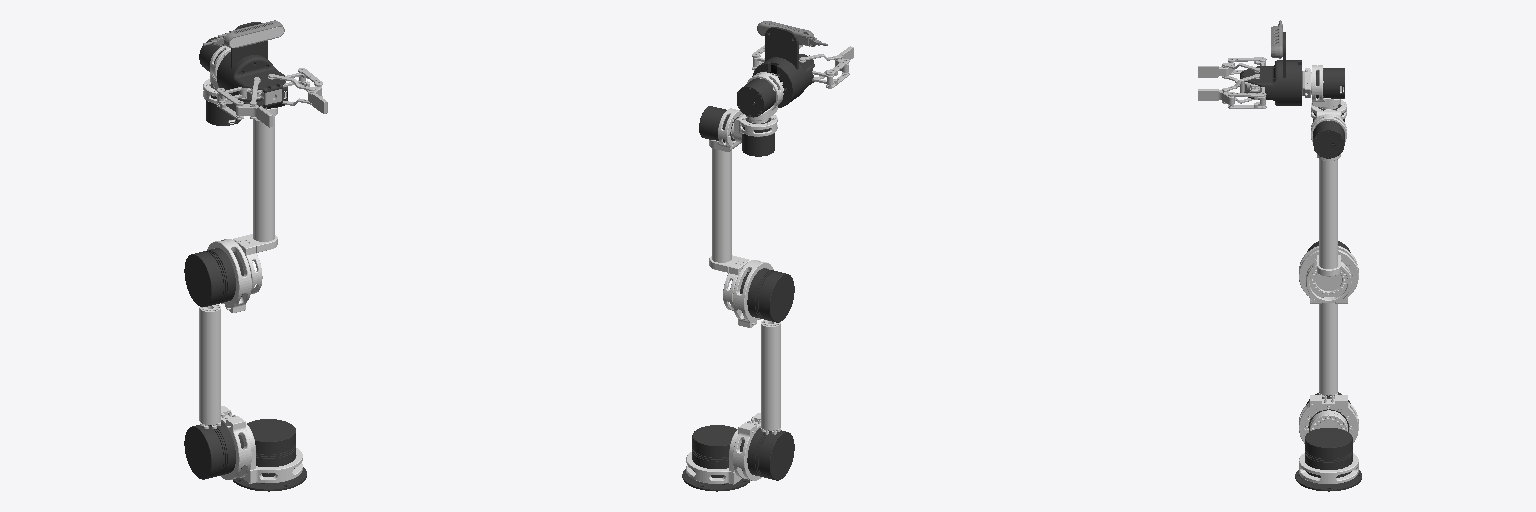
--- Facts derived from the render (not from the file) ---
Views: 3 orthographic renders of the robot side by side, from view 1: azimuth 30°, elevation 25°; view 2: azimuth 150°, elevation 25°; view 3: azimuth 270°, elevation 25°.
Robot: hephaestus_description — 7 links, 6 joints (6 revolute); root link link1; default pose: every joint at zero.
Links seen in each view (by area): view 1: link3, gripper, link4, link2, link5, link6, link1; view 2: link3, link4, gripper, link2, link6, link5; view 3: link3, gripper, link4, link2, link6, link1.
Boxes of the visible links, x1,y1,x2,y2 form: link3: [184, 239, 251, 479]; gripper: [203, 20, 327, 127]; link4: [233, 81, 287, 293]; link2: [242, 419, 302, 483]; link5: [203, 79, 240, 125]; link6: [199, 37, 230, 88]; link1: [233, 467, 306, 491]; link3: [733, 260, 794, 480]; link4: [699, 106, 749, 310]; gripper: [752, 21, 853, 107]; link2: [686, 425, 740, 484]; link6: [737, 72, 783, 122]; link5: [732, 114, 777, 156]; link3: [1299, 241, 1358, 443]; gripper: [1198, 20, 1311, 108]; link4: [1306, 114, 1351, 302]; link2: [1299, 413, 1358, 483]; link6: [1312, 65, 1344, 108]; link1: [1295, 470, 1361, 491].
Bounding box of the posed robot: 0.2129 × 0.2749 × 0.7786 m (x, y, z).
349 mesh visuals loaded from 108 distinct referenced files (107 binary STL); not drawn: 2 (reference not matched to a file when rendering).

The robot description file, URDF, robot "hephaestus_description":
<robot name="hephaestus_description">
<link name="link1">
<visual>
<origin xyz="1.3792584575397063074e-18 -1.7516230804060213387e-46 1.4171762190870562479e-48" rpy="2.8500753929115218458e-28 2.9400200094311407188e-31 -5.36636722058665712e-46" />
<geometry>
<mesh filename="package://hephaestus_description/meshes/base_link.stl"/>
</geometry>
<material name="base_link_material">
<color rgba="0.30196078431372547213 0.30196078431372547213 0.30196078431372547213 1.0"/>
</material>
</visual>
<collision>
<origin xyz="1.3792584575397063074e-18 -1.7516230804060213387e-46 1.4171762190870562479e-48" rpy="2.8500753929115218458e-28 2.9400200094311407188e-31 -5.36636722058665712e-46" />
<geometry>
<mesh filename="package://hephaestus_description/meshes/base_link.stl"/>
</geometry>
</collision>
<inertial>
<origin xyz="3.7446553870126242385e-18 4.3234757021271262883e-18 0.0015000000000000000312" rpy="0 0 0"/>
<mass value="0.037828410371921313005" />
<inertia ixx="3.4848197028295435087e-05" ixy="-1.3745190126530676617e-35"  ixz="6.0814558269547975846e-35" iyy="3.4848197028295421534e-05" iyz="-7.7315544456804418969e-21" izz="6.9639651441032968614e-05" />
</inertial>
</link>

<link name="link2">
<visual>
<origin xyz="-0.025678525939969124026 -0.044000000000000066835 -0.069343458848123457061" rpy="1.570796326794896558 1.570796326794896336 0" />
<geometry>
<mesh filename="package://hephaestus_description/meshes/m3_20mm.stl"/>
</geometry>
<material name="m3_20mm_material">
<color rgba="0.90196078431372550543 0.90196078431372550543 0.90196078431372550543 1.0"/>
</material>
</visual>
<collision>
<origin xyz="-0.025678525939969124026 -0.044000000000000066835 -0.069343458848123457061" rpy="1.570796326794896558 1.570796326794896336 0" />
<geometry>
<mesh filename="package://hephaestus_description/meshes/m3_20mm.stl"/>
</geometry>
</collision>
<visual>
<origin xyz="-0.005999999999999993186 -0.050000000000000065226 -0.012000000000000017597" rpy="-1.570796326794896558 -1.5707963267948945596 0" />
<geometry>
<mesh filename="package://hephaestus_description/meshes/m3_6mm.stl"/>
</geometry>
<material name="m3_6mm_material">
<color rgba="0.90196078431372550543 0.90196078431372550543 0.90196078431372550543 1.0"/>
</material>
</visual>
<collision>
<origin xyz="-0.005999999999999993186 -0.050000000000000065226 -0.012000000000000017597" rpy="-1.570796326794896558 -1.5707963267948945596 0" />
<geometry>
<mesh filename="package://hephaestus_description/meshes/m3_6mm.stl"/>
</geometry>
</collision>
<visual>
<origin xyz="-0.02599999999999997452 -0.044000000000000066835 -0.0070000000000000114214" rpy="3.141592653589793116 -1.9721522630525281998e-31 1.570796326794896558" />
<geometry>
<mesh filename="package://hephaestus_description/meshes/m3_25mm.stl"/>
</geometry>
<material name="m3_25mm_material">
<color rgba="0.90196078431372550543 0.90196078431372550543 0.90196078431372550543 1.0"/>
</material>
</visual>
<collision>
<origin xyz="-0.02599999999999997452 -0.044000000000000066835 -0.0070000000000000114214" rpy="3.141592653589793116 -1.9721522630525281998e-31 1.570796326794896558" />
<geometry>
<mesh filename="package://hephaestus_description/meshes/m3_25mm.stl"/>
</geometry>
</collision>
<visual>
<origin xyz="0.021843458848123570998 -0.044000000000000066835 -0.045129798188103177614" rpy="1.570796326794896558 1.5707963267948956698 0" />
<geometry>
<mesh filename="package://hephaestus_description/meshes/m3_20mm.stl"/>
</geometry>
<material name="m3_20mm_material">
<color rgba="0.90196078431372550543 0.90196078431372550543 0.90196078431372550543 1.0"/>
</material>
</visual>
<collision>
<origin xyz="0.021843458848123570998 -0.044000000000000066835 -0.045129798188103177614" rpy="1.570796326794896558 1.5707963267948956698 0" />
<geometry>
<mesh filename="package://hephaestus_description/meshes/m3_20mm.stl"/>
</geometry>
</collision>
<visual>
<origin xyz="3.6111186457260672245e-35 0 0.0030000000000000000625" rpy="3.141592653589793116 -0 5.4831461211725776723e-31" />
<geometry>
<mesh filename="package://hephaestus_description/meshes/flange.stl"/>
</geometry>
<material name="flange_material">
<color rgba="0.90196078431372550543 0.90196078431372550543 0.90196078431372550543 1.0"/>
</material>
</visual>
<collision>
<origin xyz="3.6111186457260672245e-35 0 0.0030000000000000000625" rpy="3.141592653589793116 -0 5.4831461211725776723e-31" />
<geometry>
<mesh filename="package://hephaestus_description/meshes/flange.stl"/>
</geometry>
</collision>
<visual>
<origin xyz="-3.6730150672984664819e-18 -2.7576208777793108542e-17 -0.01300000000000001675" rpy="0 -1.9721522630525281998e-31 1.570796326794896558" />
<geometry>
<mesh filename="package://hephaestus_description/meshes/me8010e17b50_bracket_asm_1.stl"/>
</geometry>
<material name="me8010e17b50_bracket_asm_1_material">
<color rgba="0.90196078431372550543 0.90196078431372550543 0.90196078431372550543 1.0"/>
</material>
</visual>
<collision>
<origin xyz="-3.6730150672984664819e-18 -2.7576208777793108542e-17 -0.01300000000000001675" rpy="0 -1.9721522630525281998e-31 1.570796326794896558" />
<geometry>
<mesh filename="package://hephaestus_description/meshes/me8010e17b50_bracket_asm_1.stl"/>
</geometry>
</collision>
<visual>
<origin xyz="0.025999999999999946765 -0.044000000000000059897 -0.0070000000000000114214" rpy="3.141592653589793116 -1.9721522630525281998e-31 1.570796326794896558" />
<geometry>
<mesh filename="package://hephaestus_description/meshes/m3_25mm.stl"/>
</geometry>
<material name="m3_25mm_material">
<color rgba="0.90196078431372550543 0.90196078431372550543 0.90196078431372550543 1.0"/>
</material>
</visual>
<collision>
<origin xyz="0.025999999999999946765 -0.044000000000000059897 -0.0070000000000000114214" rpy="3.141592653589793116 -1.9721522630525281998e-31 1.570796326794896558" />
<geometry>
<mesh filename="package://hephaestus_description/meshes/m3_25mm.stl"/>
</geometry>
</collision>
<visual>
<origin xyz="0.006000000000000002727 -0.050000000000000086042 -0.023999999999999990091" rpy="-1.570796326794896558 -1.5707963267948941155 0" />
<geometry>
<mesh filename="package://hephaestus_description/meshes/m3_6mm.stl"/>
</geometry>
<material name="m3_6mm_material">
<color rgba="0.90196078431372550543 0.90196078431372550543 0.90196078431372550543 1.0"/>
</material>
</visual>
<collision>
<origin xyz="0.006000000000000002727 -0.050000000000000086042 -0.023999999999999990091" rpy="-1.570796326794896558 -1.5707963267948941155 0" />
<geometry>
<mesh filename="package://hephaestus_description/meshes/m3_6mm.stl"/>
</geometry>
</collision>
<visual>
<origin xyz="0.03204293994002414131 -0.018500000000000044187 -0.0070000000000000166256" rpy="3.141592653589793116 -1.9721522630525281998e-31 1.570796326794896558" />
<geometry>
<mesh filename="package://hephaestus_description/meshes/m3_25mm.stl"/>
</geometry>
<material name="m3_25mm_material">
<color rgba="0.90196078431372550543 0.90196078431372550543 0.90196078431372550543 1.0"/>
</material>
</visual>
<collision>
<origin xyz="0.03204293994002414131 -0.018500000000000044187 -0.0070000000000000166256" rpy="3.141592653589793116 -1.9721522630525281998e-31 1.570796326794896558" />
<geometry>
<mesh filename="package://hephaestus_description/meshes/m3_25mm.stl"/>
</geometry>
</collision>
<visual>
<origin xyz="0.0083434588481235763546 -0.044000000000000080713 -0.035321474060030839948" rpy="1.570796326794896558 1.570796326794896336 0" />
<geometry>
<mesh filename="package://hephaestus_description/meshes/m3_20mm.stl"/>
</geometry>
<material name="m3_20mm_material">
<color rgba="0.90196078431372550543 0.90196078431372550543 0.90196078431372550543 1.0"/>
</material>
</visual>
<collision>
<origin xyz="0.0083434588481235763546 -0.044000000000000080713 -0.035321474060030839948" rpy="1.570796326794896558 1.570796326794896336 0" />
<geometry>
<mesh filename="package://hephaestus_description/meshes/m3_20mm.stl"/>
</geometry>
</collision>
<visual>
<origin xyz="4.0585504671770196153e-18 -1.3059426610188720037e-17 -0.069999999999999965028" rpy="0 -0 -1.570796326794896558" />
<geometry>
<mesh filename="package://hephaestus_description/meshes/base.stl"/>
</geometry>
<material name="base_material">
<color rgba="0.30196078431372547213 0.30196078431372547213 0.30196078431372547213 1.0"/>
</material>
</visual>
<collision>
<origin xyz="4.0585504671770196153e-18 -1.3059426610188720037e-17 -0.069999999999999965028" rpy="0 -0 -1.570796326794896558" />
<geometry>
<mesh filename="package://hephaestus_description/meshes/base.stl"/>
</geometry>
</collision>
<visual>
<origin xyz="-0.015870201811896765542 -0.044000000000000052958 -0.082843458848123427418" rpy="1.570796326794896558 1.5707963267948961139 0" />
<geometry>
<mesh filename="package://hephaestus_description/meshes/m3_20mm.stl"/>
</geometry>
<material name="m3_20mm_material">
<color rgba="0.90196078431372550543 0.90196078431372550543 0.90196078431372550543 1.0"/>
</material>
</visual>
<collision>
<origin xyz="-0.015870201811896765542 -0.044000000000000052958 -0.082843458848123427418" rpy="1.570796326794896558 1.5707963267948961139 0" />
<geometry>
<mesh filename="package://hephaestus_description/meshes/m3_20mm.stl"/>
</geometry>
</collision>
<visual>
<origin xyz="-0.025678525939969124026 -0.044000000000000066835 -0.052656541151876339046" rpy="1.570796326794896558 1.570796326794896336 0" />
<geometry>
<mesh filename="package://hephaestus_description/meshes/m3_20mm.stl"/>
</geometry>
<material name="m3_20mm_material">
<color rgba="0.90196078431372550543 0.90196078431372550543 0.90196078431372550543 1.0"/>
</material>
</visual>
<collision>
<origin xyz="-0.025678525939969124026 -0.044000000000000066835 -0.052656541151876339046" rpy="1.570796326794896558 1.570796326794896336 0" />
<geometry>
<mesh filename="package://hephaestus_description/meshes/m3_20mm.stl"/>
</geometry>
</collision>
<visual>
<origin xyz="0.032042939940024155188 0.018499999999999985206 -0.0070000000000000096867" rpy="3.141592653589793116 -1.9721522630525281998e-31 1.570796326794896558" />
<geometry>
<mesh filename="package://hephaestus_description/meshes/m3_25mm.stl"/>
</geometry>
<material name="m3_25mm_material">
<color rgba="0.90196078431372550543 0.90196078431372550543 0.90196078431372550543 1.0"/>
</material>
</visual>
<collision>
<origin xyz="0.032042939940024155188 0.018499999999999985206 -0.0070000000000000096867" rpy="3.141592653589793116 -1.9721522630525281998e-31 1.570796326794896558" />
<geometry>
<mesh filename="package://hephaestus_description/meshes/m3_25mm.stl"/>
</geometry>
</collision>
<visual>
<origin xyz="-0.032042939940024169065 0.018499999999999988676 -0.0070000000000000096867" rpy="3.141592653589793116 -1.9721522630525281998e-31 1.570796326794896558" />
<geometry>
<mesh filename="package://hephaestus_description/meshes/m3_25mm.stl"/>
</geometry>
<material name="m3_25mm_material">
<color rgba="0.90196078431372550543 0.90196078431372550543 0.90196078431372550543 1.0"/>
</material>
</visual>
<collision>
<origin xyz="-0.032042939940024169065 0.018499999999999988676 -0.0070000000000000096867" rpy="3.141592653589793116 -1.9721522630525281998e-31 1.570796326794896558" />
<geometry>
<mesh filename="package://hephaestus_description/meshes/m3_25mm.stl"/>
</geometry>
</collision>
<visual>
<origin xyz="0.025678525939969137903 -0.044000000000000046019 -0.052656541151876332107" rpy="1.570796326794896558 1.5707963267948956698 0" />
<geometry>
<mesh filename="package://hephaestus_description/meshes/m3_20mm.stl"/>
</geometry>
<material name="m3_20mm_material">
<color rgba="0.90196078431372550543 0.90196078431372550543 0.90196078431372550543 1.0"/>
</material>
</visual>
<collision>
<origin xyz="0.025678525939969137903 -0.044000000000000046019 -0.052656541151876332107" rpy="1.570796326794896558 1.5707963267948956698 0" />
<geometry>
<mesh filename="package://hephaestus_description/meshes/m3_20mm.stl"/>
</geometry>
</collision>
<visual>
<origin xyz="0.021843458848123567528 -0.044000000000000046019 -0.076870201811896646249" rpy="1.570796326794896558 1.570796326794896336 0" />
<geometry>
<mesh filename="package://hephaestus_description/meshes/m3_20mm.stl"/>
</geometry>
<material name="m3_20mm_material">
<color rgba="0.90196078431372550543 0.90196078431372550543 0.90196078431372550543 1.0"/>
</material>
</visual>
<collision>
<origin xyz="0.021843458848123567528 -0.044000000000000046019 -0.076870201811896646249" rpy="1.570796326794896558 1.570796326794896336 0" />
<geometry>
<mesh filename="package://hephaestus_description/meshes/m3_20mm.stl"/>
</geometry>
</collision>
<visual>
<origin xyz="-8.6880617938698343419e-19 0.03699999999999998429 -0.0070000000000000131561" rpy="3.141592653589793116 -1.9721522630525281998e-31 1.570796326794896558" />
<geometry>
<mesh filename="package://hephaestus_description/meshes/m3_25mm.stl"/>
</geometry>
<material name="m3_25mm_material">
<color rgba="0.90196078431372550543 0.90196078431372550543 0.90196078431372550543 1.0"/>
</material>
</visual>
<collision>
<origin xyz="-8.6880617938698343419e-19 0.03699999999999998429 -0.0070000000000000131561" rpy="3.141592653589793116 -1.9721522630525281998e-31 1.570796326794896558" />
<geometry>
<mesh filename="package://hephaestus_description/meshes/m3_25mm.stl"/>
</geometry>
</collision>
<visual>
<origin xyz="0.025678525939969130965 -0.044000000000000052958 -0.069343458848123457061" rpy="1.570796326794896558 1.570796326794896336 0" />
<geometry>
<mesh filename="package://hephaestus_description/meshes/m3_20mm.stl"/>
</geometry>
<material name="m3_20mm_material">
<color rgba="0.90196078431372550543 0.90196078431372550543 0.90196078431372550543 1.0"/>
</material>
</visual>
<collision>
<origin xyz="0.025678525939969130965 -0.044000000000000052958 -0.069343458848123457061" rpy="1.570796326794896558 1.570796326794896336 0" />
<geometry>
<mesh filename="package://hephaestus_description/meshes/m3_20mm.stl"/>
</geometry>
</collision>
<visual>
<origin xyz="0.018499999999999950512 -0.032042939940024280088 -0.0070000000000000166256" rpy="3.141592653589793116 -1.9721522630525281998e-31 1.570796326794896558" />
<geometry>
<mesh filename="package://hephaestus_description/meshes/m3_25mm.stl"/>
</geometry>
<material name="m3_25mm_material">
<color rgba="0.90196078431372550543 0.90196078431372550543 0.90196078431372550543 1.0"/>
</material>
</visual>
<collision>
<origin xyz="0.018499999999999950512 -0.032042939940024280088 -0.0070000000000000166256" rpy="3.141592653589793116 -1.9721522630525281998e-31 1.570796326794896558" />
<geometry>
<mesh filename="package://hephaestus_description/meshes/m3_25mm.stl"/>
</geometry>
</collision>
<visual>
<origin xyz="-0.018499999999999967859 0.032042939940024231515 -0.0070000000000000166256" rpy="3.141592653589793116 -1.9721522630525281998e-31 1.570796326794896558" />
<geometry>
<mesh filename="package://hephaestus_description/meshes/m3_25mm.stl"/>
</geometry>
<material name="m3_25mm_material">
<color rgba="0.90196078431372550543 0.90196078431372550543 0.90196078431372550543 1.0"/>
</material>
</visual>
<collision>
<origin xyz="-0.018499999999999967859 0.032042939940024231515 -0.0070000000000000166256" rpy="3.141592653589793116 -1.9721522630525281998e-31 1.570796326794896558" />
<geometry>
<mesh filename="package://hephaestus_description/meshes/m3_25mm.stl"/>
</geometry>
</collision>
<visual>
<origin xyz="0.018499999999999978267 0.03204293994002420376 -0.0070000000000000114214" rpy="3.141592653589793116 -1.9721522630525281998e-31 1.570796326794896558" />
<geometry>
<mesh filename="package://hephaestus_description/meshes/m3_25mm.stl"/>
</geometry>
<material name="m3_25mm_material">
<color rgba="0.90196078431372550543 0.90196078431372550543 0.90196078431372550543 1.0"/>
</material>
</visual>
<collision>
<origin xyz="0.018499999999999978267 0.03204293994002420376 -0.0070000000000000114214" rpy="3.141592653589793116 -1.9721522630525281998e-31 1.570796326794896558" />
<geometry>
<mesh filename="package://hephaestus_description/meshes/m3_25mm.stl"/>
</geometry>
</collision>
<visual>
<origin xyz="0.015870201811896765542 -0.044000000000000052958 -0.082843458848123427418" rpy="1.570796326794896558 1.5707963267948956698 0" />
<geometry>
<mesh filename="package://hephaestus_description/meshes/m3_20mm.stl"/>
</geometry>
<material name="m3_20mm_material">
<color rgba="0.90196078431372550543 0.90196078431372550543 0.90196078431372550543 1.0"/>
</material>
</visual>
<collision>
<origin xyz="0.015870201811896765542 -0.044000000000000052958 -0.082843458848123427418" rpy="1.570796326794896558 1.5707963267948956698 0" />
<geometry>
<mesh filename="package://hephaestus_description/meshes/m3_20mm.stl"/>
</geometry>
</collision>
<visual>
<origin xyz="0.03699999999999992184 -3.4273428214398684457e-17 -0.007000000000000020095" rpy="3.141592653589793116 -1.9721522630525281998e-31 1.570796326794896558" />
<geometry>
<mesh filename="package://hephaestus_description/meshes/m3_25mm.stl"/>
</geometry>
<material name="m3_25mm_material">
<color rgba="0.90196078431372550543 0.90196078431372550543 0.90196078431372550543 1.0"/>
</material>
</visual>
<collision>
<origin xyz="0.03699999999999992184 -3.4273428214398684457e-17 -0.007000000000000020095" rpy="3.141592653589793116 -1.9721522630525281998e-31 1.570796326794896558" />
<geometry>
<mesh filename="package://hephaestus_description/meshes/m3_25mm.stl"/>
</geometry>
</collision>
<visual>
<origin xyz="-0.0083434588481235746199 -0.044000000000000032141 -0.086678525939968997793" rpy="1.570796326794896558 1.570796326794896336 0" />
<geometry>
<mesh filename="package://hephaestus_description/meshes/m3_20mm.stl"/>
</geometry>
<material name="m3_20mm_material">
<color rgba="0.90196078431372550543 0.90196078431372550543 0.90196078431372550543 1.0"/>
</material>
</visual>
<collision>
<origin xyz="-0.0083434588481235746199 -0.044000000000000032141 -0.086678525939968997793" rpy="1.570796326794896558 1.570796326794896336 0" />
<geometry>
<mesh filename="package://hephaestus_description/meshes/m3_20mm.stl"/>
</geometry>
</collision>
<visual>
<origin xyz="0.0083434588481235763546 -0.044000000000000073774 -0.086678525939968970038" rpy="1.570796326794896558 1.570796326794896336 0" />
<geometry>
<mesh filename="package://hephaestus_description/meshes/m3_20mm.stl"/>
</geometry>
<material name="m3_20mm_material">
<color rgba="0.90196078431372550543 0.90196078431372550543 0.90196078431372550543 1.0"/>
</material>
</visual>
<collision>
<origin xyz="0.0083434588481235763546 -0.044000000000000073774 -0.086678525939968970038" rpy="1.570796326794896558 1.570796326794896336 0" />
<geometry>
<mesh filename="package://hephaestus_description/meshes/m3_20mm.stl"/>
</geometry>
</collision>
<visual>
<origin xyz="0.015870201811896769012 -0.044000000000000046019 -0.039156541151876389506" rpy="1.570796326794896558 1.570796326794896336 0" />
<geometry>
<mesh filename="package://hephaestus_description/meshes/m3_20mm.stl"/>
</geometry>
<material name="m3_20mm_material">
<color rgba="0.90196078431372550543 0.90196078431372550543 0.90196078431372550543 1.0"/>
</material>
</visual>
<collision>
<origin xyz="0.015870201811896769012 -0.044000000000000046019 -0.039156541151876389506" rpy="1.570796326794896558 1.570796326794896336 0" />
<geometry>
<mesh filename="package://hephaestus_description/meshes/m3_20mm.stl"/>
</geometry>
</collision>
<visual>
<origin xyz="-5.795420851161358003e-18 -0.037000000000000039801 -0.0070000000000000166256" rpy="3.141592653589793116 -1.9721522630525281998e-31 1.570796326794896558" />
<geometry>
<mesh filename="package://hephaestus_description/meshes/m3_25mm.stl"/>
</geometry>
<material name="m3_25mm_material">
<color rgba="0.90196078431372550543 0.90196078431372550543 0.90196078431372550543 1.0"/>
</material>
</visual>
<collision>
<origin xyz="-5.795420851161358003e-18 -0.037000000000000039801 -0.0070000000000000166256" rpy="3.141592653589793116 -1.9721522630525281998e-31 1.570796326794896558" />
<geometry>
<mesh filename="package://hephaestus_description/meshes/m3_25mm.stl"/>
</geometry>
</collision>
<visual>
<origin xyz="6.5317576732164899524e-18 -1.1760246269075127865e-16 -0.028999999999999970246" rpy="-3.141592653589793116 7.4940054162201813568e-16 1.570796326794896558" />
<geometry>
<mesh filename="package://hephaestus_description/meshes/me8010e17b50_bracket_asm_2.stl"/>
</geometry>
<material name="me8010e17b50_bracket_asm_2_material">
<color rgba="0.90196078431372550543 0.90196078431372550543 0.90196078431372550543 1.0"/>
</material>
</visual>
<collision>
<origin xyz="6.5317576732164899524e-18 -1.1760246269075127865e-16 -0.028999999999999970246" rpy="-3.141592653589793116 7.4940054162201813568e-16 1.570796326794896558" />
<geometry>
<mesh filename="package://hephaestus_description/meshes/me8010e17b50_bracket_asm_2.stl"/>
</geometry>
</collision>
<visual>
<origin xyz="-0.0083434588481235485991 -0.044000000000000046019 -0.035321474060030833009" rpy="1.570796326794896558 1.570796326794896336 0" />
<geometry>
<mesh filename="package://hephaestus_description/meshes/m3_20mm.stl"/>
</geometry>
<material name="m3_20mm_material">
<color rgba="0.90196078431372550543 0.90196078431372550543 0.90196078431372550543 1.0"/>
</material>
</visual>
<collision>
<origin xyz="-0.0083434588481235485991 -0.044000000000000046019 -0.035321474060030833009" rpy="1.570796326794896558 1.570796326794896336 0" />
<geometry>
<mesh filename="package://hephaestus_description/meshes/m3_20mm.stl"/>
</geometry>
</collision>
<visual>
<origin xyz="-0.0059999999999999975228 -0.050000000000000058287 -0.023999999999999990091" rpy="-1.570796326794896558 -1.5707963267948945596 0" />
<geometry>
<mesh filename="package://hephaestus_description/meshes/m3_6mm.stl"/>
</geometry>
<material name="m3_6mm_material">
<color rgba="0.90196078431372550543 0.90196078431372550543 0.90196078431372550543 1.0"/>
</material>
</visual>
<collision>
<origin xyz="-0.0059999999999999975228 -0.050000000000000058287 -0.023999999999999990091" rpy="-1.570796326794896558 -1.5707963267948945596 0" />
<geometry>
<mesh filename="package://hephaestus_description/meshes/m3_6mm.stl"/>
</geometry>
</collision>
<visual>
<origin xyz="-0.032042939940024196821 -0.01850000000000002337 -0.0070000000000000166256" rpy="3.141592653589793116 -1.9721522630525281998e-31 1.570796326794896558" />
<geometry>
<mesh filename="package://hephaestus_description/meshes/m3_25mm.stl"/>
</geometry>
<material name="m3_25mm_material">
<color rgba="0.90196078431372550543 0.90196078431372550543 0.90196078431372550543 1.0"/>
</material>
</visual>
<collision>
<origin xyz="-0.032042939940024196821 -0.01850000000000002337 -0.0070000000000000166256" rpy="3.141592653589793116 -1.9721522630525281998e-31 1.570796326794896558" />
<geometry>
<mesh filename="package://hephaestus_description/meshes/m3_25mm.stl"/>
</geometry>
</collision>
<visual>
<origin xyz="0.0060000000000000053291 -0.050000000000000079103 -0.012000000000000014128" rpy="-1.570796326794896558 -1.570796326794896558 0" />
<geometry>
<mesh filename="package://hephaestus_description/meshes/m3_6mm.stl"/>
</geometry>
<material name="m3_6mm_material">
<color rgba="0.90196078431372550543 0.90196078431372550543 0.90196078431372550543 1.0"/>
</material>
</visual>
<collision>
<origin xyz="0.0060000000000000053291 -0.050000000000000079103 -0.012000000000000014128" rpy="-1.570796326794896558 -1.570796326794896558 0" />
<geometry>
<mesh filename="package://hephaestus_description/meshes/m3_6mm.stl"/>
</geometry>
</collision>
<visual>
<origin xyz="-0.02184345884812355712 -0.044000000000000073774 -0.045129798188103177614" rpy="1.570796326794896558 1.570796326794896336 0" />
<geometry>
<mesh filename="package://hephaestus_description/meshes/m3_20mm.stl"/>
</geometry>
<material name="m3_20mm_material">
<color rgba="0.90196078431372550543 0.90196078431372550543 0.90196078431372550543 1.0"/>
</material>
</visual>
<collision>
<origin xyz="-0.02184345884812355712 -0.044000000000000073774 -0.045129798188103177614" rpy="1.570796326794896558 1.570796326794896336 0" />
<geometry>
<mesh filename="package://hephaestus_description/meshes/m3_20mm.stl"/>
</geometry>
</collision>
<visual>
<origin xyz="-0.015870201811896727379 -0.044000000000000052958 -0.039156541151876375628" rpy="1.570796326794896558 1.5707963267948956698 0" />
<geometry>
<mesh filename="package://hephaestus_description/meshes/m3_20mm.stl"/>
</geometry>
<material name="m3_20mm_material">
<color rgba="0.90196078431372550543 0.90196078431372550543 0.90196078431372550543 1.0"/>
</material>
</visual>
<collision>
<origin xyz="-0.015870201811896727379 -0.044000000000000052958 -0.039156541151876375628" rpy="1.570796326794896558 1.5707963267948956698 0" />
<geometry>
<mesh filename="package://hephaestus_description/meshes/m3_20mm.stl"/>
</geometry>
</collision>
<visual>
<origin xyz="-0.036999999999999949596 -2.34071203608801077e-17 -0.0070000000000000131561" rpy="3.141592653589793116 -1.9721522630525281998e-31 1.570796326794896558" />
<geometry>
<mesh filename="package://hephaestus_description/meshes/m3_25mm.stl"/>
</geometry>
<material name="m3_25mm_material">
<color rgba="0.90196078431372550543 0.90196078431372550543 0.90196078431372550543 1.0"/>
</material>
</visual>
<collision>
<origin xyz="-0.036999999999999949596 -2.34071203608801077e-17 -0.0070000000000000131561" rpy="3.141592653589793116 -1.9721522630525281998e-31 1.570796326794896558" />
<geometry>
<mesh filename="package://hephaestus_description/meshes/m3_25mm.stl"/>
</geometry>
</collision>
<visual>
<origin xyz="-0.018499999999999967859 -0.032042939940024273149 -0.0070000000000000148909" rpy="3.141592653589793116 -1.9721522630525281998e-31 1.570796326794896558" />
<geometry>
<mesh filename="package://hephaestus_description/meshes/m3_25mm.stl"/>
</geometry>
<material name="m3_25mm_material">
<color rgba="0.90196078431372550543 0.90196078431372550543 0.90196078431372550543 1.0"/>
</material>
</visual>
<collision>
<origin xyz="-0.018499999999999967859 -0.032042939940024273149 -0.0070000000000000148909" rpy="3.141592653589793116 -1.9721522630525281998e-31 1.570796326794896558" />
<geometry>
<mesh filename="package://hephaestus_description/meshes/m3_25mm.stl"/>
</geometry>
</collision>
<visual>
<origin xyz="-0.021843458848123553651 -0.044000000000000066835 -0.076870201811896674005" rpy="1.570796326794896558 1.570796326794896336 0" />
<geometry>
<mesh filename="package://hephaestus_description/meshes/m3_20mm.stl"/>
</geometry>
<material name="m3_20mm_material">
<color rgba="0.90196078431372550543 0.90196078431372550543 0.90196078431372550543 1.0"/>
</material>
</visual>
<collision>
<origin xyz="-0.021843458848123553651 -0.044000000000000066835 -0.076870201811896674005" rpy="1.570796326794896558 1.570796326794896336 0" />
<geometry>
<mesh filename="package://hephaestus_description/meshes/m3_20mm.stl"/>
</geometry>
</collision>
<inertial>
<origin xyz="2.9259016049205881931e-09 -0.0042002178500530461952 -0.035222400638815924701" rpy="0 0 0"/>
<mass value="1.130266391889907629" />
<inertia ixx="0.0011469860360081853782" ixy="3.2612334248657078202e-11"  ixz="-6.3231393693855868156e-11" iyy="0.00098877676302925611961" iyz="-5.1009579875747739777e-05" izz="0.0012092130494586210074" />
</inertial>
</link>

<link name="link3">
<visual>
<origin xyz="0.0060000000000354387908 0.22900000000004094858 -0.011999999999995410171" rpy="-1.5707963267950570962 -1.5707963267948443775 0" />
<geometry>
<mesh filename="package://hephaestus_description/meshes/m3_6mm.stl"/>
</geometry>
<material name="m3_6mm_material">
<color rgba="0.90196078431372550543 0.90196078431372550543 0.90196078431372550543 1.0"/>
</material>
</visual>
<collision>
<origin xyz="0.0060000000000354387908 0.22900000000004094858 -0.011999999999995410171" rpy="-1.5707963267950570962 -1.5707963267948443775 0" />
<geometry>
<mesh filename="package://hephaestus_description/meshes/m3_6mm.stl"/>
</geometry>
</collision>
<visual>
<origin xyz="0 0 0.0030000000000000026645" rpy="3.141592653589793116 -1.2871586807294816847e-31 0" />
<geometry>
<mesh filename="package://hephaestus_description/meshes/flange.stl"/>
</geometry>
<material name="flange_material">
<color rgba="0.90196078431372550543 0.90196078431372550543 0.90196078431372550543 1.0"/>
</material>
</visual>
<collision>
<origin xyz="0 0 0.0030000000000000026645" rpy="3.141592653589793116 -1.2871586807294816847e-31 0" />
<geometry>
<mesh filename="package://hephaestus_description/meshes/flange.stl"/>
</geometry>
</collision>
<visual>
<origin xyz="-0.018499999999996186162 0.032042939940032572066 -0.007000000000001720124" rpy="3.1415926535897304994 5.7226550920441656821e-14 1.570796326794712261" />
<geometry>
<mesh filename="package://hephaestus_description/meshes/m3_25mm.stl"/>
</geometry>
<material name="m3_25mm_material">
<color rgba="0.90196078431372550543 0.90196078431372550543 0.90196078431372550543 1.0"/>
</material>
</visual>
<collision>
<origin xyz="-0.018499999999996186162 0.032042939940032572066 -0.007000000000001720124" rpy="3.1415926535897304994 5.7226550920441656821e-14 1.570796326794712261" />
<geometry>
<mesh filename="package://hephaestus_description/meshes/m3_25mm.stl"/>
</geometry>
</collision>
<visual>
<origin xyz="4.2740471399854407668e-14 0.27900000000005037437 -0.01299999999999496697" rpy="-4.8072656966269423351e-14 -1.3617329402965800403e-13 1.5707963267947064878" />
<geometry>
<mesh filename="package://hephaestus_description/meshes/me8010e17b50_bracket_asm_1.stl"/>
</geometry>
<material name="me8010e17b50_bracket_asm_1_material">
<color rgba="0.90196078431372550543 0.90196078431372550543 0.90196078431372550543 1.0"/>
</material>
</visual>
<collision>
<origin xyz="4.2740471399854407668e-14 0.27900000000005037437 -0.01299999999999496697" rpy="-4.8072656966269423351e-14 -1.3617329402965800403e-13 1.5707963267947064878" />
<geometry>
<mesh filename="package://hephaestus_description/meshes/me8010e17b50_bracket_asm_1.stl"/>
</geometry>
</collision>
<visual>
<origin xyz="4.2019131745180243444e-14 0.27900000000005409362 -0.069999999999999812372" rpy="7.8825834748387297661e-15 1.3234628252857624897e-13 -1.5707963267950328934" />
<geometry>
<mesh filename="package://hephaestus_description/meshes/base.stl"/>
</geometry>
<material name="base_material">
<color rgba="0.30196078431372547213 0.30196078431372547213 0.30196078431372547213 1.0"/>
</material>
</visual>
<collision>
<origin xyz="4.2019131745180243444e-14 0.27900000000005409362 -0.069999999999999812372" rpy="7.8825834748387297661e-15 1.3234628252857624897e-13 -1.5707963267950328934" />
<geometry>
<mesh filename="package://hephaestus_description/meshes/base.stl"/>
</geometry>
</collision>
<visual>
<origin xyz="0.026000000000037500059 0.23500000000003945511 -0.006999999999993219979" rpy="3.1415926535897304994 5.6939008643900087402e-14 1.570796326794712483" />
<geometry>
<mesh filename="package://hephaestus_description/meshes/m3_25mm.stl"/>
</geometry>
<material name="m3_25mm_material">
<color rgba="0.90196078431372550543 0.90196078431372550543 0.90196078431372550543 1.0"/>
</material>
</visual>
<collision>
<origin xyz="0.026000000000037500059 0.23500000000003945511 -0.006999999999993219979" rpy="3.1415926535897304994 5.6939008643900087402e-14 1.570796326794712483" />
<geometry>
<mesh filename="package://hephaestus_description/meshes/m3_25mm.stl"/>
</geometry>
</collision>
<visual>
<origin xyz="0.032042939940028609958 0.018500000000000502154 -0.0069999999999978412824" rpy="3.1415926535897300553 5.7877379539212265831e-14 1.570796326794712483" />
<geometry>
<mesh filename="package://hephaestus_description/meshes/m3_25mm.stl"/>
</geometry>
<material name="m3_25mm_material">
<color rgba="0.90196078431372550543 0.90196078431372550543 0.90196078431372550543 1.0"/>
</material>
</visual>
<collision>
<origin xyz="0.032042939940028609958 0.018500000000000502154 -0.0069999999999978412824" rpy="3.1415926535897300553 5.7877379539212265831e-14 1.570796326794712483" />
<geometry>
<mesh filename="package://hephaestus_description/meshes/m3_25mm.stl"/>
</geometry>
</collision>
<visual>
<origin xyz="-0.0059999999999930083219 0.050000000000011313173 -0.024000000000001707468" rpy="1.5707963267950566522 1.5707963267948443775 0" />
<geometry>
<mesh filename="package://hephaestus_description/meshes/m3_6mm.stl"/>
</geometry>
<material name="m3_6mm_material">
<color rgba="0.90196078431372550543 0.90196078431372550543 0.90196078431372550543 1.0"/>
</material>
</visual>
<collision>
<origin xyz="-0.0059999999999930083219 0.050000000000011313173 -0.024000000000001707468" rpy="1.5707963267950566522 1.5707963267948443775 0" />
<geometry>
<mesh filename="package://hephaestus_description/meshes/m3_6mm.stl"/>
</geometry>
</collision>
<visual>
<origin xyz="-0.00599999999999284786 0.050000000000010522139 -0.012000000000000718425" rpy="1.5707963267950566522 1.5707963267948443775 0" />
<geometry>
<mesh filename="package://hephaestus_description/meshes/m3_6mm.stl"/>
</geometry>
<material name="m3_6mm_material">
<color rgba="0.90196078431372550543 0.90196078431372550543 0.90196078431372550543 1.0"/>
</material>
</visual>
<collision>
<origin xyz="-0.00599999999999284786 0.050000000000010522139 -0.012000000000000718425" rpy="1.5707963267950566522 1.5707963267948443775 0" />
<geometry>
<mesh filename="package://hephaestus_description/meshes/m3_6mm.stl"/>
</geometry>
</collision>
<visual>
<origin xyz="-5.8246591477463092186e-15 -0.037000000000005917045 -0.0070000000000016299184" rpy="3.1415926535897300553 5.7010285109476116487e-14 1.5707963267947127051" />
<geometry>
<mesh filename="package://hephaestus_description/meshes/m3_25mm.stl"/>
</geometry>
<material name="m3_25mm_material">
<color rgba="0.90196078431372550543 0.90196078431372550543 0.90196078431372550543 1.0"/>
</material>
</visual>
<collision>
<origin xyz="-5.8246591477463092186e-15 -0.037000000000005917045 -0.0070000000000016299184" rpy="3.1415926535897300553 5.7010285109476116487e-14 1.5707963267947127051" />
<geometry>
<mesh filename="package://hephaestus_description/meshes/m3_25mm.stl"/>
</geometry>
</collision>
<visual>
<origin xyz="-0.036999999999959024 0.2790000000000539826 -0.0069999999999974665821" rpy="3.1415926535897304994 5.6939008643900087402e-14 1.570796326794712483" />
<geometry>
<mesh filename="package://hephaestus_description/meshes/m3_25mm.stl"/>
</geometry>
<material name="m3_25mm_material">
<color rgba="0.90196078431372550543 0.90196078431372550543 0.90196078431372550543 1.0"/>
</material>
</visual>
<collision>
<origin xyz="-0.036999999999959024 0.2790000000000539826 -0.0069999999999974665821" rpy="3.1415926535897304994 5.6939008643900087402e-14 1.570796326794712483" />
<geometry>
<mesh filename="package://hephaestus_description/meshes/m3_25mm.stl"/>
</geometry>
</collision>
<visual>
<origin xyz="0.012000000000006325052 0.04002500000000877578 -0.049000000000003714196" rpy="-1.5707963267950575403 -1.5707963267948445996 0" />
<geometry>
<mesh filename="package://hephaestus_description/meshes/m4_8mm.stl"/>
</geometry>
<material name="m4_8mm_material">
<color rgba="0.90196078431372550543 0.90196078431372550543 0.90196078431372550543 1.0"/>
</material>
</visual>
<collision>
<origin xyz="0.012000000000006325052 0.04002500000000877578 -0.049000000000003714196" rpy="-1.5707963267950575403 -1.5707963267948445996 0" />
<geometry>
<mesh filename="package://hephaestus_description/meshes/m4_8mm.stl"/>
</geometry>
</collision>
<visual>
<origin xyz="0.018500000000005754897 0.032042939940028589141 -0.0069999999999986670107" rpy="3.1415926535897304994 5.7226550920441656821e-14 1.570796326794712261" />
<geometry>
<mesh filename="package://hephaestus_description/meshes/m3_25mm.stl"/>
</geometry>
<material name="m3_25mm_material">
<color rgba="0.90196078431372550543 0.90196078431372550543 0.90196078431372550543 1.0"/>
</material>
</visual>
<collision>
<origin xyz="0.018500000000005754897 0.032042939940028589141 -0.0069999999999986670107" rpy="3.1415926535897304994 5.7226550920441656821e-14 1.570796326794712261" />
<geometry>
<mesh filename="package://hephaestus_description/meshes/m3_25mm.stl"/>
</geometry>
</collision>
<visual>
<origin xyz="-0.0059999999999655840785 0.22900000000004300249 -0.023999999999997571887" rpy="-1.5707963267950570962 -1.5707963267948443775 0" />
<geometry>
<mesh filename="package://hephaestus_description/meshes/m3_6mm.stl"/>
</geometry>
<material name="m3_6mm_material">
<color rgba="0.90196078431372550543 0.90196078431372550543 0.90196078431372550543 1.0"/>
</material>
</visual>
<collision>
<origin xyz="-0.0059999999999655840785 0.22900000000004300249 -0.023999999999997571887" rpy="-1.5707963267950570962 -1.5707963267948443775 0" />
<geometry>
<mesh filename="package://hephaestus_description/meshes/m3_6mm.stl"/>
</geometry>
</collision>
<visual>
<origin xyz="-0.037000000000002100653 4.593547764386585186e-15 -0.00700000000000387812" rpy="3.1415926535897300553 5.7010285109476116487e-14 1.5707963267947127051" />
<geometry>
<mesh filename="package://hephaestus_description/meshes/m3_25mm.stl"/>
</geometry>
<material name="m3_25mm_material">
<color rgba="0.90196078431372550543 0.90196078431372550543 0.90196078431372550543 1.0"/>
</material>
</visual>
<collision>
<origin xyz="-0.037000000000002100653 4.593547764386585186e-15 -0.00700000000000387812" rpy="3.1415926535897300553 5.7010285109476116487e-14 1.5707963267947127051" />
<geometry>
<mesh filename="package://hephaestus_description/meshes/m3_25mm.stl"/>
</geometry>
</collision>
<visual>
<origin xyz="0.032042939940071603344 0.29750000000005000222 -0.0069999999999914505611" rpy="3.1415926535897304994 5.7680404949993750407e-14 1.570796326794712483" />
<geometry>
<mesh filename="package://hephaestus_description/meshes/m3_25mm.stl"/>
</geometry>
<material name="m3_25mm_material">
<color rgba="0.90196078431372550543 0.90196078431372550543 0.90196078431372550543 1.0"/>
</material>
</visual>
<collision>
<origin xyz="0.032042939940071603344 0.29750000000005000222 -0.0069999999999914505611" rpy="3.1415926535897304994 5.7680404949993750407e-14 1.570796326794712483" />
<geometry>
<mesh filename="package://hephaestus_description/meshes/m3_25mm.stl"/>
</geometry>
</collision>
<visual>
<origin xyz="0.0060000000000059727778 0.040025000000008706391 -0.038607695154589706521" rpy="-1.5707963267950575403 -1.5707963267948445996 0" />
<geometry>
<mesh filename="package://hephaestus_description/meshes/m4_8mm.stl"/>
</geometry>
<material name="m4_8mm_material">
<color rgba="0.90196078431372550543 0.90196078431372550543 0.90196078431372550543 1.0"/>
</material>
</visual>
<collision>
<origin xyz="0.0060000000000059727778 0.040025000000008706391 -0.038607695154589706521" rpy="-1.5707963267950575403 -1.5707963267948445996 0" />
<geometry>
<mesh filename="package://hephaestus_description/meshes/m4_8mm.stl"/>
</geometry>
</collision>
<visual>
<origin xyz="-0.0059999999999950232032 0.040025000000010024781 -0.038607695154590677966" rpy="-1.5707963267950575403 -1.5707963267948445996 0" />
<geometry>
<mesh filename="package://hephaestus_description/meshes/m4_8mm.stl"/>
</geometry>
<material name="m4_8mm_material">
<color rgba="0.90196078431372550543 0.90196078431372550543 0.90196078431372550543 1.0"/>
</material>
</visual>
<collision>
<origin xyz="-0.0059999999999950232032 0.040025000000010024781 -0.038607695154590677966" rpy="-1.5707963267950575403 -1.5707963267948445996 0" />
<geometry>
<mesh filename="package://hephaestus_description/meshes/m4_8mm.stl"/>
</geometry>
</collision>
<visual>
<origin xyz="-2.073202720608189815e-16 1.0824674490095276269e-15 -0.013000000000001350753" rpy="7.7160500211449578628e-15 1.3322921617288480574e-13 -1.5707963267950328934" />
<geometry>
<mesh filename="package://hephaestus_description/meshes/me8010e17b50_bracket_asm_1.stl"/>
</geometry>
<material name="me8010e17b50_bracket_asm_1_material">
<color rgba="0.90196078431372550543 0.90196078431372550543 0.90196078431372550543 1.0"/>
</material>
</visual>
<collision>
<origin xyz="-2.073202720608189815e-16 1.0824674490095276269e-15 -0.013000000000001350753" rpy="7.7160500211449578628e-15 1.3322921617288480574e-13 -1.5707963267950328934" />
<geometry>
<mesh filename="package://hephaestus_description/meshes/me8010e17b50_bracket_asm_1.stl"/>
</geometry>
</collision>
<visual>
<origin xyz="0.0060000000000076545922 0.050000000000010036416 -0.024000000000000736022" rpy="1.5707963267950566522 1.5707963267948443775 0" />
<geometry>
<mesh filename="package://hephaestus_description/meshes/m3_6mm.stl"/>
</geometry>
<material name="m3_6mm_material">
<color rgba="0.90196078431372550543 0.90196078431372550543 0.90196078431372550543 1.0"/>
</material>
</visual>
<collision>
<origin xyz="0.0060000000000076545922 0.050000000000010036416 -0.024000000000000736022" rpy="1.5707963267950566522 1.5707963267948443775 0" />
<geometry>
<mesh filename="package://hephaestus_description/meshes/m3_6mm.stl"/>
</geometry>
</collision>
<visual>
<origin xyz="0.032042939940022940881 -0.018500000000006039391 -0.006999999999998583744" rpy="3.1415926535897300553 5.7877379539212265831e-14 1.570796326794712483" />
<geometry>
<mesh filename="package://hephaestus_description/meshes/m3_25mm.stl"/>
</geometry>
<material name="m3_25mm_material">
<color rgba="0.90196078431372550543 0.90196078431372550543 0.90196078431372550543 1.0"/>
</material>
</visual>
<collision>
<origin xyz="0.032042939940022940881 -0.018500000000006039391 -0.006999999999998583744" rpy="3.1415926535897300553 5.7877379539212265831e-14 1.570796326794712483" />
<geometry>
<mesh filename="package://hephaestus_description/meshes/m3_25mm.stl"/>
</geometry>
</collision>
<visual>
<origin xyz="0.018499999999995880851 -0.032042939940031239798 -0.006999999999999957645" rpy="3.1415926535897300553 5.7010285109476116487e-14 1.5707963267947127051" />
<geometry>
<mesh filename="package://hephaestus_description/meshes/m3_25mm.stl"/>
</geometry>
<material name="m3_25mm_material">
<color rgba="0.90196078431372550543 0.90196078431372550543 0.90196078431372550543 1.0"/>
</material>
</visual>
<collision>
<origin xyz="0.018499999999995880851 -0.032042939940031239798 -0.006999999999999957645" rpy="3.1415926535897300553 5.7010285109476116487e-14 1.5707963267947127051" />
<geometry>
<mesh filename="package://hephaestus_description/meshes/m3_25mm.stl"/>
</geometry>
</collision>
<visual>
<origin xyz="4.8587459908183546085e-14 0.31600000000005679102 -0.0069999999999936501904" rpy="3.1415926535897304994 5.6939008643900087402e-14 1.570796326794712483" />
<geometry>
<mesh filename="package://hephaestus_description/meshes/m3_25mm.stl"/>
</geometry>
<material name="m3_25mm_material">
<color rgba="0.90196078431372550543 0.90196078431372550543 0.90196078431372550543 1.0"/>
</material>
</visual>
<collision>
<origin xyz="4.8587459908183546085e-14 0.31600000000005679102 -0.0069999999999936501904" rpy="3.1415926535897304994 5.6939008643900087402e-14 1.570796326794712483" />
<geometry>
<mesh filename="package://hephaestus_description/meshes/m3_25mm.stl"/>
</geometry>
</collision>
<visual>
<origin xyz="-0.0059999999999949728963 0.040025000000011898282 -0.05939230484541829086" rpy="-1.5707963267950564301 -1.5707963267948443775 0" />
<geometry>
<mesh filename="package://hephaestus_description/meshes/m4_8mm.stl"/>
</geometry>
<material name="m4_8mm_material">
<color rgba="0.90196078431372550543 0.90196078431372550543 0.90196078431372550543 1.0"/>
</material>
</visual>
<collision>
<origin xyz="-0.0059999999999949728963 0.040025000000011898282 -0.05939230484541829086" rpy="-1.5707963267950564301 -1.5707963267948443775 0" />
<geometry>
<mesh filename="package://hephaestus_description/meshes/m4_8mm.stl"/>
</geometry>
</collision>
<visual>
<origin xyz="0.032042939940065968962 0.26050000000004341905 -0.0069999999999921999616" rpy="3.1415926535897304994 5.6939008643900087402e-14 1.570796326794712483" />
<geometry>
<mesh filename="package://hephaestus_description/meshes/m3_25mm.stl"/>
</geometry>
<material name="m3_25mm_material">
<color rgba="0.90196078431372550543 0.90196078431372550543 0.90196078431372550543 1.0"/>
</material>
</visual>
<collision>
<origin xyz="0.032042939940065968962 0.26050000000004341905 -0.0069999999999921999616" rpy="3.1415926535897304994 5.6939008643900087402e-14 1.570796326794712483" />
<geometry>
<mesh filename="package://hephaestus_description/meshes/m3_25mm.stl"/>
</geometry>
</collision>
<visual>
<origin xyz="0.026000000000008013229 0.044000000000005756728 -0.0069999999999977857712" rpy="3.1415926535897300553 5.7877379539212265831e-14 1.570796326794712483" />
<geometry>
<mesh filename="package://hephaestus_description/meshes/m3_25mm.stl"/>
</geometry>
<material name="m3_25mm_material">
<color rgba="0.90196078431372550543 0.90196078431372550543 0.90196078431372550543 1.0"/>
</material>
</visual>
<collision>
<origin xyz="0.026000000000008013229 0.044000000000005756728 -0.0069999999999977857712" rpy="3.1415926535897300553 5.7877379539212265831e-14 1.570796326794712483" />
<geometry>
<mesh filename="package://hephaestus_description/meshes/m3_25mm.stl"/>
</geometry>
</collision>
<visual>
<origin xyz="0.0060000000000352488386 0.22900000000004167022 -0.023999999999996628197" rpy="-1.5707963267950570962 -1.5707963267948443775 0" />
<geometry>
<mesh filename="package://hephaestus_description/meshes/m3_6mm.stl"/>
</geometry>
<material name="m3_6mm_material">
<color rgba="0.90196078431372550543 0.90196078431372550543 0.90196078431372550543 1.0"/>
</material>
</visual>
<collision>
<origin xyz="0.0060000000000352488386 0.22900000000004167022 -0.023999999999996628197" rpy="-1.5707963267950570962 -1.5707963267948443775 0" />
<geometry>
<mesh filename="package://hephaestus_description/meshes/m3_6mm.stl"/>
</geometry>
</collision>
<visual>
<origin xyz="5.5581362328973787368e-15 0.037000000000007235434 -0.0070000000000000825451" rpy="3.1415926535897300553 5.7877379539212265831e-14 1.570796326794712483" />
<geometry>
<mesh filename="package://hephaestus_description/meshes/m3_25mm.stl"/>
</geometry>
<material name="m3_25mm_material">
<color rgba="0.90196078431372550543 0.90196078431372550543 0.90196078431372550543 1.0"/>
</material>
</visual>
<collision>
<origin xyz="5.5581362328973787368e-15 0.037000000000007235434 -0.0070000000000000825451" rpy="3.1415926535897300553 5.7877379539212265831e-14 1.570796326794712483" />
<geometry>
<mesh filename="package://hephaestus_description/meshes/m3_25mm.stl"/>
</geometry>
</collision>
<visual>
<origin xyz="-0.018500000000006060208 -0.032042939940027305445 -0.007000000000003031575" rpy="3.1415926535897300553 5.7010285109476116487e-14 1.5707963267947127051" />
<geometry>
<mesh filename="package://hephaestus_description/meshes/m3_25mm.stl"/>
</geometry>
<material name="m3_25mm_material">
<color rgba="0.90196078431372550543 0.90196078431372550543 0.90196078431372550543 1.0"/>
</material>
</visual>
<collision>
<origin xyz="-0.018500000000006060208 -0.032042939940027305445 -0.007000000000003031575" rpy="3.1415926535897300553 5.7010285109476116487e-14 1.5707963267947127051" />
<geometry>
<mesh filename="package://hephaestus_description/meshes/m3_25mm.stl"/>
</geometry>
</collision>
<visual>
<origin xyz="3.7163031164116408449e-14 0.24200000000004356915 -0.0069999999999952045027" rpy="3.1415926535897304994 5.6939008643900087402e-14 1.570796326794712483" />
<geometry>
<mesh filename="package://hephaestus_description/meshes/m3_25mm.stl"/>
</geometry>
<material name="m3_25mm_material">
<color rgba="0.90196078431372550543 0.90196078431372550543 0.90196078431372550543 1.0"/>
</material>
</visual>
<collision>
<origin xyz="3.7163031164116408449e-14 0.24200000000004356915 -0.0069999999999952045027" rpy="3.1415926535897304994 5.6939008643900087402e-14 1.570796326794712483" />
<geometry>
<mesh filename="package://hephaestus_description/meshes/m3_25mm.stl"/>
</geometry>
</collision>
<visual>
<origin xyz="0.0060000000000056969568 0.040025000000010108048 -0.059392304845418707193" rpy="-1.5707963267950575403 -1.5707963267948445996 0" />
<geometry>
<mesh filename="package://hephaestus_description/meshes/m4_8mm.stl"/>
</geometry>
<material name="m4_8mm_material">
<color rgba="0.90196078431372550543 0.90196078431372550543 0.90196078431372550543 1.0"/>
</material>
</visual>
<collision>
<origin xyz="0.0060000000000056969568 0.040025000000010108048 -0.059392304845418707193" rpy="-1.5707963267950575403 -1.5707963267948445996 0" />
<geometry>
<mesh filename="package://hephaestus_description/meshes/m4_8mm.stl"/>
</geometry>
</collision>
<visual>
<origin xyz="0.037000000000001809219 -3.2751579226442117942e-15 -0.0069999999999978065879" rpy="3.1415926535897300553 5.7010285109476116487e-14 1.5707963267947127051" />
<geometry>
<mesh filename="package://hephaestus_description/meshes/m3_25mm.stl"/>
</geometry>
<material name="m3_25mm_material">
<color rgba="0.90196078431372550543 0.90196078431372550543 0.90196078431372550543 1.0"/>
</material>
</visual>
<collision>
<origin xyz="0.037000000000001809219 -3.2751579226442117942e-15 -0.0069999999999978065879" rpy="3.1415926535897300553 5.7010285109476116487e-14 1.5707963267947127051" />
<geometry>
<mesh filename="package://hephaestus_description/meshes/m3_25mm.stl"/>
</geometry>
</collision>
<visual>
<origin xyz="-0.0059999999999653611665 0.22900000000004228085 -0.011999999999996388556" rpy="-1.5707963267950570962 -1.5707963267948443775 0" />
<geometry>
<mesh filename="package://hephaestus_description/meshes/m3_6mm.stl"/>
</geometry>
<material name="m3_6mm_material">
<color rgba="0.90196078431372550543 0.90196078431372550543 0.90196078431372550543 1.0"/>
</material>
</visual>
<collision>
<origin xyz="-0.0059999999999653611665 0.22900000000004228085 -0.011999999999996388556" rpy="-1.5707963267950570962 -1.5707963267948443775 0" />
<geometry>
<mesh filename="package://hephaestus_description/meshes/m3_6mm.stl"/>
</geometry>
</collision>
<visual>
<origin xyz="0.03700000000004477485 0.2790000000000460445 -0.0069999999999913950499" rpy="3.1415926535897304994 5.6939008643900087402e-14 1.570796326794712483" />
<geometry>
<mesh filename="package://hephaestus_description/meshes/m3_25mm.stl"/>
</geometry>
<material name="m3_25mm_material">
<color rgba="0.90196078431372550543 0.90196078431372550543 0.90196078431372550543 1.0"/>
</material>
</visual>
<collision>
<origin xyz="0.03700000000004477485 0.2790000000000460445 -0.0069999999999913950499" rpy="3.1415926535897304994 5.6939008643900087402e-14 1.570796326794712483" />
<geometry>
<mesh filename="package://hephaestus_description/meshes/m3_25mm.stl"/>
</geometry>
</collision>
<visual>
<origin xyz="-0.018499999999953175428 0.31104293994008197499 -0.0069999999999953016472" rpy="3.1415926535897304994 5.76883245572799983e-14 1.570796326794712483" />
<geometry>
<mesh filename="package://hephaestus_description/meshes/m3_25mm.stl"/>
</geometry>
<material name="m3_25mm_material">
<color rgba="0.90196078431372550543 0.90196078431372550543 0.90196078431372550543 1.0"/>
</material>
</visual>
<collision>
<origin xyz="-0.018499999999953175428 0.31104293994008197499 -0.0069999999999953016472" rpy="3.1415926535897304994 5.76883245572799983e-14 1.570796326794712483" />
<geometry>
<mesh filename="package://hephaestus_description/meshes/m3_25mm.stl"/>
</geometry>
</collision>
<visual>
<origin xyz="0.018500000000038863829 0.24695706006001832966 -0.0069999999999935669237" rpy="3.1415926535897304994 5.6939008643900087402e-14 1.570796326794712483" />
<geometry>
<mesh filename="package://hephaestus_description/meshes/m3_25mm.stl"/>
</geometry>
<material name="m3_25mm_material">
<color rgba="0.90196078431372550543 0.90196078431372550543 0.90196078431372550543 1.0"/>
</material>
</visual>
<collision>
<origin xyz="0.018500000000038863829 0.24695706006001832966 -0.0069999999999935669237" rpy="3.1415926535897304994 5.6939008643900087402e-14 1.570796326794712483" />
<geometry>
<mesh filename="package://hephaestus_description/meshes/m3_25mm.stl"/>
</geometry>
</collision>
<visual>
<origin xyz="-0.011999999999995184657 0.040025000000011815016 -0.049000000000004657885" rpy="-1.5707963267950564301 -1.5707963267948443775 0" />
<geometry>
<mesh filename="package://hephaestus_description/meshes/m4_8mm.stl"/>
</geometry>
<material name="m4_8mm_material">
<color rgba="0.90196078431372550543 0.90196078431372550543 0.90196078431372550543 1.0"/>
</material>
</visual>
<collision>
<origin xyz="-0.011999999999995184657 0.040025000000011815016 -0.049000000000004657885" rpy="-1.5707963267950564301 -1.5707963267948443775 0" />
<geometry>
<mesh filename="package://hephaestus_description/meshes/m4_8mm.stl"/>
</geometry>
</collision>
<visual>
<origin xyz="0.0060000000000078271972 0.050000000000009245382 -0.01199999999999974698" rpy="1.5707963267950566522 1.5707963267948443775 0" />
<geometry>
<mesh filename="package://hephaestus_description/meshes/m3_6mm.stl"/>
</geometry>
<material name="m3_6mm_material">
<color rgba="0.90196078431372550543 0.90196078431372550543 0.90196078431372550543 1.0"/>
</material>
</visual>
<collision>
<origin xyz="0.0060000000000078271972 0.050000000000009245382 -0.01199999999999974698" rpy="1.5707963267950566522 1.5707963267948443775 0" />
<geometry>
<mesh filename="package://hephaestus_description/meshes/m3_6mm.stl"/>
</geometry>
</collision>
<visual>
<origin xyz="4.2468966359182447613e-14 0.27900000000005142908 -0.028999999999996549371" rpy="3.1415926535897398253 5.7853620717353597884e-14 1.570796326794712261" />
<geometry>
<mesh filename="package://hephaestus_description/meshes/me8010e17b50_bracket_asm_3.stl"/>
</geometry>
<material name="me8010e17b50_bracket_asm_3_material">
<color rgba="0.90196078431372550543 0.90196078431372550543 0.90196078431372550543 1.0"/>
</material>
</visual>
<collision>
<origin xyz="4.2468966359182447613e-14 0.27900000000005142908 -0.028999999999996549371" rpy="3.1415926535897398253 5.7853620717353597884e-14 1.570796326794712261" />
<geometry>
<mesh filename="package://hephaestus_description/meshes/me8010e17b50_bracket_asm_3.stl"/>
</geometry>
</collision>
<visual>
<origin xyz="4.297381252405490321e-14 0.2790000000000495417 0.0030000000000063864469" rpy="3.141592653589793116 4.4408920985006202452e-16 -5.5511151231232583472e-17" />
<geometry>
<mesh filename="package://hephaestus_description/meshes/flange.stl"/>
</geometry>
<material name="flange_material">
<color rgba="0.90196078431372550543 0.90196078431372550543 0.90196078431372550543 1.0"/>
</material>
</visual>
<collision>
<origin xyz="4.297381252405490321e-14 0.2790000000000495417 0.0030000000000063864469" rpy="3.141592653589793116 4.4408920985006202452e-16 -5.5511151231232583472e-17" />
<geometry>
<mesh filename="package://hephaestus_description/meshes/flange.stl"/>
</geometry>
</collision>
<visual>
<origin xyz="-0.032042939940023232315 0.018500000000007343903 -0.0070000000000031009639" rpy="3.1415926535897304994 5.7226550920441656821e-14 1.570796326794712261" />
<geometry>
<mesh filename="package://hephaestus_description/meshes/m3_25mm.stl"/>
</geometry>
<material name="m3_25mm_material">
<color rgba="0.90196078431372550543 0.90196078431372550543 0.90196078431372550543 1.0"/>
</material>
</visual>
<collision>
<origin xyz="-0.032042939940023232315 0.018500000000007343903 -0.0070000000000031009639" rpy="3.1415926535897304994 5.7226550920441656821e-14 1.570796326794712261" />
<geometry>
<mesh filename="package://hephaestus_description/meshes/m3_25mm.stl"/>
</geometry>
</collision>
<visual>
<origin xyz="-0.032042939939980231989 0.29750000000005694112 -0.0069999999999966547315" rpy="3.1415926535897304994 5.7680404949993750407e-14 1.570796326794712483" />
<geometry>
<mesh filename="package://hephaestus_description/meshes/m3_25mm.stl"/>
</geometry>
<material name="m3_25mm_material">
<color rgba="0.90196078431372550543 0.90196078431372550543 0.90196078431372550543 1.0"/>
</material>
</visual>
<collision>
<origin xyz="-0.032042939939980231989 0.29750000000005694112 -0.0069999999999966547315" rpy="3.1415926535897304994 5.7680404949993750407e-14 1.570796326794712483" />
<geometry>
<mesh filename="package://hephaestus_description/meshes/m3_25mm.stl"/>
</geometry>
</collision>
<visual>
<origin xyz="-0.018499999999963066821 0.24695706006002227095 -0.0069999999999966339148" rpy="3.1415926535897304994 5.6939008643900087402e-14 1.570796326794712483" />
<geometry>
<mesh filename="package://hephaestus_description/meshes/m3_25mm.stl"/>
</geometry>
<material name="m3_25mm_material">
<color rgba="0.90196078431372550543 0.90196078431372550543 0.90196078431372550543 1.0"/>
</material>
</visual>
<collision>
<origin xyz="-0.018499999999963066821 0.24695706006002227095 -0.0069999999999966339148" rpy="3.1415926535897304994 5.6939008643900087402e-14 1.570796326794712483" />
<geometry>
<mesh filename="package://hephaestus_description/meshes/m3_25mm.stl"/>
</geometry>
</collision>
<visual>
<origin xyz="-9.7029329015842736406e-16 4.7878367936959875806e-15 -0.070000000000006168399" rpy="7.5495165674511859595e-15 1.3254670912496925565e-13 -1.5707963267950324493" />
<geometry>
<mesh filename="package://hephaestus_description/meshes/base.stl"/>
</geometry>
<material name="base_material">
<color rgba="0.30196078431372547213 0.30196078431372547213 0.30196078431372547213 1.0"/>
</material>
</visual>
<collision>
<origin xyz="-9.7029329015842736406e-16 4.7878367936959875806e-15 -0.070000000000006168399" rpy="7.5495165674511859595e-15 1.3254670912496925565e-13 -1.5707963267950324493" />
<geometry>
<mesh filename="package://hephaestus_description/meshes/base.stl"/>
</geometry>
</collision>
<visual>
<origin xyz="6.6996458551049380928e-15 0.048000000000011991408 -0.049000000000003450518" rpy="-1.5707963267950564301 -1.5707963267948443775 0" />
<geometry>
<mesh filename="package://hephaestus_description/meshes/aluminum_tube_11_32_183.stl"/>
</geometry>
<material name="aluminum_tube_11_32_183_material">
<color rgba="0.90196078431372550543 0.90196078431372550543 0.90196078431372550543 1.0"/>
</material>
</visual>
<collision>
<origin xyz="6.6996458551049380928e-15 0.048000000000011991408 -0.049000000000003450518" rpy="-1.5707963267950564301 -1.5707963267948443775 0" />
<geometry>
<mesh filename="package://hephaestus_description/meshes/aluminum_tube_11_32_183.stl"/>
</geometry>
</collision>
<visual>
<origin xyz="0.018500000000048720528 0.31104293994007808921 -0.0069999999999922762894" rpy="3.1415926535897304994 5.6939008643900087402e-14 1.570796326794712483" />
<geometry>
<mesh filename="package://hephaestus_description/meshes/m3_25mm.stl"/>
</geometry>
<material name="m3_25mm_material">
<color rgba="0.90196078431372550543 0.90196078431372550543 0.90196078431372550543 1.0"/>
</material>
</visual>
<collision>
<origin xyz="0.018500000000048720528 0.31104293994007808921 -0.0069999999999922762894" rpy="3.1415926535897304994 5.6939008643900087402e-14 1.570796326794712483" />
<geometry>
<mesh filename="package://hephaestus_description/meshes/m3_25mm.stl"/>
</geometry>
</collision>
<visual>
<origin xyz="-0.025999999999965300868 0.23500000000004511724 -0.0069999999999974943377" rpy="3.1415926535897304994 5.7680404949993750407e-14 1.570796326794712483" />
<geometry>
<mesh filename="package://hephaestus_description/meshes/m3_25mm.stl"/>
</geometry>
<material name="m3_25mm_material">
<color rgba="0.90196078431372550543 0.90196078431372550543 0.90196078431372550543 1.0"/>
</material>
</visual>
<collision>
<origin xyz="-0.025999999999965300868 0.23500000000004511724 -0.0069999999999974943377" rpy="3.1415926535897304994 5.7680404949993750407e-14 1.570796326794712483" />
<geometry>
<mesh filename="package://hephaestus_description/meshes/m3_25mm.stl"/>
</geometry>
</collision>
<visual>
<origin xyz="-0.03204293994002890833 -0.018499999999999218459 -0.0070000000000038364867" rpy="3.1415926535897300553 5.7010285109476116487e-14 1.5707963267947127051" />
<geometry>
<mesh filename="package://hephaestus_description/meshes/m3_25mm.stl"/>
</geometry>
<material name="m3_25mm_material">
<color rgba="0.90196078431372550543 0.90196078431372550543 0.90196078431372550543 1.0"/>
</material>
</visual>
<collision>
<origin xyz="-0.03204293994002890833 -0.018499999999999218459 -0.0070000000000038364867" rpy="3.1415926535897300553 5.7010285109476116487e-14 1.5707963267947127051" />
<geometry>
<mesh filename="package://hephaestus_description/meshes/m3_25mm.stl"/>
</geometry>
</collision>
<visual>
<origin xyz="-0.032042939939985914943 0.26050000000005024692 -0.0069999999999974388265" rpy="3.1415926535897304994 5.6939008643900087402e-14 1.570796326794712483" />
<geometry>
<mesh filename="package://hephaestus_description/meshes/m3_25mm.stl"/>
</geometry>
<material name="m3_25mm_material">
<color rgba="0.90196078431372550543 0.90196078431372550543 0.90196078431372550543 1.0"/>
</material>
</visual>
<collision>
<origin xyz="-0.032042939939985914943 0.26050000000005024692 -0.0069999999999974388265" rpy="3.1415926535897304994 5.6939008643900087402e-14 1.570796326794712483" />
<geometry>
<mesh filename="package://hephaestus_description/meshes/m3_25mm.stl"/>
</geometry>
</collision>
<visual>
<origin xyz="-0.025999999999994746064 0.044000000000011238455 -0.0070000000000020740076" rpy="3.1415926535897300553 5.7877379539212265831e-14 1.570796326794712483" />
<geometry>
<mesh filename="package://hephaestus_description/meshes/m3_25mm.stl"/>
</geometry>
<material name="m3_25mm_material">
<color rgba="0.90196078431372550543 0.90196078431372550543 0.90196078431372550543 1.0"/>
</material>
</visual>
<collision>
<origin xyz="-0.025999999999994746064 0.044000000000011238455 -0.0070000000000020740076" rpy="3.1415926535897300553 5.7877379539212265831e-14 1.570796326794712483" />
<geometry>
<mesh filename="package://hephaestus_description/meshes/m3_25mm.stl"/>
</geometry>
</collision>
<visual>
<origin xyz="-4.1290582064566667793e-16 2.1233015345956118836e-15 -0.02900000000000276662" rpy="-3.1415926535897846783 1.3334699468924108205e-13 -1.5707963267950324493" />
<geometry>
<mesh filename="package://hephaestus_description/meshes/me8010e17b50_bracket_asm_3.stl"/>
</geometry>
<material name="me8010e17b50_bracket_asm_3_material">
<color rgba="0.90196078431372550543 0.90196078431372550543 0.90196078431372550543 1.0"/>
</material>
</visual>
<collision>
<origin xyz="-4.1290582064566667793e-16 2.1233015345956118836e-15 -0.02900000000000276662" rpy="-3.1415926535897846783 1.3334699468924108205e-13 -1.5707963267950324493" />
<geometry>
<mesh filename="package://hephaestus_description/meshes/me8010e17b50_bracket_asm_3.stl"/>
</geometry>
</collision>
<inertial>
<origin xyz="2.0568451779595685562e-14 0.13905499163507639704 -0.036243742585867072536" rpy="0 0 0"/>
<mass value="2.5487438908796358206" />
<inertia ixx="0.044157339046549004546" ixy="-8.296676574577585206e-10"  ixz="-2.0565968752570816841e-17" iyy="0.0019415697325323546304" iyz="-1.4468304719732685086e-05" izz="0.04427648453040247678" />
</inertial>
</link>

<link name="link4">
<visual>
<origin xyz="-0.012000000000000510259 0.03199999999999947331 -0.042000000000006199041" rpy="-1.5707963267949309749 1.5707963267948308328 0" />
<geometry>
<mesh filename="package://hephaestus_description/meshes/m4_14mm.stl"/>
</geometry>
<material name="m4_14mm_material">
<color rgba="0.90196078431372550543 0.90196078431372550543 0.90196078431372550543 1.0"/>
</material>
</visual>
<collision>
<origin xyz="-0.012000000000000510259 0.03199999999999947331 -0.042000000000006199041" rpy="-1.5707963267949309749 1.5707963267948308328 0" />
<geometry>
<mesh filename="package://hephaestus_description/meshes/m4_14mm.stl"/>
</geometry>
</collision>
<visual>
<origin xyz="0.01039230484540540865 0.25250000000001493472 -0.036000000000019224955" rpy="1.5707963267949309749 -1.5707963267948308328 0" />
<geometry>
<mesh filename="package://hephaestus_description/meshes/m4_8mm.stl"/>
</geometry>
<material name="m4_8mm_material">
<color rgba="0.90196078431372550543 0.90196078431372550543 0.90196078431372550543 1.0"/>
</material>
</visual>
<collision>
<origin xyz="0.01039230484540540865 0.25250000000001493472 -0.036000000000019224955" rpy="1.5707963267949309749 -1.5707963267948308328 0" />
<geometry>
<mesh filename="package://hephaestus_description/meshes/m4_8mm.stl"/>
</geometry>
</collision>
<visual>
<origin xyz="-8.2425016652094676389e-15 0.27900000000001479172 -0.05900000000002365852" rpy="-1.5707963267948155117 1.0547118733947502887e-15 -3.1415926535897593652" />
<geometry>
<mesh filename="package://hephaestus_description/meshes/mg4036e-i36-16.stl"/>
</geometry>
<material name="mg4036e-i36-16_material">
<color rgba="0.30196078431372547213 0.30196078431372547213 0.30196078431372547213 1.0"/>
</material>
</visual>
<collision>
<origin xyz="-8.2425016652094676389e-15 0.27900000000001479172 -0.05900000000002365852" rpy="-1.5707963267948155117 1.0547118733947502887e-15 -3.1415926535897593652" />
<geometry>
<mesh filename="package://hephaestus_description/meshes/mg4036e-i36-16.stl"/>
</geometry>
</collision>
<visual>
<origin xyz="-8.2425016652094676389e-15 0.27900000000001479172 -0.05900000000002365852" rpy="-1.5707963267948155117 1.0547118733947502887e-15 -3.1415926535897593652" />
<geometry>
<mesh filename="package://hephaestus_description/meshes/mg4036e-i36-30.stl"/>
</geometry>
<material name="mg4036e-i36-30_material">
<color rgba="0.30196078431372547213 0.30196078431372547213 0.30196078431372547213 1.0"/>
</material>
</visual>
<collision>
<origin xyz="-8.2425016652094676389e-15 0.27900000000001479172 -0.05900000000002365852" rpy="-1.5707963267948155117 1.0547118733947502887e-15 -3.1415926535897593652" />
<geometry>
<mesh filename="package://hephaestus_description/meshes/mg4036e-i36-30.stl"/>
</geometry>
</collision>
<visual>
<origin xyz="-8.2425016652094676389e-15 0.27900000000001479172 -0.05900000000002365852" rpy="-1.5707963267948155117 1.0547118733947502887e-15 -3.1415926535897593652" />
<geometry>
<mesh filename="package://hephaestus_description/meshes/mg4036e-i36-3.stl"/>
</geometry>
<material name="mg4036e-i36-3_material">
<color rgba="0.90196078431372550543 0.90196078431372550543 0.90196078431372550543 1.0"/>
</material>
</visual>
<collision>
<origin xyz="-8.2425016652094676389e-15 0.27900000000001479172 -0.05900000000002365852" rpy="-1.5707963267948155117 1.0547118733947502887e-15 -3.1415926535897593652" />
<geometry>
<mesh filename="package://hephaestus_description/meshes/mg4036e-i36-3.stl"/>
</geometry>
</collision>
<visual>
<origin xyz="-0.015870201811897150651 0.021843458848124441829 -0.0090000000000020272117" rpy="-7.105427357601697634e-15 -3.4638958368304726289e-14 1.5707963267949245356" />
<geometry>
<mesh filename="package://hephaestus_description/meshes/m3_22mm.stl"/>
</geometry>
<material name="m3_22mm_material">
<color rgba="0.90196078431372550543 0.90196078431372550543 0.90196078431372550543 1.0"/>
</material>
</visual>
<collision>
<origin xyz="-0.015870201811897150651 0.021843458848124441829 -0.0090000000000020272117" rpy="-7.105427357601697634e-15 -3.4638958368304726289e-14 1.5707963267949245356" />
<geometry>
<mesh filename="package://hephaestus_description/meshes/m3_22mm.stl"/>
</geometry>
</collision>
<visual>
<origin xyz="-8.2425016652094676389e-15 0.27900000000001479172 -0.05900000000002365852" rpy="-1.5707963267948155117 1.0547118733947502887e-15 -3.1415926535897593652" />
<geometry>
<mesh filename="package://hephaestus_description/meshes/mg4036e-i36-22.stl"/>
</geometry>
<material name="mg4036e-i36-22_material">
<color rgba="1 1 1 1.0"/>
</material>
</visual>
<collision>
<origin xyz="-8.2425016652094676389e-15 0.27900000000001479172 -0.05900000000002365852" rpy="-1.5707963267948155117 1.0547118733947502887e-15 -3.1415926535897593652" />
<geometry>
<mesh filename="package://hephaestus_description/meshes/mg4036e-i36-22.stl"/>
</geometry>
</collision>
<visual>
<origin xyz="-8.2425016652094676389e-15 0.27900000000001479172 -0.05900000000002365852" rpy="-1.5707963267948155117 1.0547118733947502887e-15 -3.1415926535897593652" />
<geometry>
<mesh filename="package://hephaestus_description/meshes/mg4036e-i36-29.stl"/>
</geometry>
<material name="mg4036e-i36-29_material">
<color rgba="0.30196078431372547213 0.30196078431372547213 0.30196078431372547213 1.0"/>
</material>
</visual>
<collision>
<origin xyz="-8.2425016652094676389e-15 0.27900000000001479172 -0.05900000000002365852" rpy="-1.5707963267948155117 1.0547118733947502887e-15 -3.1415926535897593652" />
<geometry>
<mesh filename="package://hephaestus_description/meshes/mg4036e-i36-29.stl"/>
</geometry>
</collision>
<visual>
<origin xyz="0.0044999999999985607069 0.044000000000002648104 -0.013500000000003543887" rpy="1.5707963267949309749 -1.5707963267948308328 0" />
<geometry>
<mesh filename="package://hephaestus_description/meshes/m3_8mm.stl"/>
</geometry>
<material name="m3_8mm_material">
<color rgba="0.90196078431372550543 0.90196078431372550543 0.90196078431372550543 1.0"/>
</material>
</visual>
<collision>
<origin xyz="0.0044999999999985607069 0.044000000000002648104 -0.013500000000003543887" rpy="1.5707963267949309749 -1.5707963267948308328 0" />
<geometry>
<mesh filename="package://hephaestus_description/meshes/m3_8mm.stl"/>
</geometry>
</collision>
<visual>
<origin xyz="-0.02375000000000820205 0.27900000000001712319 -0.014000000000019094393" rpy="-3.1415926535897753524 -1.64535052249448376e-13 -1.5707963267948563679" />
<geometry>
<mesh filename="package://hephaestus_description/meshes/m3_6mm.stl"/>
</geometry>
<material name="m3_6mm_material">
<color rgba="0.90196078431372550543 0.90196078431372550543 0.90196078431372550543 1.0"/>
</material>
</visual>
<collision>
<origin xyz="-0.02375000000000820205 0.27900000000001712319 -0.014000000000019094393" rpy="-3.1415926535897753524 -1.64535052249448376e-13 -1.5707963267948563679" />
<geometry>
<mesh filename="package://hephaestus_description/meshes/m3_6mm.stl"/>
</geometry>
</collision>
<visual>
<origin xyz="-8.2425016652094676389e-15 0.27900000000001479172 -0.05900000000002365852" rpy="-1.5707963267948155117 1.0547118733947502887e-15 -3.1415926535897593652" />
<geometry>
<mesh filename="package://hephaestus_description/meshes/mg4036e-i36-2.stl"/>
</geometry>
<material name="mg4036e-i36-2_material">
<color rgba="0.90196078431372550543 0.90196078431372550543 0.90196078431372550543 1.0"/>
</material>
</visual>
<collision>
<origin xyz="-8.2425016652094676389e-15 0.27900000000001479172 -0.05900000000002365852" rpy="-1.5707963267948155117 1.0547118733947502887e-15 -3.1415926535897593652" />
<geometry>
<mesh filename="package://hephaestus_description/meshes/mg4036e-i36-2.stl"/>
</geometry>
</collision>
<visual>
<origin xyz="-8.2425016652094676389e-15 0.27900000000001479172 -0.05900000000002365852" rpy="-1.5707963267948155117 1.0547118733947502887e-15 -3.1415926535897593652" />
<geometry>
<mesh filename="package://hephaestus_description/meshes/mg4036e-i36-23.stl"/>
</geometry>
<material name="mg4036e-i36-23_material">
<color rgba="1 1 1 1.0"/>
</material>
</visual>
<collision>
<origin xyz="-8.2425016652094676389e-15 0.27900000000001479172 -0.05900000000002365852" rpy="-1.5707963267948155117 1.0547118733947502887e-15 -3.1415926535897593652" />
<geometry>
<mesh filename="package://hephaestus_description/meshes/mg4036e-i36-23.stl"/>
</geometry>
</collision>
<visual>
<origin xyz="-0.025678525939968874225 0.0083434588481232085933 -0.0090000000000013749557" rpy="-7.1054273576016929009e-15 -3.5305092183079813902e-14 1.5707963267949245356" />
<geometry>
<mesh filename="package://hephaestus_description/meshes/m3_22mm.stl"/>
</geometry>
<material name="m3_22mm_material">
<color rgba="0.90196078431372550543 0.90196078431372550543 0.90196078431372550543 1.0"/>
</material>
</visual>
<collision>
<origin xyz="-0.025678525939968874225 0.0083434588481232085933 -0.0090000000000013749557" rpy="-7.1054273576016929009e-15 -3.5305092183079813902e-14 1.5707963267949245356" />
<geometry>
<mesh filename="package://hephaestus_description/meshes/m3_22mm.stl"/>
</geometry>
</collision>
<visual>
<origin xyz="-8.2425016652094676389e-15 0.27900000000001479172 -0.05900000000002365852" rpy="-1.5707963267948155117 1.0547118733947502887e-15 -3.1415926535897593652" />
<geometry>
<mesh filename="package://hephaestus_description/meshes/mg4036e-i36-20.stl"/>
</geometry>
<material name="mg4036e-i36-20_material">
<color rgba="0.90196078431372550543 0.90196078431372550543 0.90196078431372550543 1.0"/>
</material>
</visual>
<collision>
<origin xyz="-8.2425016652094676389e-15 0.27900000000001479172 -0.05900000000002365852" rpy="-1.5707963267948155117 1.0547118733947502887e-15 -3.1415926535897593652" />
<geometry>
<mesh filename="package://hephaestus_description/meshes/mg4036e-i36-20.stl"/>
</geometry>
</collision>
<visual>
<origin xyz="-0.014000000000001349906 0.038000000000000033751 -1.9567680809018384025e-15" rpy="-3.1415926535897802374 -6.4274194148478922455e-14 -1.5707963267948632513" />
<geometry>
<mesh filename="package://hephaestus_description/meshes/m3_20mm.stl"/>
</geometry>
<material name="m3_20mm_material">
<color rgba="0.90196078431372550543 0.90196078431372550543 0.90196078431372550543 1.0"/>
</material>
</visual>
<collision>
<origin xyz="-0.014000000000001349906 0.038000000000000033751 -1.9567680809018384025e-15" rpy="-3.1415926535897802374 -6.4274194148478922455e-14 -1.5707963267948632513" />
<geometry>
<mesh filename="package://hephaestus_description/meshes/m3_20mm.stl"/>
</geometry>
</collision>
<visual>
<origin xyz="-8.2425016652094676389e-15 0.27900000000001479172 -0.05900000000002365852" rpy="-1.5707963267948155117 1.0547118733947502887e-15 -3.1415926535897593652" />
<geometry>
<mesh filename="package://hephaestus_description/meshes/mg4036e-i36-10.stl"/>
</geometry>
<material name="mg4036e-i36-10_material">
<color rgba="0.30196078431372547213 0.30196078431372547213 0.30196078431372547213 1.0"/>
</material>
</visual>
<collision>
<origin xyz="-8.2425016652094676389e-15 0.27900000000001479172 -0.05900000000002365852" rpy="-1.5707963267948155117 1.0547118733947502887e-15 -3.1415926535897593652" />
<geometry>
<mesh filename="package://hephaestus_description/meshes/mg4036e-i36-10.stl"/>
</geometry>
</collision>
<visual>
<origin xyz="-0.0060000000000007070247 0.032000000000000361489 -0.031607695154591684827" rpy="-1.5707963267949309749 1.5707963267948308328 0" />
<geometry>
<mesh filename="package://hephaestus_description/meshes/m4_14mm.stl"/>
</geometry>
<material name="m4_14mm_material">
<color rgba="0.90196078431372550543 0.90196078431372550543 0.90196078431372550543 1.0"/>
</material>
</visual>
<collision>
<origin xyz="-0.0060000000000007070247 0.032000000000000361489 -0.031607695154591684827" rpy="-1.5707963267949309749 1.5707963267948308328 0" />
<geometry>
<mesh filename="package://hephaestus_description/meshes/m4_14mm.stl"/>
</geometry>
</collision>
<visual>
<origin xyz="0.011999999999999098194 0.032000000000000083933 -0.042000000000005754952" rpy="-1.5707963267949309749 1.5707963267948308328 0" />
<geometry>
<mesh filename="package://hephaestus_description/meshes/m4_14mm.stl"/>
</geometry>
<material name="m4_14mm_material">
<color rgba="0.90196078431372550543 0.90196078431372550543 0.90196078431372550543 1.0"/>
</material>
</visual>
<collision>
<origin xyz="0.011999999999999098194 0.032000000000000083933 -0.042000000000005754952" rpy="-1.5707963267949309749 1.5707963267948308328 0" />
<geometry>
<mesh filename="package://hephaestus_description/meshes/m4_14mm.stl"/>
</geometry>
</collision>
<visual>
<origin xyz="-0.025678525939968385033 -0.0083434588481249849501 -0.0090000000000002855494" rpy="-7.105427357601697634e-15 -3.4638958368304726289e-14 1.5707963267949245356" />
<geometry>
<mesh filename="package://hephaestus_description/meshes/m3_22mm.stl"/>
</geometry>
<material name="m3_22mm_material">
<color rgba="0.90196078431372550543 0.90196078431372550543 0.90196078431372550543 1.0"/>
</material>
</visual>
<collision>
<origin xyz="-0.025678525939968385033 -0.0083434588481249849501 -0.0090000000000002855494" rpy="-7.105427357601697634e-15 -3.4638958368304726289e-14 1.5707963267949245356" />
<geometry>
<mesh filename="package://hephaestus_description/meshes/m3_22mm.stl"/>
</geometry>
</collision>
<visual>
<origin xyz="0.0059999999999990711805 0.032000000000000583533 -0.031607695154591469722" rpy="-1.5707963267949309749 1.5707963267948308328 0" />
<geometry>
<mesh filename="package://hephaestus_description/meshes/m4_14mm.stl"/>
</geometry>
<material name="m4_14mm_material">
<color rgba="0.90196078431372550543 0.90196078431372550543 0.90196078431372550543 1.0"/>
</material>
</visual>
<collision>
<origin xyz="0.0059999999999990711805 0.032000000000000583533 -0.031607695154591469722" rpy="-1.5707963267949309749 1.5707963267948308328 0" />
<geometry>
<mesh filename="package://hephaestus_description/meshes/m4_14mm.stl"/>
</geometry>
</collision>
<visual>
<origin xyz="0.01587020181189709167 -0.021843458848124830407 -0.0089999999999986202148" rpy="-7.105427357601697634e-15 -3.4638958368304726289e-14 1.5707963267949245356" />
<geometry>
<mesh filename="package://hephaestus_description/meshes/m3_22mm.stl"/>
</geometry>
<material name="m3_22mm_material">
<color rgba="0.90196078431372550543 0.90196078431372550543 0.90196078431372550543 1.0"/>
</material>
</visual>
<collision>
<origin xyz="0.01587020181189709167 -0.021843458848124830407 -0.0089999999999986202148" rpy="-7.105427357601697634e-15 -3.4638958368304726289e-14 1.5707963267949245356" />
<geometry>
<mesh filename="package://hephaestus_description/meshes/m3_22mm.stl"/>
</geometry>
</collision>
<visual>
<origin xyz="-0.015870201811895846139 -0.021843458848125552052 -0.0089999999999992100208" rpy="-7.105427357601697634e-15 -3.4638958368304726289e-14 1.5707963267949245356" />
<geometry>
<mesh filename="package://hephaestus_description/meshes/m3_22mm.stl"/>
</geometry>
<material name="m3_22mm_material">
<color rgba="0.90196078431372550543 0.90196078431372550543 0.90196078431372550543 1.0"/>
</material>
</visual>
<collision>
<origin xyz="-0.015870201811895846139 -0.021843458848125552052 -0.0089999999999992100208" rpy="-7.105427357601697634e-15 -3.4638958368304726289e-14 1.5707963267949245356" />
<geometry>
<mesh filename="package://hephaestus_description/meshes/m3_22mm.stl"/>
</geometry>
</collision>
<visual>
<origin xyz="-1.1281991325501189265e-15 0.044000000000000483169 -0.042000000000006740275" rpy="-1.5707963267949309749 1.5707963267948308328 0" />
<geometry>
<mesh filename="package://hephaestus_description/meshes/aluminum_tube_11_32_200_5.stl"/>
</geometry>
<material name="aluminum_tube_11_32_200_5_material">
<color rgba="0.90196078431372550543 0.90196078431372550543 0.90196078431372550543 1.0"/>
</material>
</visual>
<collision>
<origin xyz="-1.1281991325501189265e-15 0.044000000000000483169 -0.042000000000006740275" rpy="-1.5707963267949309749 1.5707963267948308328 0" />
<geometry>
<mesh filename="package://hephaestus_description/meshes/aluminum_tube_11_32_200_5.stl"/>
</geometry>
</collision>
<visual>
<origin xyz="-8.2425016652094676389e-15 0.27900000000001479172 -0.05900000000002365852" rpy="-1.5707963267948155117 1.0547118733947502887e-15 -3.1415926535897593652" />
<geometry>
<mesh filename="package://hephaestus_description/meshes/mg4036e-i36-4.stl"/>
</geometry>
<material name="mg4036e-i36-4_material">
<color rgba="0.90196078431372550543 0.90196078431372550543 0.90196078431372550543 1.0"/>
</material>
</visual>
<collision>
<origin xyz="-8.2425016652094676389e-15 0.27900000000001479172 -0.05900000000002365852" rpy="-1.5707963267948155117 1.0547118733947502887e-15 -3.1415926535897593652" />
<geometry>
<mesh filename="package://hephaestus_description/meshes/mg4036e-i36-4.stl"/>
</geometry>
</collision>
<visual>
<origin xyz="0.008343458848124188712 -0.025678525939970830994 -0.0089999999999985300092" rpy="-7.1054273576016929009e-15 -3.5305092183079813902e-14 1.5707963267949245356" />
<geometry>
<mesh filename="package://hephaestus_description/meshes/m3_22mm.stl"/>
</geometry>
<material name="m3_22mm_material">
<color rgba="0.90196078431372550543 0.90196078431372550543 0.90196078431372550543 1.0"/>
</material>
</visual>
<collision>
<origin xyz="0.008343458848124188712 -0.025678525939970830994 -0.0089999999999985300092" rpy="-7.1054273576016929009e-15 -3.5305092183079813902e-14 1.5707963267949245356" />
<geometry>
<mesh filename="package://hephaestus_description/meshes/m3_22mm.stl"/>
</geometry>
</collision>
<visual>
<origin xyz="-8.2425016652094676389e-15 0.27900000000001479172 -0.05900000000002365852" rpy="-1.5707963267948155117 1.0547118733947502887e-15 -3.1415926535897593652" />
<geometry>
<mesh filename="package://hephaestus_description/meshes/mg4036e-i36-9.stl"/>
</geometry>
<material name="mg4036e-i36-9_material">
<color rgba="0.30196078431372547213 0.30196078431372547213 0.30196078431372547213 1.0"/>
</material>
</visual>
<collision>
<origin xyz="-8.2425016652094676389e-15 0.27900000000001479172 -0.05900000000002365852" rpy="-1.5707963267948155117 1.0547118733947502887e-15 -3.1415926535897593652" />
<geometry>
<mesh filename="package://hephaestus_description/meshes/mg4036e-i36-9.stl"/>
</geometry>
</collision>
<visual>
<origin xyz="-8.6726957400168846541e-15 0.27900000000001745626 -0.020000000000019391155" rpy="-1.6653345369372299397e-16 4.4408920985008726807e-16 -3.1415926535897922278" />
<geometry>
<mesh filename="package://hephaestus_description/meshes/mg4036i36_bracket.stl"/>
</geometry>
<material name="mg4036i36_bracket_material">
<color rgba="0.90196078431372550543 0.90196078431372550543 0.90196078431372550543 1.0"/>
</material>
</visual>
<collision>
<origin xyz="-8.6726957400168846541e-15 0.27900000000001745626 -0.020000000000019391155" rpy="-1.6653345369372299397e-16 4.4408920985008726807e-16 -3.1415926535897922278" />
<geometry>
<mesh filename="package://hephaestus_description/meshes/mg4036i36_bracket.stl"/>
</geometry>
</collision>
<visual>
<origin xyz="-0.008343458848124176569 0.025678525939970331393 -0.0090000000000021104785" rpy="-7.105427357601697634e-15 -3.4638958368304726289e-14 1.5707963267949245356" />
<geometry>
<mesh filename="package://hephaestus_description/meshes/m3_22mm.stl"/>
</geometry>
<material name="m3_22mm_material">
<color rgba="0.90196078431372550543 0.90196078431372550543 0.90196078431372550543 1.0"/>
</material>
</visual>
<collision>
<origin xyz="-0.008343458848124176569 0.025678525939970331393 -0.0090000000000021104785" rpy="-7.105427357601697634e-15 -3.4638958368304726289e-14 1.5707963267949245356" />
<geometry>
<mesh filename="package://hephaestus_description/meshes/m3_22mm.stl"/>
</geometry>
</collision>
<visual>
<origin xyz="-0.021843458848122627308 -0.015870201811898576594 -0.0089999999999997026823" rpy="-7.105427357601697634e-15 -3.4638958368304726289e-14 1.5707963267949245356" />
<geometry>
<mesh filename="package://hephaestus_description/meshes/m3_22mm.stl"/>
</geometry>
<material name="m3_22mm_material">
<color rgba="0.90196078431372550543 0.90196078431372550543 0.90196078431372550543 1.0"/>
</material>
</visual>
<collision>
<origin xyz="-0.021843458848122627308 -0.015870201811898576594 -0.0089999999999997026823" rpy="-7.105427357601697634e-15 -3.4638958368304726289e-14 1.5707963267949245356" />
<geometry>
<mesh filename="package://hephaestus_description/meshes/m3_22mm.stl"/>
</geometry>
</collision>
<visual>
<origin xyz="-8.2425016652094676389e-15 0.27900000000001479172 -0.05900000000002365852" rpy="-1.5707963267948155117 1.0547118733947502887e-15 -3.1415926535897593652" />
<geometry>
<mesh filename="package://hephaestus_description/meshes/mg4036e-i36-26.stl"/>
</geometry>
<material name="mg4036e-i36-26_material">
<color rgba="1 1 1 1.0"/>
</material>
</visual>
<collision>
<origin xyz="-8.2425016652094676389e-15 0.27900000000001479172 -0.05900000000002365852" rpy="-1.5707963267948155117 1.0547118733947502887e-15 -3.1415926535897593652" />
<geometry>
<mesh filename="package://hephaestus_description/meshes/mg4036e-i36-26.stl"/>
</geometry>
</collision>
<visual>
<origin xyz="-8.2425016652094676389e-15 0.27900000000001479172 -0.05900000000002365852" rpy="-1.5707963267948155117 1.0547118733947502887e-15 -3.1415926535897593652" />
<geometry>
<mesh filename="package://hephaestus_description/meshes/mg4036e-i36-15.stl"/>
</geometry>
<material name="mg4036e-i36-15_material">
<color rgba="0.30196078431372547213 0.30196078431372547213 0.30196078431372547213 1.0"/>
</material>
</visual>
<collision>
<origin xyz="-8.2425016652094676389e-15 0.27900000000001479172 -0.05900000000002365852" rpy="-1.5707963267948155117 1.0547118733947502887e-15 -3.1415926535897593652" />
<geometry>
<mesh filename="package://hephaestus_description/meshes/mg4036e-i36-15.stl"/>
</geometry>
</collision>
<visual>
<origin xyz="0.021843458848122620369 0.015870201811898021482 -0.0090000000000009169887" rpy="-7.105427357601697634e-15 -3.4638958368304726289e-14 1.5707963267949245356" />
<geometry>
<mesh filename="package://hephaestus_description/meshes/m3_22mm.stl"/>
</geometry>
<material name="m3_22mm_material">
<color rgba="0.90196078431372550543 0.90196078431372550543 0.90196078431372550543 1.0"/>
</material>
</visual>
<collision>
<origin xyz="0.021843458848122620369 0.015870201811898021482 -0.0090000000000009169887" rpy="-7.105427357601697634e-15 -3.4638958368304726289e-14 1.5707963267949245356" />
<geometry>
<mesh filename="package://hephaestus_description/meshes/m3_22mm.stl"/>
</geometry>
</collision>
<visual>
<origin xyz="0.025678525939968391972 0.0083434588481244853497 -0.0090000000000003688161" rpy="-7.105427357601697634e-15 -3.4638958368304726289e-14 1.5707963267949245356" />
<geometry>
<mesh filename="package://hephaestus_description/meshes/m3_22mm.stl"/>
</geometry>
<material name="m3_22mm_material">
<color rgba="0.90196078431372550543 0.90196078431372550543 0.90196078431372550543 1.0"/>
</material>
</visual>
<collision>
<origin xyz="0.025678525939968391972 0.0083434588481244853497 -0.0090000000000003688161" rpy="-7.105427357601697634e-15 -3.4638958368304726289e-14 1.5707963267949245356" />
<geometry>
<mesh filename="package://hephaestus_description/meshes/m3_22mm.stl"/>
</geometry>
</collision>
<visual>
<origin xyz="1.3343492977211561754e-16 -7.771561172376095783e-16 -0.018000000000001334377" rpy="-3.1415926535897926719 -5.5511151231231042728e-17 -3.1415926535897922278" />
<geometry>
<mesh filename="package://hephaestus_description/meshes/j3_converter_asm_2.stl"/>
</geometry>
<material name="j3_converter_asm_2_material">
<color rgba="0.90196078431372550543 0.90196078431372550543 0.90196078431372550543 1.0"/>
</material>
</visual>
<collision>
<origin xyz="1.3343492977211561754e-16 -7.771561172376095783e-16 -0.018000000000001334377" rpy="-3.1415926535897926719 -5.5511151231231042728e-17 -3.1415926535897922278" />
<geometry>
<mesh filename="package://hephaestus_description/meshes/j3_converter_asm_2.stl"/>
</geometry>
</collision>
<visual>
<origin xyz="0.025678525939968884634 -0.0083434588481237637048 -0.0089999999999992724709" rpy="-7.105427357601697634e-15 -3.4638958368304726289e-14 1.5707963267949245356" />
<geometry>
<mesh filename="package://hephaestus_description/meshes/m3_22mm.stl"/>
</geometry>
<material name="m3_22mm_material">
<color rgba="0.90196078431372550543 0.90196078431372550543 0.90196078431372550543 1.0"/>
</material>
</visual>
<collision>
<origin xyz="0.025678525939968884634 -0.0083434588481237637048 -0.0089999999999992724709" rpy="-7.105427357601697634e-15 -3.4638958368304726289e-14 1.5707963267949245356" />
<geometry>
<mesh filename="package://hephaestus_description/meshes/m3_22mm.stl"/>
</geometry>
</collision>
<visual>
<origin xyz="0.011874999999991756733 0.25843189666013677286 -0.014000000000017179258" rpy="-3.1415926535897753524 -1.6409096303959833862e-13 -1.5707963267948563679" />
<geometry>
<mesh filename="package://hephaestus_description/meshes/m3_6mm.stl"/>
</geometry>
<material name="m3_6mm_material">
<color rgba="0.90196078431372550543 0.90196078431372550543 0.90196078431372550543 1.0"/>
</material>
</visual>
<collision>
<origin xyz="0.011874999999991756733 0.25843189666013677286 -0.014000000000017179258" rpy="-3.1415926535897753524 -1.6409096303959833862e-13 -1.5707963267948563679" />
<geometry>
<mesh filename="package://hephaestus_description/meshes/m3_6mm.stl"/>
</geometry>
</collision>
<visual>
<origin xyz="-8.2425016652094676389e-15 0.27900000000001479172 -0.05900000000002365852" rpy="-1.5707963267948155117 1.0547118733947502887e-15 -3.1415926535897593652" />
<geometry>
<mesh filename="package://hephaestus_description/meshes/mg4036e-i36-8.stl"/>
</geometry>
<material name="mg4036e-i36-8_material">
<color rgba="0.30196078431372547213 0.30196078431372547213 0.30196078431372547213 1.0"/>
</material>
</visual>
<collision>
<origin xyz="-8.2425016652094676389e-15 0.27900000000001479172 -0.05900000000002365852" rpy="-1.5707963267948155117 1.0547118733947502887e-15 -3.1415926535897593652" />
<geometry>
<mesh filename="package://hephaestus_description/meshes/mg4036e-i36-8.stl"/>
</geometry>
</collision>
<visual>
<origin xyz="0.0059999999999992299077 0.031999999999999251266 -0.052392304845420269166" rpy="-1.5707963267949309749 1.5707963267948308328 0" />
<geometry>
<mesh filename="package://hephaestus_description/meshes/m4_14mm.stl"/>
</geometry>
<material name="m4_14mm_material">
<color rgba="0.90196078431372550543 0.90196078431372550543 0.90196078431372550543 1.0"/>
</material>
</visual>
<collision>
<origin xyz="0.0059999999999992299077 0.031999999999999251266 -0.052392304845420269166" rpy="-1.5707963267949309749 1.5707963267948308328 0" />
<geometry>
<mesh filename="package://hephaestus_description/meshes/m4_14mm.stl"/>
</geometry>
</collision>
<visual>
<origin xyz="0 0 -0.0060000000000000053291" rpy="0 2.5035372143778692941e-31 0" />
<geometry>
<mesh filename="package://hephaestus_description/meshes/j3_converter_asm_1.stl"/>
</geometry>
<material name="j3_converter_asm_1_material">
<color rgba="0.90196078431372550543 0.90196078431372550543 0.90196078431372550543 1.0"/>
</material>
</visual>
<collision>
<origin xyz="0 0 -0.0060000000000000053291" rpy="0 2.5035372143778692941e-31 0" />
<geometry>
<mesh filename="package://hephaestus_description/meshes/j3_converter_asm_1.stl"/>
</geometry>
</collision>
<visual>
<origin xyz="-8.2425016652094676389e-15 0.27900000000001479172 -0.05900000000002365852" rpy="-1.5707963267948155117 1.0547118733947502887e-15 -3.1415926535897593652" />
<geometry>
<mesh filename="package://hephaestus_description/meshes/mg4036e-i36-21.stl"/>
</geometry>
<material name="mg4036e-i36-21_material">
<color rgba="0.90196078431372550543 0.90196078431372550543 0.90196078431372550543 1.0"/>
</material>
</visual>
<collision>
<origin xyz="-8.2425016652094676389e-15 0.27900000000001479172 -0.05900000000002365852" rpy="-1.5707963267948155117 1.0547118733947502887e-15 -3.1415926535897593652" />
<geometry>
<mesh filename="package://hephaestus_description/meshes/mg4036e-i36-21.stl"/>
</geometry>
</collision>
<visual>
<origin xyz="-7.5696833774429102887e-15 0.25250000000001349143 -0.054000000000021412816" rpy="1.5707963267949309749 -1.5707963267948308328 0" />
<geometry>
<mesh filename="package://hephaestus_description/meshes/m4_8mm.stl"/>
</geometry>
<material name="m4_8mm_material">
<color rgba="0.90196078431372550543 0.90196078431372550543 0.90196078431372550543 1.0"/>
</material>
</visual>
<collision>
<origin xyz="-7.5696833774429102887e-15 0.25250000000001349143 -0.054000000000021412816" rpy="1.5707963267949309749 -1.5707963267948308328 0" />
<geometry>
<mesh filename="package://hephaestus_description/meshes/m4_8mm.stl"/>
</geometry>
</collision>
<visual>
<origin xyz="-8.2425016652094676389e-15 0.27900000000001479172 -0.05900000000002365852" rpy="-1.5707963267948155117 1.0547118733947502887e-15 -3.1415926535897593652" />
<geometry>
<mesh filename="package://hephaestus_description/meshes/mg4036e-i36-25.stl"/>
</geometry>
<material name="mg4036e-i36-25_material">
<color rgba="1 1 1 1.0"/>
</material>
</visual>
<collision>
<origin xyz="-8.2425016652094676389e-15 0.27900000000001479172 -0.05900000000002365852" rpy="-1.5707963267948155117 1.0547118733947502887e-15 -3.1415926535897593652" />
<geometry>
<mesh filename="package://hephaestus_description/meshes/mg4036e-i36-25.stl"/>
</geometry>
</collision>
<visual>
<origin xyz="-8.2425016652094676389e-15 0.27900000000001479172 -0.05900000000002365852" rpy="-1.5707963267948155117 1.0547118733947502887e-15 -3.1415926535897593652" />
<geometry>
<mesh filename="package://hephaestus_description/meshes/mg4036e-i36-24.stl"/>
</geometry>
<material name="mg4036e-i36-24_material">
<color rgba="0.30196078431372547213 0.30196078431372547213 0.30196078431372547213 1.0"/>
</material>
</visual>
<collision>
<origin xyz="-8.2425016652094676389e-15 0.27900000000001479172 -0.05900000000002365852" rpy="-1.5707963267948155117 1.0547118733947502887e-15 -3.1415926535897593652" />
<geometry>
<mesh filename="package://hephaestus_description/meshes/mg4036e-i36-24.stl"/>
</geometry>
</collision>
<visual>
<origin xyz="-8.2425016652094676389e-15 0.27900000000001479172 -0.05900000000002365852" rpy="-1.5707963267948155117 1.0547118733947502887e-15 -3.1415926535897593652" />
<geometry>
<mesh filename="package://hephaestus_description/meshes/mg4036e-i36-28.stl"/>
</geometry>
<material name="mg4036e-i36-28_material">
<color rgba="1 1 1 1.0"/>
</material>
</visual>
<collision>
<origin xyz="-8.2425016652094676389e-15 0.27900000000001479172 -0.05900000000002365852" rpy="-1.5707963267948155117 1.0547118733947502887e-15 -3.1415926535897593652" />
<geometry>
<mesh filename="package://hephaestus_description/meshes/mg4036e-i36-28.stl"/>
</geometry>
</collision>
<visual>
<origin xyz="0.0083434588481225945011 0.025678525939970719971 -0.0090000000000018259838" rpy="-7.105427357601697634e-15 -3.4638958368304726289e-14 1.5707963267949245356" />
<geometry>
<mesh filename="package://hephaestus_description/meshes/m3_22mm.stl"/>
</geometry>
<material name="m3_22mm_material">
<color rgba="0.90196078431372550543 0.90196078431372550543 0.90196078431372550543 1.0"/>
</material>
</visual>
<collision>
<origin xyz="0.0083434588481225945011 0.025678525939970719971 -0.0090000000000018259838" rpy="-7.105427357601697634e-15 -3.4638958368304726289e-14 1.5707963267949245356" />
<geometry>
<mesh filename="package://hephaestus_description/meshes/m3_22mm.stl"/>
</geometry>
</collision>
<visual>
<origin xyz="0.02374999999999088604 0.27900000000001856648 -0.014000000000018220092" rpy="-3.1415926535897753524 -1.6409096303959833862e-13 -1.5707963267948563679" />
<geometry>
<mesh filename="package://hephaestus_description/meshes/m3_6mm.stl"/>
</geometry>
<material name="m3_6mm_material">
<color rgba="0.90196078431372550543 0.90196078431372550543 0.90196078431372550543 1.0"/>
</material>
</visual>
<collision>
<origin xyz="0.02374999999999088604 0.27900000000001856648 -0.014000000000018220092" rpy="-3.1415926535897753524 -1.6409096303959833862e-13 -1.5707963267948563679" />
<geometry>
<mesh filename="package://hephaestus_description/meshes/m3_6mm.stl"/>
</geometry>
</collision>
<visual>
<origin xyz="0.011874999999990431404 0.2995681033399003601 -0.014000000000019795221" rpy="-3.1415926535897753524 -1.6409096303959833862e-13 -1.5707963267948563679" />
<geometry>
<mesh filename="package://hephaestus_description/meshes/m3_6mm.stl"/>
</geometry>
<material name="m3_6mm_material">
<color rgba="0.90196078431372550543 0.90196078431372550543 0.90196078431372550543 1.0"/>
</material>
</visual>
<collision>
<origin xyz="0.011874999999990431404 0.2995681033399003601 -0.014000000000019795221" rpy="-3.1415926535897753524 -1.6409096303959833862e-13 -1.5707963267948563679" />
<geometry>
<mesh filename="package://hephaestus_description/meshes/m3_6mm.stl"/>
</geometry>
</collision>
<visual>
<origin xyz="-8.2425016652094676389e-15 0.27900000000001479172 -0.05900000000002365852" rpy="-1.5707963267948155117 1.0547118733947502887e-15 -3.1415926535897593652" />
<geometry>
<mesh filename="package://hephaestus_description/meshes/mg4036e-i36-27.stl"/>
</geometry>
<material name="mg4036e-i36-27_material">
<color rgba="0.30196078431372547213 0.30196078431372547213 0.30196078431372547213 1.0"/>
</material>
</visual>
<collision>
<origin xyz="-8.2425016652094676389e-15 0.27900000000001479172 -0.05900000000002365852" rpy="-1.5707963267948155117 1.0547118733947502887e-15 -3.1415926535897593652" />
<geometry>
<mesh filename="package://hephaestus_description/meshes/mg4036e-i36-27.stl"/>
</geometry>
</collision>
<visual>
<origin xyz="-8.2425016652094676389e-15 0.27900000000001479172 -0.05900000000002365852" rpy="-1.5707963267948155117 1.0547118733947502887e-15 -3.1415926535897593652" />
<geometry>
<mesh filename="package://hephaestus_description/meshes/mg4036e-i36-7.stl"/>
</geometry>
<material name="mg4036e-i36-7_material">
<color rgba="0.30196078431372547213 0.30196078431372547213 0.30196078431372547213 1.0"/>
</material>
</visual>
<collision>
<origin xyz="-8.2425016652094676389e-15 0.27900000000001479172 -0.05900000000002365852" rpy="-1.5707963267948155117 1.0547118733947502887e-15 -3.1415926535897593652" />
<geometry>
<mesh filename="package://hephaestus_description/meshes/mg4036e-i36-7.stl"/>
</geometry>
</collision>
<visual>
<origin xyz="-0.0060000000000005448281 0.031999999999998918199 -0.052392304845420498149" rpy="-1.5707963267949309749 1.5707963267948308328 0" />
<geometry>
<mesh filename="package://hephaestus_description/meshes/m4_14mm.stl"/>
</geometry>
<material name="m4_14mm_material">
<color rgba="0.90196078431372550543 0.90196078431372550543 0.90196078431372550543 1.0"/>
</material>
</visual>
<collision>
<origin xyz="-0.0060000000000005448281 0.031999999999998918199 -0.052392304845420498149" rpy="-1.5707963267949309749 1.5707963267948308328 0" />
<geometry>
<mesh filename="package://hephaestus_description/meshes/m4_14mm.stl"/>
</geometry>
</collision>
<visual>
<origin xyz="-8.2425016652094676389e-15 0.27900000000001479172 -0.05900000000002365852" rpy="-1.5707963267948155117 1.0547118733947502887e-15 -3.1415926535897593652" />
<geometry>
<mesh filename="package://hephaestus_description/meshes/mg4036e-i36-5.stl"/>
</geometry>
<material name="mg4036e-i36-5_material">
<color rgba="0.90196078431372550543 0.90196078431372550543 0.90196078431372550543 1.0"/>
</material>
</visual>
<collision>
<origin xyz="-8.2425016652094676389e-15 0.27900000000001479172 -0.05900000000002365852" rpy="-1.5707963267948155117 1.0547118733947502887e-15 -3.1415926535897593652" />
<geometry>
<mesh filename="package://hephaestus_description/meshes/mg4036e-i36-5.stl"/>
</geometry>
</collision>
<visual>
<origin xyz="-0.011875000000009121315 0.29956810333989980499 -0.014000000000020232371" rpy="-3.1415926535897753524 -1.6409096303959833862e-13 -1.5707963267948563679" />
<geometry>
<mesh filename="package://hephaestus_description/meshes/m3_6mm.stl"/>
</geometry>
<material name="m3_6mm_material">
<color rgba="0.90196078431372550543 0.90196078431372550543 0.90196078431372550543 1.0"/>
</material>
</visual>
<collision>
<origin xyz="-0.011875000000009121315 0.29956810333989980499 -0.014000000000020232371" rpy="-3.1415926535897753524 -1.6409096303959833862e-13 -1.5707963267948563679" />
<geometry>
<mesh filename="package://hephaestus_description/meshes/m3_6mm.stl"/>
</geometry>
</collision>
<visual>
<origin xyz="-8.2425016652094676389e-15 0.27900000000001479172 -0.05900000000002365852" rpy="-1.5707963267948155117 1.0547118733947502887e-15 -3.1415926535897593652" />
<geometry>
<mesh filename="package://hephaestus_description/meshes/mg4036e-i36-14.stl"/>
</geometry>
<material name="mg4036e-i36-14_material">
<color rgba="0.30196078431372547213 0.30196078431372547213 0.30196078431372547213 1.0"/>
</material>
</visual>
<collision>
<origin xyz="-8.2425016652094676389e-15 0.27900000000001479172 -0.05900000000002365852" rpy="-1.5707963267948155117 1.0547118733947502887e-15 -3.1415926535897593652" />
<geometry>
<mesh filename="package://hephaestus_description/meshes/mg4036e-i36-14.stl"/>
</geometry>
</collision>
<visual>
<origin xyz="-0.0045000000000012000886 0.044000000000002370548 -0.01350000000000371736" rpy="1.5707963267949309749 -1.5707963267948308328 0" />
<geometry>
<mesh filename="package://hephaestus_description/meshes/m3_8mm.stl"/>
</geometry>
<material name="m3_8mm_material">
<color rgba="0.90196078431372550543 0.90196078431372550543 0.90196078431372550543 1.0"/>
</material>
</visual>
<collision>
<origin xyz="-0.0045000000000012000886 0.044000000000002370548 -0.01350000000000371736" rpy="1.5707963267949309749 -1.5707963267948308328 0" />
<geometry>
<mesh filename="package://hephaestus_description/meshes/m3_8mm.stl"/>
</geometry>
</collision>
<visual>
<origin xyz="-0.0083434588481226552165 -0.025678525939971275083 -0.0089999999999988283816" rpy="-7.1609385088329538833e-15 -3.5305092183079813902e-14 1.5707963267949245356" />
<geometry>
<mesh filename="package://hephaestus_description/meshes/m3_22mm.stl"/>
</geometry>
<material name="m3_22mm_material">
<color rgba="0.90196078431372550543 0.90196078431372550543 0.90196078431372550543 1.0"/>
</material>
</visual>
<collision>
<origin xyz="-0.0083434588481226552165 -0.025678525939971275083 -0.0089999999999988283816" rpy="-7.1609385088329538833e-15 -3.5305092183079813902e-14 1.5707963267949245356" />
<geometry>
<mesh filename="package://hephaestus_description/meshes/m3_22mm.stl"/>
</geometry>
</collision>
<visual>
<origin xyz="0.0044999999999985529006 0.044000000000003147704 -0.0045000000000025644487" rpy="1.5707963267949309749 -1.5707963267948308328 0" />
<geometry>
<mesh filename="package://hephaestus_description/meshes/m3_8mm.stl"/>
</geometry>
<material name="m3_8mm_material">
<color rgba="0.90196078431372550543 0.90196078431372550543 0.90196078431372550543 1.0"/>
</material>
</visual>
<collision>
<origin xyz="0.0044999999999985529006 0.044000000000003147704 -0.0045000000000025644487" rpy="1.5707963267949309749 -1.5707963267948308328 0" />
<geometry>
<mesh filename="package://hephaestus_description/meshes/m3_8mm.stl"/>
</geometry>
</collision>
<visual>
<origin xyz="0.013999999999998657615 0.038000000000000921929 -1.5890067039947552985e-15" rpy="-3.1415926535897802374 -6.4274194148478897212e-14 -1.5707963267948632513" />
<geometry>
<mesh filename="package://hephaestus_description/meshes/m3_20mm.stl"/>
</geometry>
<material name="m3_20mm_material">
<color rgba="0.90196078431372550543 0.90196078431372550543 0.90196078431372550543 1.0"/>
</material>
</visual>
<collision>
<origin xyz="0.013999999999998657615 0.038000000000000921929 -1.5890067039947552985e-15" rpy="-3.1415926535897802374 -6.4274194148478897212e-14 -1.5707963267948632513" />
<geometry>
<mesh filename="package://hephaestus_description/meshes/m3_20mm.stl"/>
</geometry>
</collision>
<visual>
<origin xyz="0.021843458848123643856 -0.015870201811897521882 -0.0089999999999988977706" rpy="-7.105427357601697634e-15 -3.4638958368304726289e-14 1.5707963267949245356" />
<geometry>
<mesh filename="package://hephaestus_description/meshes/m3_22mm.stl"/>
</geometry>
<material name="m3_22mm_material">
<color rgba="0.90196078431372550543 0.90196078431372550543 0.90196078431372550543 1.0"/>
</material>
</visual>
<collision>
<origin xyz="0.021843458848123643856 -0.015870201811897521882 -0.0089999999999988977706" rpy="-7.105427357601697634e-15 -3.4638958368304726289e-14 1.5707963267949245356" />
<geometry>
<mesh filename="package://hephaestus_description/meshes/m3_22mm.stl"/>
</geometry>
</collision>
<visual>
<origin xyz="-8.2425016652094676389e-15 0.27900000000001479172 -0.05900000000002365852" rpy="-1.5707963267948155117 1.0547118733947502887e-15 -3.1415926535897593652" />
<geometry>
<mesh filename="package://hephaestus_description/meshes/mg4036e-i36-17.stl"/>
</geometry>
<material name="mg4036e-i36-17_material">
<color rgba="0.30196078431372547213 0.30196078431372547213 0.30196078431372547213 1.0"/>
</material>
</visual>
<collision>
<origin xyz="-8.2425016652094676389e-15 0.27900000000001479172 -0.05900000000002365852" rpy="-1.5707963267948155117 1.0547118733947502887e-15 -3.1415926535897593652" />
<geometry>
<mesh filename="package://hephaestus_description/meshes/mg4036e-i36-17.stl"/>
</geometry>
</collision>
<visual>
<origin xyz="-0.0045000000000012243748 0.04400000000000292566 -0.0045000000000027448599" rpy="1.5707963267949309749 -1.5707963267948308328 0" />
<geometry>
<mesh filename="package://hephaestus_description/meshes/m3_8mm.stl"/>
</geometry>
<material name="m3_8mm_material">
<color rgba="0.90196078431372550543 0.90196078431372550543 0.90196078431372550543 1.0"/>
</material>
</visual>
<collision>
<origin xyz="-0.0045000000000012243748 0.04400000000000292566 -0.0045000000000027448599" rpy="1.5707963267949309749 -1.5707963267948308328 0" />
<geometry>
<mesh filename="package://hephaestus_description/meshes/m3_8mm.stl"/>
</geometry>
</collision>
<visual>
<origin xyz="-8.2425016652094676389e-15 0.27900000000001479172 -0.05900000000002365852" rpy="-1.5707963267948155117 1.0547118733947502887e-15 -3.1415926535897593652" />
<geometry>
<mesh filename="package://hephaestus_description/meshes/mg4036e-i36-13.stl"/>
</geometry>
<material name="mg4036e-i36-13_material">
<color rgba="0.30196078431372547213 0.30196078431372547213 0.30196078431372547213 1.0"/>
</material>
</visual>
<collision>
<origin xyz="-8.2425016652094676389e-15 0.27900000000001479172 -0.05900000000002365852" rpy="-1.5707963267948155117 1.0547118733947502887e-15 -3.1415926535897593652" />
<geometry>
<mesh filename="package://hephaestus_description/meshes/mg4036e-i36-13.stl"/>
</geometry>
</collision>
<visual>
<origin xyz="-8.2425016652094676389e-15 0.27900000000001479172 -0.05900000000002365852" rpy="-1.5707963267948155117 1.0547118733947502887e-15 -3.1415926535897593652" />
<geometry>
<mesh filename="package://hephaestus_description/meshes/mg4036e-i36-12.stl"/>
</geometry>
<material name="mg4036e-i36-12_material">
<color rgba="0.90196078431372550543 0.90196078431372550543 0.90196078431372550543 1.0"/>
</material>
</visual>
<collision>
<origin xyz="-8.2425016652094676389e-15 0.27900000000001479172 -0.05900000000002365852" rpy="-1.5707963267948155117 1.0547118733947502887e-15 -3.1415926535897593652" />
<geometry>
<mesh filename="package://hephaestus_description/meshes/mg4036e-i36-12.stl"/>
</geometry>
</collision>
<visual>
<origin xyz="-8.2425016652094676389e-15 0.27900000000001479172 -0.05900000000002365852" rpy="-1.5707963267948155117 1.0547118733947502887e-15 -3.1415926535897593652" />
<geometry>
<mesh filename="package://hephaestus_description/meshes/mg4036e-i36-6.stl"/>
</geometry>
<material name="mg4036e-i36-6_material">
<color rgba="0.90196078431372550543 0.90196078431372550543 0.90196078431372550543 1.0"/>
</material>
</visual>
<collision>
<origin xyz="-8.2425016652094676389e-15 0.27900000000001479172 -0.05900000000002365852" rpy="-1.5707963267948155117 1.0547118733947502887e-15 -3.1415926535897593652" />
<geometry>
<mesh filename="package://hephaestus_description/meshes/mg4036e-i36-6.stl"/>
</geometry>
</collision>
<visual>
<origin xyz="-8.2425016652094676389e-15 0.27900000000001479172 -0.05900000000002365852" rpy="-1.5707963267948155117 1.0547118733947502887e-15 -3.1415926535897593652" />
<geometry>
<mesh filename="package://hephaestus_description/meshes/mg4036e-i36-1.stl"/>
</geometry>
<material name="mg4036e-i36-1_material">
<color rgba="0.90196078431372550543 0.90196078431372550543 0.90196078431372550543 1.0"/>
</material>
</visual>
<collision>
<origin xyz="-8.2425016652094676389e-15 0.27900000000001479172 -0.05900000000002365852" rpy="-1.5707963267948155117 1.0547118733947502887e-15 -3.1415926535897593652" />
<geometry>
<mesh filename="package://hephaestus_description/meshes/mg4036e-i36-1.stl"/>
</geometry>
</collision>
<visual>
<origin xyz="-8.2425016652094676389e-15 0.27900000000001479172 -0.05900000000002365852" rpy="-1.5707963267948155117 1.0547118733947502887e-15 -3.1415926535897593652" />
<geometry>
<mesh filename="package://hephaestus_description/meshes/mg4036e-i36-11.stl"/>
</geometry>
<material name="mg4036e-i36-11_material">
<color rgba="0.30196078431372547213 0.30196078431372547213 0.30196078431372547213 1.0"/>
</material>
</visual>
<collision>
<origin xyz="-8.2425016652094676389e-15 0.27900000000001479172 -0.05900000000002365852" rpy="-1.5707963267948155117 1.0547118733947502887e-15 -3.1415926535897593652" />
<geometry>
<mesh filename="package://hephaestus_description/meshes/mg4036e-i36-11.stl"/>
</geometry>
</collision>
<visual>
<origin xyz="-0.010392304845420741871 0.25250000000001449063 -0.036000000000019627411" rpy="1.570796326794931197 -1.5707963267948308328 0" />
<geometry>
<mesh filename="package://hephaestus_description/meshes/m4_8mm.stl"/>
</geometry>
<material name="m4_8mm_material">
<color rgba="0.90196078431372550543 0.90196078431372550543 0.90196078431372550543 1.0"/>
</material>
</visual>
<collision>
<origin xyz="-0.010392304845420741871 0.25250000000001449063 -0.036000000000019627411" rpy="1.570796326794931197 -1.5707963267948308328 0" />
<geometry>
<mesh filename="package://hephaestus_description/meshes/m4_8mm.stl"/>
</geometry>
</collision>
<visual>
<origin xyz="-0.011875000000007808129 0.25843189666013621775 -0.014000000000017574775" rpy="-3.1415926535897753524 -1.6409096303959833862e-13 -1.5707963267948563679" />
<geometry>
<mesh filename="package://hephaestus_description/meshes/m3_6mm.stl"/>
</geometry>
<material name="m3_6mm_material">
<color rgba="0.90196078431372550543 0.90196078431372550543 0.90196078431372550543 1.0"/>
</material>
</visual>
<collision>
<origin xyz="-0.011875000000007808129 0.25843189666013621775 -0.014000000000017574775" rpy="-3.1415926535897753524 -1.6409096303959833862e-13 -1.5707963267948563679" />
<geometry>
<mesh filename="package://hephaestus_description/meshes/m3_6mm.stl"/>
</geometry>
</collision>
<visual>
<origin xyz="-0.021843458848123654265 0.01587020181189696677 -0.0090000000000017149615" rpy="-7.105427357601697634e-15 -3.4638958368304726289e-14 1.5707963267949245356" />
<geometry>
<mesh filename="package://hephaestus_description/meshes/m3_22mm.stl"/>
</geometry>
<material name="m3_22mm_material">
<color rgba="0.90196078431372550543 0.90196078431372550543 0.90196078431372550543 1.0"/>
</material>
</visual>
<collision>
<origin xyz="-0.021843458848123654265 0.01587020181189696677 -0.0090000000000017149615" rpy="-7.105427357601697634e-15 -3.4638958368304726289e-14 1.5707963267949245356" />
<geometry>
<mesh filename="package://hephaestus_description/meshes/m3_22mm.stl"/>
</geometry>
</collision>
<visual>
<origin xyz="-8.2425016652094676389e-15 0.27900000000001479172 -0.05900000000002365852" rpy="-1.5707963267948155117 1.0547118733947502887e-15 -3.1415926535897593652" />
<geometry>
<mesh filename="package://hephaestus_description/meshes/mg4036e-i36-19.stl"/>
</geometry>
<material name="mg4036e-i36-19_material">
<color rgba="0.90196078431372550543 0.90196078431372550543 0.90196078431372550543 1.0"/>
</material>
</visual>
<collision>
<origin xyz="-8.2425016652094676389e-15 0.27900000000001479172 -0.05900000000002365852" rpy="-1.5707963267948155117 1.0547118733947502887e-15 -3.1415926535897593652" />
<geometry>
<mesh filename="package://hephaestus_description/meshes/mg4036e-i36-19.stl"/>
</geometry>
</collision>
<visual>
<origin xyz="0.015870201811895794097 0.021843458848125274496 -0.0090000000000014304669" rpy="-7.4940054162204898014e-15 -3.3528735343679525572e-14 1.5707963267949245356" />
<geometry>
<mesh filename="package://hephaestus_description/meshes/m3_22mm.stl"/>
</geometry>
<material name="m3_22mm_material">
<color rgba="0.90196078431372550543 0.90196078431372550543 0.90196078431372550543 1.0"/>
</material>
</visual>
<collision>
<origin xyz="0.015870201811895794097 0.021843458848125274496 -0.0090000000000014304669" rpy="-7.4940054162204898014e-15 -3.3528735343679525572e-14 1.5707963267949245356" />
<geometry>
<mesh filename="package://hephaestus_description/meshes/m3_22mm.stl"/>
</geometry>
</collision>
<visual>
<origin xyz="-8.2425016652094676389e-15 0.27900000000001479172 -0.05900000000002365852" rpy="-1.5707963267948155117 1.0547118733947502887e-15 -3.1415926535897593652" />
<geometry>
<mesh filename="package://hephaestus_description/meshes/mg4036e-i36-18.stl"/>
</geometry>
<material name="mg4036e-i36-18_material">
<color rgba="0.30196078431372547213 0.30196078431372547213 0.30196078431372547213 1.0"/>
</material>
</visual>
<collision>
<origin xyz="-8.2425016652094676389e-15 0.27900000000001479172 -0.05900000000002365852" rpy="-1.5707963267948155117 1.0547118733947502887e-15 -3.1415926535897593652" />
<geometry>
<mesh filename="package://hephaestus_description/meshes/mg4036e-i36-18.stl"/>
</geometry>
</collision>
<inertial>
<origin xyz="-5.4396035183692994109e-06 0.16881349815268181791 -0.03538851760249715761" rpy="0 0 0"/>
<mass value="0.92830831261165880353" />
<inertia ixx="0.010320001651904300161" ixy="5.4127235078316971055e-07"  ixz="-1.7449090270232174806e-07" iyy="0.00040515648217119147774" iyz="0.00062710413620039153273" izz="0.010229716060720333085" />
</inertial>
</link>

<link name="link5">
<visual>
<origin xyz="0.01200000000000156497 -1.6977627382098668406e-16 -0.013999999999999040989" rpy="-8.604228440831308006e-16 -5.0515147620444597346e-14 -4.3576253716534925077e-15" />
<geometry>
<mesh filename="package://hephaestus_description/meshes/m4_18mm.stl"/>
</geometry>
<material name="m4_18mm_material">
<color rgba="0.90196078431372550543 0.90196078431372550543 0.90196078431372550543 1.0"/>
</material>
</visual>
<collision>
<origin xyz="0.01200000000000156497 -1.6977627382098668406e-16 -0.013999999999999040989" rpy="-8.604228440831308006e-16 -5.0515147620444597346e-14 -4.3576253716534925077e-15" />
<geometry>
<mesh filename="package://hephaestus_description/meshes/m4_18mm.stl"/>
</geometry>
</collision>
<visual>
<origin xyz="0.017000000000004455991 8.0697220122652347381e-16 -0.0405000000000008617" rpy="3.1415926535897402694 9.4988410732511302302e-15 1.5707963267948943376" />
<geometry>
<mesh filename="package://hephaestus_description/meshes/mg4036e-i36-9.stl"/>
</geometry>
<material name="mg4036e-i36-9_material">
<color rgba="0.30196078431372547213 0.30196078431372547213 0.30196078431372547213 1.0"/>
</material>
</visual>
<collision>
<origin xyz="0.017000000000004455991 8.0697220122652347381e-16 -0.0405000000000008617" rpy="3.1415926535897402694 9.4988410732511302302e-15 1.5707963267948943376" />
<geometry>
<mesh filename="package://hephaestus_description/meshes/mg4036e-i36-9.stl"/>
</geometry>
</collision>
<visual>
<origin xyz="-0.027999999999995917044 -0.011874999999996957434 -0.061068103339887623571" rpy="2.2093438190040747683e-14 1.5707963267947926411 0" />
<geometry>
<mesh filename="package://hephaestus_description/meshes/m3_6mm.stl"/>
</geometry>
<material name="m3_6mm_material">
<color rgba="0.90196078431372550543 0.90196078431372550543 0.90196078431372550543 1.0"/>
</material>
</visual>
<collision>
<origin xyz="-0.027999999999995917044 -0.011874999999996957434 -0.061068103339887623571" rpy="2.2093438190040747683e-14 1.5707963267947926411 0" />
<geometry>
<mesh filename="package://hephaestus_description/meshes/m3_6mm.stl"/>
</geometry>
</collision>
<visual>
<origin xyz="-0.028000000000000357936 -0.011874999999998539502 -0.019931896660123224474" rpy="2.2093438190040747683e-14 1.5707963267947926411 0" />
<geometry>
<mesh filename="package://hephaestus_description/meshes/m3_6mm.stl"/>
</geometry>
<material name="m3_6mm_material">
<color rgba="0.90196078431372550543 0.90196078431372550543 0.90196078431372550543 1.0"/>
</material>
</visual>
<collision>
<origin xyz="-0.028000000000000357936 -0.011874999999998539502 -0.019931896660123224474" rpy="2.2093438190040747683e-14 1.5707963267947926411 0" />
<geometry>
<mesh filename="package://hephaestus_description/meshes/m3_6mm.stl"/>
</geometry>
</collision>
<visual>
<origin xyz="0.017000000000004455991 8.0697220122652347381e-16 -0.0405000000000008617" rpy="3.1415926535897402694 9.4988410732511302302e-15 1.5707963267948943376" />
<geometry>
<mesh filename="package://hephaestus_description/meshes/mg4036e-i36-2.stl"/>
</geometry>
<material name="mg4036e-i36-2_material">
<color rgba="0.90196078431372550543 0.90196078431372550543 0.90196078431372550543 1.0"/>
</material>
</visual>
<collision>
<origin xyz="0.017000000000004455991 8.0697220122652347381e-16 -0.0405000000000008617" rpy="3.1415926535897402694 9.4988410732511302302e-15 1.5707963267948943376" />
<geometry>
<mesh filename="package://hephaestus_description/meshes/mg4036e-i36-2.stl"/>
</geometry>
</collision>
<visual>
<origin xyz="0.017000000000004455991 8.0697220122652347381e-16 -0.0405000000000008617" rpy="3.1415926535897402694 9.4988410732511302302e-15 1.5707963267948943376" />
<geometry>
<mesh filename="package://hephaestus_description/meshes/mg4036e-i36-6.stl"/>
</geometry>
<material name="mg4036e-i36-6_material">
<color rgba="0.90196078431372550543 0.90196078431372550543 0.90196078431372550543 1.0"/>
</material>
</visual>
<collision>
<origin xyz="0.017000000000004455991 8.0697220122652347381e-16 -0.0405000000000008617" rpy="3.1415926535897402694 9.4988410732511302302e-15 1.5707963267948943376" />
<geometry>
<mesh filename="package://hephaestus_description/meshes/mg4036e-i36-6.stl"/>
</geometry>
</collision>
<visual>
<origin xyz="0.017000000000004455991 8.0697220122652347381e-16 -0.0405000000000008617" rpy="3.1415926535897402694 9.4988410732511302302e-15 1.5707963267948943376" />
<geometry>
<mesh filename="package://hephaestus_description/meshes/mg4036e-i36-15.stl"/>
</geometry>
<material name="mg4036e-i36-15_material">
<color rgba="0.30196078431372547213 0.30196078431372547213 0.30196078431372547213 1.0"/>
</material>
</visual>
<collision>
<origin xyz="0.017000000000004455991 8.0697220122652347381e-16 -0.0405000000000008617" rpy="3.1415926535897402694 9.4988410732511302302e-15 1.5707963267948943376" />
<geometry>
<mesh filename="package://hephaestus_description/meshes/mg4036e-i36-15.stl"/>
</geometry>
</collision>
<visual>
<origin xyz="0.017000000000004455991 8.0697220122652347381e-16 -0.0405000000000008617" rpy="3.1415926535897402694 9.4988410732511302302e-15 1.5707963267948943376" />
<geometry>
<mesh filename="package://hephaestus_description/meshes/mg4036e-i36-14.stl"/>
</geometry>
<material name="mg4036e-i36-14_material">
<color rgba="0.30196078431372547213 0.30196078431372547213 0.30196078431372547213 1.0"/>
</material>
</visual>
<collision>
<origin xyz="0.017000000000004455991 8.0697220122652347381e-16 -0.0405000000000008617" rpy="3.1415926535897402694 9.4988410732511302302e-15 1.5707963267948943376" />
<geometry>
<mesh filename="package://hephaestus_description/meshes/mg4036e-i36-14.stl"/>
</geometry>
</collision>
<visual>
<origin xyz="0.017000000000004455991 8.0697220122652347381e-16 -0.0405000000000008617" rpy="3.1415926535897402694 9.4988410732511302302e-15 1.5707963267948943376" />
<geometry>
<mesh filename="package://hephaestus_description/meshes/mg4036e-i36-1.stl"/>
</geometry>
<material name="mg4036e-i36-1_material">
<color rgba="0.90196078431372550543 0.90196078431372550543 0.90196078431372550543 1.0"/>
</material>
</visual>
<collision>
<origin xyz="0.017000000000004455991 8.0697220122652347381e-16 -0.0405000000000008617" rpy="3.1415926535897402694 9.4988410732511302302e-15 1.5707963267948943376" />
<geometry>
<mesh filename="package://hephaestus_description/meshes/mg4036e-i36-1.stl"/>
</geometry>
</collision>
<visual>
<origin xyz="0.017000000000004455991 8.0697220122652347381e-16 -0.0405000000000008617" rpy="3.1415926535897402694 9.4988410732511302302e-15 1.5707963267948943376" />
<geometry>
<mesh filename="package://hephaestus_description/meshes/mg4036e-i36-5.stl"/>
</geometry>
<material name="mg4036e-i36-5_material">
<color rgba="0.90196078431372550543 0.90196078431372550543 0.90196078431372550543 1.0"/>
</material>
</visual>
<collision>
<origin xyz="0.017000000000004455991 8.0697220122652347381e-16 -0.0405000000000008617" rpy="3.1415926535897402694 9.4988410732511302302e-15 1.5707963267948943376" />
<geometry>
<mesh filename="package://hephaestus_description/meshes/mg4036e-i36-5.stl"/>
</geometry>
</collision>
<visual>
<origin xyz="0.017000000000004455991 8.0697220122652347381e-16 -0.0405000000000008617" rpy="3.1415926535897402694 9.4988410732511302302e-15 1.5707963267948943376" />
<geometry>
<mesh filename="package://hephaestus_description/meshes/mg4036e-i36-30.stl"/>
</geometry>
<material name="mg4036e-i36-30_material">
<color rgba="0.30196078431372547213 0.30196078431372547213 0.30196078431372547213 1.0"/>
</material>
</visual>
<collision>
<origin xyz="0.017000000000004455991 8.0697220122652347381e-16 -0.0405000000000008617" rpy="3.1415926535897402694 9.4988410732511302302e-15 1.5707963267948943376" />
<geometry>
<mesh filename="package://hephaestus_description/meshes/mg4036e-i36-30.stl"/>
</geometry>
</collision>
<visual>
<origin xyz="0.017000000000004455991 8.0697220122652347381e-16 -0.0405000000000008617" rpy="3.1415926535897402694 9.4988410732511302302e-15 1.5707963267948943376" />
<geometry>
<mesh filename="package://hephaestus_description/meshes/mg4036e-i36-23.stl"/>
</geometry>
<material name="mg4036e-i36-23_material">
<color rgba="1 1 1 1.0"/>
</material>
</visual>
<collision>
<origin xyz="0.017000000000004455991 8.0697220122652347381e-16 -0.0405000000000008617" rpy="3.1415926535897402694 9.4988410732511302302e-15 1.5707963267948943376" />
<geometry>
<mesh filename="package://hephaestus_description/meshes/mg4036e-i36-23.stl"/>
</geometry>
</collision>
<visual>
<origin xyz="0.017000000000004455991 8.0697220122652347381e-16 -0.0405000000000008617" rpy="3.1415926535897402694 9.4988410732511302302e-15 1.5707963267948943376" />
<geometry>
<mesh filename="package://hephaestus_description/meshes/mg4036e-i36-28.stl"/>
</geometry>
<material name="mg4036e-i36-28_material">
<color rgba="1 1 1 1.0"/>
</material>
</visual>
<collision>
<origin xyz="0.017000000000004455991 8.0697220122652347381e-16 -0.0405000000000008617" rpy="3.1415926535897402694 9.4988410732511302302e-15 1.5707963267948943376" />
<geometry>
<mesh filename="package://hephaestus_description/meshes/mg4036e-i36-28.stl"/>
</geometry>
</collision>
<visual>
<origin xyz="0.017000000000004455991 8.0697220122652347381e-16 -0.0405000000000008617" rpy="3.1415926535897402694 9.4988410732511302302e-15 1.5707963267948943376" />
<geometry>
<mesh filename="package://hephaestus_description/meshes/mg4036e-i36-16.stl"/>
</geometry>
<material name="mg4036e-i36-16_material">
<color rgba="0.30196078431372547213 0.30196078431372547213 0.30196078431372547213 1.0"/>
</material>
</visual>
<collision>
<origin xyz="0.017000000000004455991 8.0697220122652347381e-16 -0.0405000000000008617" rpy="3.1415926535897402694 9.4988410732511302302e-15 1.5707963267948943376" />
<geometry>
<mesh filename="package://hephaestus_description/meshes/mg4036e-i36-16.stl"/>
</geometry>
</collision>
<visual>
<origin xyz="0.017000000000004455991 8.0697220122652347381e-16 -0.0405000000000008617" rpy="3.1415926535897402694 9.4988410732511302302e-15 1.5707963267948943376" />
<geometry>
<mesh filename="package://hephaestus_description/meshes/mg4036e-i36-22.stl"/>
</geometry>
<material name="mg4036e-i36-22_material">
<color rgba="1 1 1 1.0"/>
</material>
</visual>
<collision>
<origin xyz="0.017000000000004455991 8.0697220122652347381e-16 -0.0405000000000008617" rpy="3.1415926535897402694 9.4988410732511302302e-15 1.5707963267948943376" />
<geometry>
<mesh filename="package://hephaestus_description/meshes/mg4036e-i36-22.stl"/>
</geometry>
</collision>
<visual>
<origin xyz="-0.0059999999999995612399 -0.010392304845412926942 -0.014000000000000907552" rpy="-4.9960036107994585306e-16 -5.118128143521969127e-14 -4.3298697960378635942e-15" />
<geometry>
<mesh filename="package://hephaestus_description/meshes/m4_18mm.stl"/>
</geometry>
<material name="m4_18mm_material">
<color rgba="0.90196078431372550543 0.90196078431372550543 0.90196078431372550543 1.0"/>
</material>
</visual>
<collision>
<origin xyz="-0.0059999999999995612399 -0.010392304845412926942 -0.014000000000000907552" rpy="-4.9960036107994585306e-16 -5.118128143521969127e-14 -4.3298697960378635942e-15" />
<geometry>
<mesh filename="package://hephaestus_description/meshes/m4_18mm.stl"/>
</geometry>
</collision>
<visual>
<origin xyz="0.017000000000004455991 8.0697220122652347381e-16 -0.0405000000000008617" rpy="3.1415926535897402694 9.4988410732511302302e-15 1.5707963267948943376" />
<geometry>
<mesh filename="package://hephaestus_description/meshes/mg4036e-i36-24.stl"/>
</geometry>
<material name="mg4036e-i36-24_material">
<color rgba="0.30196078431372547213 0.30196078431372547213 0.30196078431372547213 1.0"/>
</material>
</visual>
<collision>
<origin xyz="0.017000000000004455991 8.0697220122652347381e-16 -0.0405000000000008617" rpy="3.1415926535897402694 9.4988410732511302302e-15 1.5707963267948943376" />
<geometry>
<mesh filename="package://hephaestus_description/meshes/mg4036e-i36-24.stl"/>
</geometry>
</collision>
<visual>
<origin xyz="0.017000000000004455991 8.0697220122652347381e-16 -0.0405000000000008617" rpy="3.1415926535897402694 9.4988410732511302302e-15 1.5707963267948943376" />
<geometry>
<mesh filename="package://hephaestus_description/meshes/mg4036e-i36-27.stl"/>
</geometry>
<material name="mg4036e-i36-27_material">
<color rgba="0.30196078431372547213 0.30196078431372547213 0.30196078431372547213 1.0"/>
</material>
</visual>
<collision>
<origin xyz="0.017000000000004455991 8.0697220122652347381e-16 -0.0405000000000008617" rpy="3.1415926535897402694 9.4988410732511302302e-15 1.5707963267948943376" />
<geometry>
<mesh filename="package://hephaestus_description/meshes/mg4036e-i36-27.stl"/>
</geometry>
</collision>
<visual>
<origin xyz="0.017000000000004455991 8.0697220122652347381e-16 -0.0405000000000008617" rpy="3.1415926535897402694 9.4988410732511302302e-15 1.5707963267948943376" />
<geometry>
<mesh filename="package://hephaestus_description/meshes/mg4036e-i36-12.stl"/>
</geometry>
<material name="mg4036e-i36-12_material">
<color rgba="0.90196078431372550543 0.90196078431372550543 0.90196078431372550543 1.0"/>
</material>
</visual>
<collision>
<origin xyz="0.017000000000004455991 8.0697220122652347381e-16 -0.0405000000000008617" rpy="3.1415926535897402694 9.4988410732511302302e-15 1.5707963267948943376" />
<geometry>
<mesh filename="package://hephaestus_description/meshes/mg4036e-i36-12.stl"/>
</geometry>
</collision>
<visual>
<origin xyz="0.017000000000004455991 8.0697220122652347381e-16 -0.0405000000000008617" rpy="3.1415926535897402694 9.4988410732511302302e-15 1.5707963267948943376" />
<geometry>
<mesh filename="package://hephaestus_description/meshes/mg4036e-i36-19.stl"/>
</geometry>
<material name="mg4036e-i36-19_material">
<color rgba="0.90196078431372550543 0.90196078431372550543 0.90196078431372550543 1.0"/>
</material>
</visual>
<collision>
<origin xyz="0.017000000000004455991 8.0697220122652347381e-16 -0.0405000000000008617" rpy="3.1415926535897402694 9.4988410732511302302e-15 1.5707963267948943376" />
<geometry>
<mesh filename="package://hephaestus_description/meshes/mg4036e-i36-19.stl"/>
</geometry>
</collision>
<visual>
<origin xyz="-0.021999999999997688072 2.7424439168582286525e-15 -0.040500000000007176093" rpy="1.570796326794981379 6.9326993675135547387e-14 -1.5707963267949183184" />
<geometry>
<mesh filename="package://hephaestus_description/meshes/mg4036i36_bracket.stl"/>
</geometry>
<material name="mg4036i36_bracket_material">
<color rgba="0.90196078431372550543 0.90196078431372550543 0.90196078431372550543 1.0"/>
</material>
</visual>
<collision>
<origin xyz="-0.021999999999997688072 2.7424439168582286525e-15 -0.040500000000007176093" rpy="1.570796326794981379 6.9326993675135547387e-14 -1.5707963267949183184" />
<geometry>
<mesh filename="package://hephaestus_description/meshes/mg4036i36_bracket.stl"/>
</geometry>
</collision>
<visual>
<origin xyz="0.017000000000004455991 8.0697220122652347381e-16 -0.0405000000000008617" rpy="3.1415926535897402694 9.4988410732511302302e-15 1.5707963267948943376" />
<geometry>
<mesh filename="package://hephaestus_description/meshes/mg4036e-i36-8.stl"/>
</geometry>
<material name="mg4036e-i36-8_material">
<color rgba="0.30196078431372547213 0.30196078431372547213 0.30196078431372547213 1.0"/>
</material>
</visual>
<collision>
<origin xyz="0.017000000000004455991 8.0697220122652347381e-16 -0.0405000000000008617" rpy="3.1415926535897402694 9.4988410732511302302e-15 1.5707963267948943376" />
<geometry>
<mesh filename="package://hephaestus_description/meshes/mg4036e-i36-8.stl"/>
</geometry>
</collision>
<visual>
<origin xyz="0.017000000000004455991 8.0697220122652347381e-16 -0.0405000000000008617" rpy="3.1415926535897402694 9.4988410732511302302e-15 1.5707963267948943376" />
<geometry>
<mesh filename="package://hephaestus_description/meshes/mg4036e-i36-11.stl"/>
</geometry>
<material name="mg4036e-i36-11_material">
<color rgba="0.30196078431372547213 0.30196078431372547213 0.30196078431372547213 1.0"/>
</material>
</visual>
<collision>
<origin xyz="0.017000000000004455991 8.0697220122652347381e-16 -0.0405000000000008617" rpy="3.1415926535897402694 9.4988410732511302302e-15 1.5707963267948943376" />
<geometry>
<mesh filename="package://hephaestus_description/meshes/mg4036e-i36-11.stl"/>
</geometry>
</collision>
<visual>
<origin xyz="-0.027999999999995139888 0.011875000000004133985 -0.061068103339887512548" rpy="2.1815882433884458548e-14 1.5707963267947926411 0" />
<geometry>
<mesh filename="package://hephaestus_description/meshes/m3_6mm.stl"/>
</geometry>
<material name="m3_6mm_material">
<color rgba="0.90196078431372550543 0.90196078431372550543 0.90196078431372550543 1.0"/>
</material>
</visual>
<collision>
<origin xyz="-0.027999999999995139888 0.011875000000004133985 -0.061068103339887512548" rpy="2.1815882433884458548e-14 1.5707963267947926411 0" />
<geometry>
<mesh filename="package://hephaestus_description/meshes/m3_6mm.stl"/>
</geometry>
</collision>
<visual>
<origin xyz="0 -9.7971743931837343444e-19 -0.0059999999999999983902" rpy="-2.4215535277519862751e-31 -0 0" />
<geometry>
<mesh filename="package://hephaestus_description/meshes/4036_output_type_a.stl"/>
</geometry>
<material name="4036_output_type_a_material">
<color rgba="0.90196078431372550543 0.90196078431372550543 0.90196078431372550543 1.0"/>
</material>
</visual>
<collision>
<origin xyz="0 -9.7971743931837343444e-19 -0.0059999999999999983902" rpy="-2.4215535277519862751e-31 -0 0" />
<geometry>
<mesh filename="package://hephaestus_description/meshes/4036_output_type_a.stl"/>
</geometry>
</collision>
<visual>
<origin xyz="0.017000000000004455991 8.0697220122652347381e-16 -0.0405000000000008617" rpy="3.1415926535897402694 9.4988410732511302302e-15 1.5707963267948943376" />
<geometry>
<mesh filename="package://hephaestus_description/meshes/mg4036e-i36-4.stl"/>
</geometry>
<material name="mg4036e-i36-4_material">
<color rgba="0.90196078431372550543 0.90196078431372550543 0.90196078431372550543 1.0"/>
</material>
</visual>
<collision>
<origin xyz="0.017000000000004455991 8.0697220122652347381e-16 -0.0405000000000008617" rpy="3.1415926535897402694 9.4988410732511302302e-15 1.5707963267948943376" />
<geometry>
<mesh filename="package://hephaestus_description/meshes/mg4036e-i36-4.stl"/>
</geometry>
</collision>
<visual>
<origin xyz="0.017000000000004455991 8.0697220122652347381e-16 -0.0405000000000008617" rpy="3.1415926535897402694 9.4988410732511302302e-15 1.5707963267948943376" />
<geometry>
<mesh filename="package://hephaestus_description/meshes/mg4036e-i36-18.stl"/>
</geometry>
<material name="mg4036e-i36-18_material">
<color rgba="0.30196078431372547213 0.30196078431372547213 0.30196078431372547213 1.0"/>
</material>
</visual>
<collision>
<origin xyz="0.017000000000004455991 8.0697220122652347381e-16 -0.0405000000000008617" rpy="3.1415926535897402694 9.4988410732511302302e-15 1.5707963267948943376" />
<geometry>
<mesh filename="package://hephaestus_description/meshes/mg4036e-i36-18.stl"/>
</geometry>
</collision>
<visual>
<origin xyz="0.017000000000004455991 8.0697220122652347381e-16 -0.0405000000000008617" rpy="3.1415926535897402694 9.4988410732511302302e-15 1.5707963267948943376" />
<geometry>
<mesh filename="package://hephaestus_description/meshes/mg4036e-i36-26.stl"/>
</geometry>
<material name="mg4036e-i36-26_material">
<color rgba="1 1 1 1.0"/>
</material>
</visual>
<collision>
<origin xyz="0.017000000000004455991 8.0697220122652347381e-16 -0.0405000000000008617" rpy="3.1415926535897402694 9.4988410732511302302e-15 1.5707963267948943376" />
<geometry>
<mesh filename="package://hephaestus_description/meshes/mg4036e-i36-26.stl"/>
</geometry>
</collision>
<visual>
<origin xyz="0.017000000000004455991 8.0697220122652347381e-16 -0.0405000000000008617" rpy="3.1415926535897402694 9.4988410732511302302e-15 1.5707963267948943376" />
<geometry>
<mesh filename="package://hephaestus_description/meshes/mg4036e-i36-25.stl"/>
</geometry>
<material name="mg4036e-i36-25_material">
<color rgba="1 1 1 1.0"/>
</material>
</visual>
<collision>
<origin xyz="0.017000000000004455991 8.0697220122652347381e-16 -0.0405000000000008617" rpy="3.1415926535897402694 9.4988410732511302302e-15 1.5707963267948943376" />
<geometry>
<mesh filename="package://hephaestus_description/meshes/mg4036e-i36-25.stl"/>
</geometry>
</collision>
<visual>
<origin xyz="0.017000000000004455991 8.0697220122652347381e-16 -0.0405000000000008617" rpy="3.1415926535897402694 9.4988410732511302302e-15 1.5707963267948943376" />
<geometry>
<mesh filename="package://hephaestus_description/meshes/mg4036e-i36-13.stl"/>
</geometry>
<material name="mg4036e-i36-13_material">
<color rgba="0.30196078431372547213 0.30196078431372547213 0.30196078431372547213 1.0"/>
</material>
</visual>
<collision>
<origin xyz="0.017000000000004455991 8.0697220122652347381e-16 -0.0405000000000008617" rpy="3.1415926535897402694 9.4988410732511302302e-15 1.5707963267948943376" />
<geometry>
<mesh filename="package://hephaestus_description/meshes/mg4036e-i36-13.stl"/>
</geometry>
</collision>
<visual>
<origin xyz="0.017000000000004455991 8.0697220122652347381e-16 -0.0405000000000008617" rpy="3.1415926535897402694 9.4988410732511302302e-15 1.5707963267948943376" />
<geometry>
<mesh filename="package://hephaestus_description/meshes/mg4036e-i36-17.stl"/>
</geometry>
<material name="mg4036e-i36-17_material">
<color rgba="0.30196078431372547213 0.30196078431372547213 0.30196078431372547213 1.0"/>
</material>
</visual>
<collision>
<origin xyz="0.017000000000004455991 8.0697220122652347381e-16 -0.0405000000000008617" rpy="3.1415926535897402694 9.4988410732511302302e-15 1.5707963267948943376" />
<geometry>
<mesh filename="package://hephaestus_description/meshes/mg4036e-i36-17.stl"/>
</geometry>
</collision>
<visual>
<origin xyz="0.017000000000004455991 8.0697220122652347381e-16 -0.0405000000000008617" rpy="3.1415926535897402694 9.4988410732511302302e-15 1.5707963267948943376" />
<geometry>
<mesh filename="package://hephaestus_description/meshes/mg4036e-i36-10.stl"/>
</geometry>
<material name="mg4036e-i36-10_material">
<color rgba="0.30196078431372547213 0.30196078431372547213 0.30196078431372547213 1.0"/>
</material>
</visual>
<collision>
<origin xyz="0.017000000000004455991 8.0697220122652347381e-16 -0.0405000000000008617" rpy="3.1415926535897402694 9.4988410732511302302e-15 1.5707963267948943376" />
<geometry>
<mesh filename="package://hephaestus_description/meshes/mg4036e-i36-10.stl"/>
</geometry>
</collision>
<visual>
<origin xyz="-0.027999999999999358735 0.011875000000002317729 -0.019931896660123092635" rpy="2.2093438190040747683e-14 1.5707963267947926411 0" />
<geometry>
<mesh filename="package://hephaestus_description/meshes/m3_6mm.stl"/>
</geometry>
<material name="m3_6mm_material">
<color rgba="0.90196078431372550543 0.90196078431372550543 0.90196078431372550543 1.0"/>
</material>
</visual>
<collision>
<origin xyz="-0.027999999999999358735 0.011875000000002317729 -0.019931896660123092635" rpy="2.2093438190040747683e-14 1.5707963267947926411 0" />
<geometry>
<mesh filename="package://hephaestus_description/meshes/m3_6mm.stl"/>
</geometry>
</collision>
<visual>
<origin xyz="0.017000000000004455991 8.0697220122652347381e-16 -0.0405000000000008617" rpy="3.1415926535897402694 9.4988410732511302302e-15 1.5707963267948943376" />
<geometry>
<mesh filename="package://hephaestus_description/meshes/mg4036e-i36-20.stl"/>
</geometry>
<material name="mg4036e-i36-20_material">
<color rgba="0.90196078431372550543 0.90196078431372550543 0.90196078431372550543 1.0"/>
</material>
</visual>
<collision>
<origin xyz="0.017000000000004455991 8.0697220122652347381e-16 -0.0405000000000008617" rpy="3.1415926535897402694 9.4988410732511302302e-15 1.5707963267948943376" />
<geometry>
<mesh filename="package://hephaestus_description/meshes/mg4036e-i36-20.stl"/>
</geometry>
</collision>
<visual>
<origin xyz="0.017000000000004455991 8.0697220122652347381e-16 -0.0405000000000008617" rpy="3.1415926535897402694 9.4988410732511302302e-15 1.5707963267948943376" />
<geometry>
<mesh filename="package://hephaestus_description/meshes/mg4036e-i36-3.stl"/>
</geometry>
<material name="mg4036e-i36-3_material">
<color rgba="0.90196078431372550543 0.90196078431372550543 0.90196078431372550543 1.0"/>
</material>
</visual>
<collision>
<origin xyz="0.017000000000004455991 8.0697220122652347381e-16 -0.0405000000000008617" rpy="3.1415926535897402694 9.4988410732511302302e-15 1.5707963267948943376" />
<geometry>
<mesh filename="package://hephaestus_description/meshes/mg4036e-i36-3.stl"/>
</geometry>
</collision>
<visual>
<origin xyz="0.017000000000004455991 8.0697220122652347381e-16 -0.0405000000000008617" rpy="3.1415926535897402694 9.4988410732511302302e-15 1.5707963267948943376" />
<geometry>
<mesh filename="package://hephaestus_description/meshes/mg4036e-i36-29.stl"/>
</geometry>
<material name="mg4036e-i36-29_material">
<color rgba="0.30196078431372547213 0.30196078431372547213 0.30196078431372547213 1.0"/>
</material>
</visual>
<collision>
<origin xyz="0.017000000000004455991 8.0697220122652347381e-16 -0.0405000000000008617" rpy="3.1415926535897402694 9.4988410732511302302e-15 1.5707963267948943376" />
<geometry>
<mesh filename="package://hephaestus_description/meshes/mg4036e-i36-29.stl"/>
</geometry>
</collision>
<visual>
<origin xyz="-0.027999999999998581579 -0.02374999999999810596 -0.040500000000005496881" rpy="2.2093438190040747683e-14 1.5707963267947926411 0" />
<geometry>
<mesh filename="package://hephaestus_description/meshes/m3_6mm.stl"/>
</geometry>
<material name="m3_6mm_material">
<color rgba="0.90196078431372550543 0.90196078431372550543 0.90196078431372550543 1.0"/>
</material>
</visual>
<collision>
<origin xyz="-0.027999999999998581579 -0.02374999999999810596 -0.040500000000005496881" rpy="2.2093438190040747683e-14 1.5707963267947926411 0" />
<geometry>
<mesh filename="package://hephaestus_description/meshes/m3_6mm.stl"/>
</geometry>
</collision>
<visual>
<origin xyz="0.017000000000004455991 8.0697220122652347381e-16 -0.0405000000000008617" rpy="3.1415926535897402694 9.4988410732511302302e-15 1.5707963267948943376" />
<geometry>
<mesh filename="package://hephaestus_description/meshes/mg4036e-i36-21.stl"/>
</geometry>
<material name="mg4036e-i36-21_material">
<color rgba="0.90196078431372550543 0.90196078431372550543 0.90196078431372550543 1.0"/>
</material>
</visual>
<collision>
<origin xyz="0.017000000000004455991 8.0697220122652347381e-16 -0.0405000000000008617" rpy="3.1415926535897402694 9.4988410732511302302e-15 1.5707963267948943376" />
<geometry>
<mesh filename="package://hephaestus_description/meshes/mg4036e-i36-21.stl"/>
</geometry>
</collision>
<visual>
<origin xyz="0.017000000000004455991 8.0697220122652347381e-16 -0.0405000000000008617" rpy="3.1415926535897402694 9.4988410732511302302e-15 1.5707963267948943376" />
<geometry>
<mesh filename="package://hephaestus_description/meshes/mg4036e-i36-7.stl"/>
</geometry>
<material name="mg4036e-i36-7_material">
<color rgba="0.30196078431372547213 0.30196078431372547213 0.30196078431372547213 1.0"/>
</material>
</visual>
<collision>
<origin xyz="0.017000000000004455991 8.0697220122652347381e-16 -0.0405000000000008617" rpy="3.1415926535897402694 9.4988410732511302302e-15 1.5707963267948943376" />
<geometry>
<mesh filename="package://hephaestus_description/meshes/mg4036e-i36-7.stl"/>
</geometry>
</collision>
<visual>
<origin xyz="-0.0059999999999987840837 0.01039230484541422278 -0.014000000000000789591" rpy="-6.1062266354244602571e-16 -5.173639294753226954e-14 -4.4408920985003792482e-15" />
<geometry>
<mesh filename="package://hephaestus_description/meshes/m4_18mm.stl"/>
</geometry>
<material name="m4_18mm_material">
<color rgba="0.90196078431372550543 0.90196078431372550543 0.90196078431372550543 1.0"/>
</material>
</visual>
<collision>
<origin xyz="-0.0059999999999987840837 0.01039230484541422278 -0.014000000000000789591" rpy="-6.1062266354244602571e-16 -5.173639294753226954e-14 -4.4408920985003792482e-15" />
<geometry>
<mesh filename="package://hephaestus_description/meshes/m4_18mm.stl"/>
</geometry>
</collision>
<visual>
<origin xyz="-0.027999999999996583178 0.02375000000000375075 -0.040500000000005219325" rpy="2.2093438190040747683e-14 1.5707963267947926411 0" />
<geometry>
<mesh filename="package://hephaestus_description/meshes/m3_6mm.stl"/>
</geometry>
<material name="m3_6mm_material">
<color rgba="0.90196078431372550543 0.90196078431372550543 0.90196078431372550543 1.0"/>
</material>
</visual>
<collision>
<origin xyz="-0.027999999999996583178 0.02375000000000375075 -0.040500000000005219325" rpy="2.2093438190040747683e-14 1.5707963267947926411 0" />
<geometry>
<mesh filename="package://hephaestus_description/meshes/m3_6mm.stl"/>
</geometry>
</collision>
<inertial>
<origin xyz="-0.0036997041602155897669 1.3840033820704229035e-05 -0.036015874508582582103" rpy="0 0 0"/>
<mass value="0.3646947997611872383" />
<inertia ixx="0.00017590579400331921977" ixy="-1.6003166152382934254e-07"  ixz="-1.4234764840890162173e-06" iyy="0.00018073370179456831942" iyz="3.7737168262968713562e-08" izz="0.0001431577066241377955" />
</inertial>
</link>

<link name="link6">
<visual>
<origin xyz="-2.7755575615628913511e-17 -0.017000000000000462658 -0.040499999999995428546" rpy="-7.2164496600632019684e-16 3.7127616191734841113e-17 -3.141592653589793116" />
<geometry>
<mesh filename="package://hephaestus_description/meshes/mg4036e-i36-27.stl"/>
</geometry>
<material name="mg4036e-i36-27_material">
<color rgba="0.30196078431372547213 0.30196078431372547213 0.30196078431372547213 1.0"/>
</material>
</visual>
<collision>
<origin xyz="-2.7755575615628913511e-17 -0.017000000000000462658 -0.040499999999995428546" rpy="-7.2164496600632019684e-16 3.7127616191734841113e-17 -3.141592653589793116" />
<geometry>
<mesh filename="package://hephaestus_description/meshes/mg4036e-i36-27.stl"/>
</geometry>
</collision>
<visual>
<origin xyz="-2.7755575615628913511e-17 -0.017000000000000462658 -0.040499999999995428546" rpy="-7.2164496600632019684e-16 3.7127616191734841113e-17 -3.141592653589793116" />
<geometry>
<mesh filename="package://hephaestus_description/meshes/mg4036e-i36-15.stl"/>
</geometry>
<material name="mg4036e-i36-15_material">
<color rgba="0.30196078431372547213 0.30196078431372547213 0.30196078431372547213 1.0"/>
</material>
</visual>
<collision>
<origin xyz="-2.7755575615628913511e-17 -0.017000000000000462658 -0.040499999999995428546" rpy="-7.2164496600632019684e-16 3.7127616191734841113e-17 -3.141592653589793116" />
<geometry>
<mesh filename="package://hephaestus_description/meshes/mg4036e-i36-15.stl"/>
</geometry>
</collision>
<visual>
<origin xyz="-2.7755575615628913511e-17 -0.017000000000000462658 -0.040499999999995428546" rpy="-7.2164496600632019684e-16 3.7127616191734841113e-17 -3.141592653589793116" />
<geometry>
<mesh filename="package://hephaestus_description/meshes/mg4036e-i36-1.stl"/>
</geometry>
<material name="mg4036e-i36-1_material">
<color rgba="0.90196078431372550543 0.90196078431372550543 0.90196078431372550543 1.0"/>
</material>
</visual>
<collision>
<origin xyz="-2.7755575615628913511e-17 -0.017000000000000462658 -0.040499999999995428546" rpy="-7.2164496600632019684e-16 3.7127616191734841113e-17 -3.141592653589793116" />
<geometry>
<mesh filename="package://hephaestus_description/meshes/mg4036e-i36-1.stl"/>
</geometry>
</collision>
<visual>
<origin xyz="-2.7755575615628913511e-17 -0.017000000000000462658 -0.040499999999995428546" rpy="-7.2164496600632019684e-16 3.7127616191734841113e-17 -3.141592653589793116" />
<geometry>
<mesh filename="package://hephaestus_description/meshes/mg4036e-i36-6.stl"/>
</geometry>
<material name="mg4036e-i36-6_material">
<color rgba="0.90196078431372550543 0.90196078431372550543 0.90196078431372550543 1.0"/>
</material>
</visual>
<collision>
<origin xyz="-2.7755575615628913511e-17 -0.017000000000000462658 -0.040499999999995428546" rpy="-7.2164496600632019684e-16 3.7127616191734841113e-17 -3.141592653589793116" />
<geometry>
<mesh filename="package://hephaestus_description/meshes/mg4036e-i36-6.stl"/>
</geometry>
</collision>
<visual>
<origin xyz="-2.7755575615628913511e-17 -0.017000000000000462658 -0.040499999999995428546" rpy="-7.2164496600632019684e-16 3.7127616191734841113e-17 -3.141592653589793116" />
<geometry>
<mesh filename="package://hephaestus_description/meshes/mg4036e-i36-28.stl"/>
</geometry>
<material name="mg4036e-i36-28_material">
<color rgba="1 1 1 1.0"/>
</material>
</visual>
<collision>
<origin xyz="-2.7755575615628913511e-17 -0.017000000000000462658 -0.040499999999995428546" rpy="-7.2164496600632019684e-16 3.7127616191734841113e-17 -3.141592653589793116" />
<geometry>
<mesh filename="package://hephaestus_description/meshes/mg4036e-i36-28.stl"/>
</geometry>
</collision>
<visual>
<origin xyz="-2.7755575615628913511e-17 -0.017000000000000462658 -0.040499999999995428546" rpy="-7.2164496600632019684e-16 3.7127616191734841113e-17 -3.141592653589793116" />
<geometry>
<mesh filename="package://hephaestus_description/meshes/mg4036e-i36-14.stl"/>
</geometry>
<material name="mg4036e-i36-14_material">
<color rgba="0.30196078431372547213 0.30196078431372547213 0.30196078431372547213 1.0"/>
</material>
</visual>
<collision>
<origin xyz="-2.7755575615628913511e-17 -0.017000000000000462658 -0.040499999999995428546" rpy="-7.2164496600632019684e-16 3.7127616191734841113e-17 -3.141592653589793116" />
<geometry>
<mesh filename="package://hephaestus_description/meshes/mg4036e-i36-14.stl"/>
</geometry>
</collision>
<visual>
<origin xyz="0 9.7971743931995115625e-19 0" rpy="3.141592653589793116 -0 -1.2691482743057777775e-30" />
<geometry>
<mesh filename="package://hephaestus_description/meshes/4036_output_type_a.stl"/>
</geometry>
<material name="4036_output_type_a_material">
<color rgba="0.90196078431372550543 0.90196078431372550543 0.90196078431372550543 1.0"/>
</material>
</visual>
<collision>
<origin xyz="0 9.7971743931995115625e-19 0" rpy="3.141592653589793116 -0 -1.2691482743057777775e-30" />
<geometry>
<mesh filename="package://hephaestus_description/meshes/4036_output_type_a.stl"/>
</geometry>
</collision>
<visual>
<origin xyz="0.011875000000000704437 0.027999999999996180722 -0.019931896660117076614" rpy="1.5707963267949640596 3.2470583001447479515e-15 4.1043942145249586143e-17" />
<geometry>
<mesh filename="package://hephaestus_description/meshes/m3_6mm.stl"/>
</geometry>
<material name="m3_6mm_material">
<color rgba="0.90196078431372550543 0.90196078431372550543 0.90196078431372550543 1.0"/>
</material>
</visual>
<collision>
<origin xyz="0.011875000000000704437 0.027999999999996180722 -0.019931896660117076614" rpy="1.5707963267949640596 3.2470583001447479515e-15 4.1043942145249586143e-17" />
<geometry>
<mesh filename="package://hephaestus_description/meshes/m3_6mm.stl"/>
</geometry>
</collision>
<visual>
<origin xyz="-2.7755575615628913511e-17 -0.017000000000000462658 -0.040499999999995428546" rpy="-7.2164496600632019684e-16 3.7127616191734841113e-17 -3.141592653589793116" />
<geometry>
<mesh filename="package://hephaestus_description/meshes/mg4036e-i36-5.stl"/>
</geometry>
<material name="mg4036e-i36-5_material">
<color rgba="0.90196078431372550543 0.90196078431372550543 0.90196078431372550543 1.0"/>
</material>
</visual>
<collision>
<origin xyz="-2.7755575615628913511e-17 -0.017000000000000462658 -0.040499999999995428546" rpy="-7.2164496600632019684e-16 3.7127616191734841113e-17 -3.141592653589793116" />
<geometry>
<mesh filename="package://hephaestus_description/meshes/mg4036e-i36-5.stl"/>
</geometry>
</collision>
<visual>
<origin xyz="-2.7755575615628913511e-17 -0.017000000000000462658 -0.040499999999995428546" rpy="-7.2164496600632019684e-16 3.7127616191734841113e-17 -3.141592653589793116" />
<geometry>
<mesh filename="package://hephaestus_description/meshes/mg4036e-i36-24.stl"/>
</geometry>
<material name="mg4036e-i36-24_material">
<color rgba="0.30196078431372547213 0.30196078431372547213 0.30196078431372547213 1.0"/>
</material>
</visual>
<collision>
<origin xyz="-2.7755575615628913511e-17 -0.017000000000000462658 -0.040499999999995428546" rpy="-7.2164496600632019684e-16 3.7127616191734841113e-17 -3.141592653589793116" />
<geometry>
<mesh filename="package://hephaestus_description/meshes/mg4036e-i36-24.stl"/>
</geometry>
</collision>
<visual>
<origin xyz="-1.8041124150158793782e-16 0.021999999999994638428 -0.040499999999994873434" rpy="1.5707963267950861841 -6.6388470569207131362e-16 3.1415926535897922278" />
<geometry>
<mesh filename="package://hephaestus_description/meshes/mg4036i36_bracket.stl"/>
</geometry>
<material name="mg4036i36_bracket_material">
<color rgba="0.90196078431372550543 0.90196078431372550543 0.90196078431372550543 1.0"/>
</material>
</visual>
<collision>
<origin xyz="-1.8041124150158793782e-16 0.021999999999994638428 -0.040499999999994873434" rpy="1.5707963267950861841 -6.6388470569207131362e-16 3.1415926535897922278" />
<geometry>
<mesh filename="package://hephaestus_description/meshes/mg4036i36_bracket.stl"/>
</geometry>
</collision>
<visual>
<origin xyz="0.023750000000001422751 0.027999999999994779065 -0.040499999999995095479" rpy="1.5707963267949649477 3.2470583001447353297e-15 4.1043942145274829692e-17" />
<geometry>
<mesh filename="package://hephaestus_description/meshes/m3_6mm.stl"/>
</geometry>
<material name="m3_6mm_material">
<color rgba="0.90196078431372550543 0.90196078431372550543 0.90196078431372550543 1.0"/>
</material>
</visual>
<collision>
<origin xyz="0.023750000000001422751 0.027999999999994779065 -0.040499999999995095479" rpy="1.5707963267949649477 3.2470583001447353297e-15 4.1043942145274829692e-17" />
<geometry>
<mesh filename="package://hephaestus_description/meshes/m3_6mm.stl"/>
</geometry>
</collision>
<visual>
<origin xyz="-2.7755575615628913511e-17 -0.017000000000000462658 -0.040499999999995428546" rpy="-7.2164496600632019684e-16 3.7127616191734841113e-17 -3.141592653589793116" />
<geometry>
<mesh filename="package://hephaestus_description/meshes/mg4036e-i36-7.stl"/>
</geometry>
<material name="mg4036e-i36-7_material">
<color rgba="0.30196078431372547213 0.30196078431372547213 0.30196078431372547213 1.0"/>
</material>
</visual>
<collision>
<origin xyz="-2.7755575615628913511e-17 -0.017000000000000462658 -0.040499999999995428546" rpy="-7.2164496600632019684e-16 3.7127616191734841113e-17 -3.141592653589793116" />
<geometry>
<mesh filename="package://hephaestus_description/meshes/mg4036e-i36-7.stl"/>
</geometry>
</collision>
<visual>
<origin xyz="-2.7755575615628913511e-17 -0.017000000000000462658 -0.040499999999995428546" rpy="-7.2164496600632019684e-16 3.7127616191734841113e-17 -3.141592653589793116" />
<geometry>
<mesh filename="package://hephaestus_description/meshes/mg4036e-i36-2.stl"/>
</geometry>
<material name="mg4036e-i36-2_material">
<color rgba="0.90196078431372550543 0.90196078431372550543 0.90196078431372550543 1.0"/>
</material>
</visual>
<collision>
<origin xyz="-2.7755575615628913511e-17 -0.017000000000000462658 -0.040499999999995428546" rpy="-7.2164496600632019684e-16 3.7127616191734841113e-17 -3.141592653589793116" />
<geometry>
<mesh filename="package://hephaestus_description/meshes/mg4036e-i36-2.stl"/>
</geometry>
</collision>
<visual>
<origin xyz="-2.7755575615628913511e-17 -0.017000000000000462658 -0.040499999999995428546" rpy="-7.2164496600632019684e-16 3.7127616191734841113e-17 -3.141592653589793116" />
<geometry>
<mesh filename="package://hephaestus_description/meshes/mg4036e-i36-11.stl"/>
</geometry>
<material name="mg4036e-i36-11_material">
<color rgba="0.30196078431372547213 0.30196078431372547213 0.30196078431372547213 1.0"/>
</material>
</visual>
<collision>
<origin xyz="-2.7755575615628913511e-17 -0.017000000000000462658 -0.040499999999995428546" rpy="-7.2164496600632019684e-16 3.7127616191734841113e-17 -3.141592653589793116" />
<geometry>
<mesh filename="package://hephaestus_description/meshes/mg4036e-i36-11.stl"/>
</geometry>
</collision>
<visual>
<origin xyz="-2.7755575615628913511e-17 -0.017000000000000462658 -0.040499999999995428546" rpy="-7.2164496600632019684e-16 3.7127616191734841113e-17 -3.141592653589793116" />
<geometry>
<mesh filename="package://hephaestus_description/meshes/mg4036e-i36-19.stl"/>
</geometry>
<material name="mg4036e-i36-19_material">
<color rgba="0.90196078431372550543 0.90196078431372550543 0.90196078431372550543 1.0"/>
</material>
</visual>
<collision>
<origin xyz="-2.7755575615628913511e-17 -0.017000000000000462658 -0.040499999999995428546" rpy="-7.2164496600632019684e-16 3.7127616191734841113e-17 -3.141592653589793116" />
<geometry>
<mesh filename="package://hephaestus_description/meshes/mg4036e-i36-19.stl"/>
</geometry>
</collision>
<visual>
<origin xyz="-2.7755575615628913511e-17 -0.017000000000000462658 -0.040499999999995428546" rpy="-7.2164496600632019684e-16 3.7127616191734841113e-17 -3.141592653589793116" />
<geometry>
<mesh filename="package://hephaestus_description/meshes/mg4036e-i36-3.stl"/>
</geometry>
<material name="mg4036e-i36-3_material">
<color rgba="0.90196078431372550543 0.90196078431372550543 0.90196078431372550543 1.0"/>
</material>
</visual>
<collision>
<origin xyz="-2.7755575615628913511e-17 -0.017000000000000462658 -0.040499999999995428546" rpy="-7.2164496600632019684e-16 3.7127616191734841113e-17 -3.141592653589793116" />
<geometry>
<mesh filename="package://hephaestus_description/meshes/mg4036e-i36-3.stl"/>
</geometry>
</collision>
<visual>
<origin xyz="-0.023750000000001714184 0.027999999999995067029 -0.040499999999995206501" rpy="1.5707963267949649477 3.2470583001447353297e-15 4.1043942145274829692e-17" />
<geometry>
<mesh filename="package://hephaestus_description/meshes/m3_6mm.stl"/>
</geometry>
<material name="m3_6mm_material">
<color rgba="0.90196078431372550543 0.90196078431372550543 0.90196078431372550543 1.0"/>
</material>
</visual>
<collision>
<origin xyz="-0.023750000000001714184 0.027999999999995067029 -0.040499999999995206501" rpy="1.5707963267949649477 3.2470583001447353297e-15 4.1043942145274829692e-17" />
<geometry>
<mesh filename="package://hephaestus_description/meshes/m3_6mm.stl"/>
</geometry>
</collision>
<visual>
<origin xyz="-2.7755575615628913511e-17 -0.017000000000000462658 -0.040499999999995428546" rpy="-7.2164496600632019684e-16 3.7127616191734841113e-17 -3.141592653589793116" />
<geometry>
<mesh filename="package://hephaestus_description/meshes/mg4036e-i36-21.stl"/>
</geometry>
<material name="mg4036e-i36-21_material">
<color rgba="0.90196078431372550543 0.90196078431372550543 0.90196078431372550543 1.0"/>
</material>
</visual>
<collision>
<origin xyz="-2.7755575615628913511e-17 -0.017000000000000462658 -0.040499999999995428546" rpy="-7.2164496600632019684e-16 3.7127616191734841113e-17 -3.141592653589793116" />
<geometry>
<mesh filename="package://hephaestus_description/meshes/mg4036e-i36-21.stl"/>
</geometry>
</collision>
<visual>
<origin xyz="-2.7755575615628913511e-17 -0.017000000000000462658 -0.040499999999995428546" rpy="-7.2164496600632019684e-16 3.7127616191734841113e-17 -3.141592653589793116" />
<geometry>
<mesh filename="package://hephaestus_description/meshes/mg4036e-i36-29.stl"/>
</geometry>
<material name="mg4036e-i36-29_material">
<color rgba="0.30196078431372547213 0.30196078431372547213 0.30196078431372547213 1.0"/>
</material>
</visual>
<collision>
<origin xyz="-2.7755575615628913511e-17 -0.017000000000000462658 -0.040499999999995428546" rpy="-7.2164496600632019684e-16 3.7127616191734841113e-17 -3.141592653589793116" />
<geometry>
<mesh filename="package://hephaestus_description/meshes/mg4036e-i36-29.stl"/>
</geometry>
</collision>
<visual>
<origin xyz="-2.7755575615628913511e-17 -0.017000000000000462658 -0.040499999999995428546" rpy="-7.2164496600632019684e-16 3.7127616191734841113e-17 -3.141592653589793116" />
<geometry>
<mesh filename="package://hephaestus_description/meshes/mg4036e-i36-12.stl"/>
</geometry>
<material name="mg4036e-i36-12_material">
<color rgba="0.90196078431372550543 0.90196078431372550543 0.90196078431372550543 1.0"/>
</material>
</visual>
<collision>
<origin xyz="-2.7755575615628913511e-17 -0.017000000000000462658 -0.040499999999995428546" rpy="-7.2164496600632019684e-16 3.7127616191734841113e-17 -3.141592653589793116" />
<geometry>
<mesh filename="package://hephaestus_description/meshes/mg4036e-i36-12.stl"/>
</geometry>
</collision>
<visual>
<origin xyz="-2.7755575615628913511e-17 -0.017000000000000462658 -0.040499999999995428546" rpy="-7.2164496600632019684e-16 3.7127616191734841113e-17 -3.141592653589793116" />
<geometry>
<mesh filename="package://hephaestus_description/meshes/mg4036e-i36-13.stl"/>
</geometry>
<material name="mg4036e-i36-13_material">
<color rgba="0.30196078431372547213 0.30196078431372547213 0.30196078431372547213 1.0"/>
</material>
</visual>
<collision>
<origin xyz="-2.7755575615628913511e-17 -0.017000000000000462658 -0.040499999999995428546" rpy="-7.2164496600632019684e-16 3.7127616191734841113e-17 -3.141592653589793116" />
<geometry>
<mesh filename="package://hephaestus_description/meshes/mg4036e-i36-13.stl"/>
</geometry>
</collision>
<visual>
<origin xyz="-2.7755575615628913511e-17 -0.017000000000000462658 -0.040499999999995428546" rpy="-7.2164496600632019684e-16 3.7127616191734841113e-17 -3.141592653589793116" />
<geometry>
<mesh filename="package://hephaestus_description/meshes/mg4036e-i36-17.stl"/>
</geometry>
<material name="mg4036e-i36-17_material">
<color rgba="0.30196078431372547213 0.30196078431372547213 0.30196078431372547213 1.0"/>
</material>
</visual>
<collision>
<origin xyz="-2.7755575615628913511e-17 -0.017000000000000462658 -0.040499999999995428546" rpy="-7.2164496600632019684e-16 3.7127616191734841113e-17 -3.141592653589793116" />
<geometry>
<mesh filename="package://hephaestus_description/meshes/mg4036e-i36-17.stl"/>
</geometry>
</collision>
<visual>
<origin xyz="-2.7755575615628913511e-17 -0.017000000000000462658 -0.040499999999995428546" rpy="-7.2164496600632019684e-16 3.7127616191734841113e-17 -3.141592653589793116" />
<geometry>
<mesh filename="package://hephaestus_description/meshes/mg4036e-i36-18.stl"/>
</geometry>
<material name="mg4036e-i36-18_material">
<color rgba="0.30196078431372547213 0.30196078431372547213 0.30196078431372547213 1.0"/>
</material>
</visual>
<collision>
<origin xyz="-2.7755575615628913511e-17 -0.017000000000000462658 -0.040499999999995428546" rpy="-7.2164496600632019684e-16 3.7127616191734841113e-17 -3.141592653589793116" />
<geometry>
<mesh filename="package://hephaestus_description/meshes/mg4036e-i36-18.stl"/>
</geometry>
</collision>
<visual>
<origin xyz="-0.010392304845413993797 0.0059999999999985603044 -0.0139999999999983471" rpy="-6.9388939039071652688e-16 3.7127616191747462887e-17 -3.141592653589793116" />
<geometry>
<mesh filename="package://hephaestus_description/meshes/m4_18mm.stl"/>
</geometry>
<material name="m4_18mm_material">
<color rgba="0.90196078431372550543 0.90196078431372550543 0.90196078431372550543 1.0"/>
</material>
</visual>
<collision>
<origin xyz="-0.010392304845413993797 0.0059999999999985603044 -0.0139999999999983471" rpy="-6.9388939039071652688e-16 3.7127616191747462887e-17 -3.141592653589793116" />
<geometry>
<mesh filename="package://hephaestus_description/meshes/m4_18mm.stl"/>
</geometry>
</collision>
<visual>
<origin xyz="-0.011875000000001009748 0.027999999999993720884 -0.061068103339873114344" rpy="1.5707963267949651698 3.2470583001447605732e-15 4.1043942145274829692e-17" />
<geometry>
<mesh filename="package://hephaestus_description/meshes/m3_6mm.stl"/>
</geometry>
<material name="m3_6mm_material">
<color rgba="0.90196078431372550543 0.90196078431372550543 0.90196078431372550543 1.0"/>
</material>
</visual>
<collision>
<origin xyz="-0.011875000000001009748 0.027999999999993720884 -0.061068103339873114344" rpy="1.5707963267949651698 3.2470583001447605732e-15 4.1043942145274829692e-17" />
<geometry>
<mesh filename="package://hephaestus_description/meshes/m3_6mm.stl"/>
</geometry>
</collision>
<visual>
<origin xyz="-2.7755575615628913511e-17 -0.017000000000000462658 -0.040499999999995428546" rpy="-7.2164496600632019684e-16 3.7127616191734841113e-17 -3.141592653589793116" />
<geometry>
<mesh filename="package://hephaestus_description/meshes/mg4036e-i36-23.stl"/>
</geometry>
<material name="mg4036e-i36-23_material">
<color rgba="1 1 1 1.0"/>
</material>
</visual>
<collision>
<origin xyz="-2.7755575615628913511e-17 -0.017000000000000462658 -0.040499999999995428546" rpy="-7.2164496600632019684e-16 3.7127616191734841113e-17 -3.141592653589793116" />
<geometry>
<mesh filename="package://hephaestus_description/meshes/mg4036e-i36-23.stl"/>
</geometry>
</collision>
<visual>
<origin xyz="-2.7755575615628913511e-17 -0.017000000000000462658 -0.040499999999995428546" rpy="-7.2164496600632019684e-16 3.7127616191734841113e-17 -3.141592653589793116" />
<geometry>
<mesh filename="package://hephaestus_description/meshes/mg4036e-i36-4.stl"/>
</geometry>
<material name="mg4036e-i36-4_material">
<color rgba="0.90196078431372550543 0.90196078431372550543 0.90196078431372550543 1.0"/>
</material>
</visual>
<collision>
<origin xyz="-2.7755575615628913511e-17 -0.017000000000000462658 -0.040499999999995428546" rpy="-7.2164496600632019684e-16 3.7127616191734841113e-17 -3.141592653589793116" />
<geometry>
<mesh filename="package://hephaestus_description/meshes/mg4036e-i36-4.stl"/>
</geometry>
</collision>
<visual>
<origin xyz="-2.7755575615628913511e-17 -0.017000000000000462658 -0.040499999999995428546" rpy="-7.2164496600632019684e-16 3.7127616191734841113e-17 -3.141592653589793116" />
<geometry>
<mesh filename="package://hephaestus_description/meshes/mg4036e-i36-30.stl"/>
</geometry>
<material name="mg4036e-i36-30_material">
<color rgba="0.30196078431372547213 0.30196078431372547213 0.30196078431372547213 1.0"/>
</material>
</visual>
<collision>
<origin xyz="-2.7755575615628913511e-17 -0.017000000000000462658 -0.040499999999995428546" rpy="-7.2164496600632019684e-16 3.7127616191734841113e-17 -3.141592653589793116" />
<geometry>
<mesh filename="package://hephaestus_description/meshes/mg4036e-i36-30.stl"/>
</geometry>
</collision>
<visual>
<origin xyz="0.011875000000000607292 0.027999999999993883948 -0.061068103339873225366" rpy="1.5707963267949651698 3.2470583001447605732e-15 4.1043942145274829692e-17" />
<geometry>
<mesh filename="package://hephaestus_description/meshes/m3_6mm.stl"/>
</geometry>
<material name="m3_6mm_material">
<color rgba="0.90196078431372550543 0.90196078431372550543 0.90196078431372550543 1.0"/>
</material>
</visual>
<collision>
<origin xyz="0.011875000000000607292 0.027999999999993883948 -0.061068103339873225366" rpy="1.5707963267949651698 3.2470583001447605732e-15 4.1043942145274829692e-17" />
<geometry>
<mesh filename="package://hephaestus_description/meshes/m3_6mm.stl"/>
</geometry>
</collision>
<visual>
<origin xyz="-0.011875000000000940359 0.02799999999999625705 -0.019931896660117076614" rpy="1.5707963267949651698 3.2470583001447605732e-15 4.1043942145274829692e-17" />
<geometry>
<mesh filename="package://hephaestus_description/meshes/m3_6mm.stl"/>
</geometry>
<material name="m3_6mm_material">
<color rgba="0.90196078431372550543 0.90196078431372550543 0.90196078431372550543 1.0"/>
</material>
</visual>
<collision>
<origin xyz="-0.011875000000000940359 0.02799999999999625705 -0.019931896660117076614" rpy="1.5707963267949651698 3.2470583001447605732e-15 4.1043942145274829692e-17" />
<geometry>
<mesh filename="package://hephaestus_description/meshes/m3_6mm.stl"/>
</geometry>
</collision>
<visual>
<origin xyz="-2.7755575615628913511e-17 -0.017000000000000462658 -0.040499999999995428546" rpy="-7.2164496600632019684e-16 3.7127616191734841113e-17 -3.141592653589793116" />
<geometry>
<mesh filename="package://hephaestus_description/meshes/mg4036e-i36-20.stl"/>
</geometry>
<material name="mg4036e-i36-20_material">
<color rgba="0.90196078431372550543 0.90196078431372550543 0.90196078431372550543 1.0"/>
</material>
</visual>
<collision>
<origin xyz="-2.7755575615628913511e-17 -0.017000000000000462658 -0.040499999999995428546" rpy="-7.2164496600632019684e-16 3.7127616191734841113e-17 -3.141592653589793116" />
<geometry>
<mesh filename="package://hephaestus_description/meshes/mg4036e-i36-20.stl"/>
</geometry>
</collision>
<visual>
<origin xyz="-2.7755575615628913511e-17 -0.017000000000000462658 -0.040499999999995428546" rpy="-7.2164496600632019684e-16 3.7127616191734841113e-17 -3.141592653589793116" />
<geometry>
<mesh filename="package://hephaestus_description/meshes/mg4036e-i36-10.stl"/>
</geometry>
<material name="mg4036e-i36-10_material">
<color rgba="0.30196078431372547213 0.30196078431372547213 0.30196078431372547213 1.0"/>
</material>
</visual>
<collision>
<origin xyz="-2.7755575615628913511e-17 -0.017000000000000462658 -0.040499999999995428546" rpy="-7.2164496600632019684e-16 3.7127616191734841113e-17 -3.141592653589793116" />
<geometry>
<mesh filename="package://hephaestus_description/meshes/mg4036e-i36-10.stl"/>
</geometry>
</collision>
<visual>
<origin xyz="1.3877787807814456755e-17 -0.011999999999999524936 -0.013999999999998458122" rpy="-5.5511151231255933755e-16 3.7127616191797949985e-17 3.141592653589793116" />
<geometry>
<mesh filename="package://hephaestus_description/meshes/m4_18mm.stl"/>
</geometry>
<material name="m4_18mm_material">
<color rgba="0.90196078431372550543 0.90196078431372550543 0.90196078431372550543 1.0"/>
</material>
</visual>
<collision>
<origin xyz="1.3877787807814456755e-17 -0.011999999999999524936 -0.013999999999998458122" rpy="-5.5511151231255933755e-16 3.7127616191797949985e-17 3.141592653589793116" />
<geometry>
<mesh filename="package://hephaestus_description/meshes/m4_18mm.stl"/>
</geometry>
</collision>
<visual>
<origin xyz="-2.7755575615628913511e-17 -0.017000000000000462658 -0.040499999999995428546" rpy="-7.2164496600632019684e-16 3.7127616191734841113e-17 -3.141592653589793116" />
<geometry>
<mesh filename="package://hephaestus_description/meshes/mg4036e-i36-26.stl"/>
</geometry>
<material name="mg4036e-i36-26_material">
<color rgba="1 1 1 1.0"/>
</material>
</visual>
<collision>
<origin xyz="-2.7755575615628913511e-17 -0.017000000000000462658 -0.040499999999995428546" rpy="-7.2164496600632019684e-16 3.7127616191734841113e-17 -3.141592653589793116" />
<geometry>
<mesh filename="package://hephaestus_description/meshes/mg4036e-i36-26.stl"/>
</geometry>
</collision>
<visual>
<origin xyz="-2.7755575615628913511e-17 -0.017000000000000462658 -0.040499999999995428546" rpy="-7.2164496600632019684e-16 3.7127616191734841113e-17 -3.141592653589793116" />
<geometry>
<mesh filename="package://hephaestus_description/meshes/mg4036e-i36-16.stl"/>
</geometry>
<material name="mg4036e-i36-16_material">
<color rgba="0.30196078431372547213 0.30196078431372547213 0.30196078431372547213 1.0"/>
</material>
</visual>
<collision>
<origin xyz="-2.7755575615628913511e-17 -0.017000000000000462658 -0.040499999999995428546" rpy="-7.2164496600632019684e-16 3.7127616191734841113e-17 -3.141592653589793116" />
<geometry>
<mesh filename="package://hephaestus_description/meshes/mg4036e-i36-16.stl"/>
</geometry>
</collision>
<visual>
<origin xyz="-2.7755575615628913511e-17 -0.017000000000000462658 -0.040499999999995428546" rpy="-7.2164496600632019684e-16 3.7127616191734841113e-17 -3.141592653589793116" />
<geometry>
<mesh filename="package://hephaestus_description/meshes/mg4036e-i36-9.stl"/>
</geometry>
<material name="mg4036e-i36-9_material">
<color rgba="0.30196078431372547213 0.30196078431372547213 0.30196078431372547213 1.0"/>
</material>
</visual>
<collision>
<origin xyz="-2.7755575615628913511e-17 -0.017000000000000462658 -0.040499999999995428546" rpy="-7.2164496600632019684e-16 3.7127616191734841113e-17 -3.141592653589793116" />
<geometry>
<mesh filename="package://hephaestus_description/meshes/mg4036e-i36-9.stl"/>
</geometry>
</collision>
<visual>
<origin xyz="-2.7755575615628913511e-17 -0.017000000000000462658 -0.040499999999995428546" rpy="-7.2164496600632019684e-16 3.7127616191734841113e-17 -3.141592653589793116" />
<geometry>
<mesh filename="package://hephaestus_description/meshes/mg4036e-i36-22.stl"/>
</geometry>
<material name="mg4036e-i36-22_material">
<color rgba="1 1 1 1.0"/>
</material>
</visual>
<collision>
<origin xyz="-2.7755575615628913511e-17 -0.017000000000000462658 -0.040499999999995428546" rpy="-7.2164496600632019684e-16 3.7127616191734841113e-17 -3.141592653589793116" />
<geometry>
<mesh filename="package://hephaestus_description/meshes/mg4036e-i36-22.stl"/>
</geometry>
</collision>
<visual>
<origin xyz="-2.7755575615628913511e-17 -0.017000000000000462658 -0.040499999999995428546" rpy="-7.2164496600632019684e-16 3.7127616191734841113e-17 -3.141592653589793116" />
<geometry>
<mesh filename="package://hephaestus_description/meshes/mg4036e-i36-8.stl"/>
</geometry>
<material name="mg4036e-i36-8_material">
<color rgba="0.30196078431372547213 0.30196078431372547213 0.30196078431372547213 1.0"/>
</material>
</visual>
<collision>
<origin xyz="-2.7755575615628913511e-17 -0.017000000000000462658 -0.040499999999995428546" rpy="-7.2164496600632019684e-16 3.7127616191734841113e-17 -3.141592653589793116" />
<geometry>
<mesh filename="package://hephaestus_description/meshes/mg4036e-i36-8.stl"/>
</geometry>
</collision>
<visual>
<origin xyz="0.010392304845413966041 0.0059999999999989211269 -0.013999999999998236078" rpy="-4.9960036108128888875e-16 3.7127616191747462887e-17 -3.141592653589793116" />
<geometry>
<mesh filename="package://hephaestus_description/meshes/m4_18mm.stl"/>
</geometry>
<material name="m4_18mm_material">
<color rgba="0.90196078431372550543 0.90196078431372550543 0.90196078431372550543 1.0"/>
</material>
</visual>
<collision>
<origin xyz="0.010392304845413966041 0.0059999999999989211269 -0.013999999999998236078" rpy="-4.9960036108128888875e-16 3.7127616191747462887e-17 -3.141592653589793116" />
<geometry>
<mesh filename="package://hephaestus_description/meshes/m4_18mm.stl"/>
</geometry>
</collision>
<visual>
<origin xyz="-2.7755575615628913511e-17 -0.017000000000000462658 -0.040499999999995428546" rpy="-7.2164496600632019684e-16 3.7127616191734841113e-17 -3.141592653589793116" />
<geometry>
<mesh filename="package://hephaestus_description/meshes/mg4036e-i36-25.stl"/>
</geometry>
<material name="mg4036e-i36-25_material">
<color rgba="1 1 1 1.0"/>
</material>
</visual>
<collision>
<origin xyz="-2.7755575615628913511e-17 -0.017000000000000462658 -0.040499999999995428546" rpy="-7.2164496600632019684e-16 3.7127616191734841113e-17 -3.141592653589793116" />
<geometry>
<mesh filename="package://hephaestus_description/meshes/mg4036e-i36-25.stl"/>
</geometry>
</collision>
<inertial>
<origin xyz="-1.3845926791664111264e-05 0.003699704160218148484 -0.036029405556312031622" rpy="0 0 0"/>
<mass value="0.36469479976118712727" />
<inertia ixx="0.00018077789067561016384" ixy="-1.5978994519056191475e-07"  ixz="-7.4703888445726106787e-09" iyy="0.00017594998282487127046" iyz="1.4852326485881195817e-06" izz="0.00014315770656462610089" />
</inertial>
</link>

<link name="gripper">
<visual>
<origin xyz="9.9999999998323652051e-05 1.5404344466674046998e-15 -0.050199999999999758704" rpy="3.1415926535897571448 -1.110223024632436987e-16 -1.5707963267949038855" />
<geometry>
<mesh filename="package://hephaestus_description/meshes/shaft_bottom.stl"/>
</geometry>
<material name="shaft_bottom_material">
<color rgba="0.80000000000000004441 0.80000000000000004441 0.80000000000000004441 1.0"/>
</material>
</visual>
<collision>
<origin xyz="9.9999999998323652051e-05 1.5404344466674046998e-15 -0.050199999999999758704" rpy="3.1415926535897571448 -1.110223024632436987e-16 -1.5707963267949038855" />
<geometry>
<mesh filename="package://hephaestus_description/meshes/shaft_bottom.stl"/>
</geometry>
</collision>
<visual>
<origin xyz="9.9999999996880362119e-05 1.9012569296705805755e-15 -0.10611516454507530227" rpy="-1.5707963267948337194 -1.6653345369383917839e-16 -1.5707963267949098807" />
<geometry>
<mesh filename="package://hephaestus_description/meshes/sfk601_link.stl"/>
</geometry>
<material name="sfk601_link_material">
<color rgba="0.80000000000000004441 0.80000000000000004441 0.80000000000000004441 1.0"/>
</material>
</visual>
<collision>
<origin xyz="9.9999999996880362119e-05 1.9012569296705805755e-15 -0.10611516454507530227" rpy="-1.5707963267948337194 -1.6653345369383917839e-16 -1.5707963267949098807" />
<geometry>
<mesh filename="package://hephaestus_description/meshes/sfk601_link.stl"/>
</geometry>
</collision>
<visual>
<origin xyz="9.9999999999544897378e-05 5.1347814888913489995e-16 -0.016999999999999775707" rpy="3.141592653589793116 3.5971225998084718786e-14 8.7090243936399183155e-28" />
<geometry>
<mesh filename="package://hephaestus_description/meshes/m2x5_1.stl"/>
</geometry>
<material name="m2x5_1_material">
<color rgba="0.5999999999999999778 0.5999999999999999778 0.5999999999999999778 1.0"/>
</material>
</visual>
<collision>
<origin xyz="9.9999999999544897378e-05 5.1347814888913489995e-16 -0.016999999999999775707" rpy="3.141592653589793116 3.5971225998084718786e-14 8.7090243936399183155e-28" />
<geometry>
<mesh filename="package://hephaestus_description/meshes/m2x5_1.stl"/>
</geometry>
</collision>
<visual>
<origin xyz="0.0080999999999966654229 -0.029820508075686757987 -0.081700000000001118949" rpy="-1.5707963267949145436 -0.032559551067992541229 1.5707963267948898967" />
<geometry>
<mesh filename="package://hephaestus_description/meshes/jaw_3_9.stl"/>
</geometry>
<material name="jaw_3_9_material">
<color rgba="0.80000000000000004441 0.80000000000000004441 0.80000000000000004441 1.0"/>
</material>
</visual>
<collision>
<origin xyz="0.0080999999999966654229 -0.029820508075686757987 -0.081700000000001118949" rpy="-1.5707963267949145436 -0.032559551067992541229 1.5707963267948898967" />
<geometry>
<mesh filename="package://hephaestus_description/meshes/jaw_3_9.stl"/>
</geometry>
</collision>
<visual>
<origin xyz="-0.0089000000000026835423 0.029820508075690789485 -0.081700000000001452016" rpy="-1.5707963267949145436 3.3306690738702552507e-16 1.5707963267948892305" />
<geometry>
<mesh filename="package://hephaestus_description/meshes/f684zz.stl"/>
</geometry>
<material name="f684zz_material">
<color rgba="0.80000000000000004441 0.80000000000000004441 0.80000000000000004441 1.0"/>
</material>
</visual>
<collision>
<origin xyz="-0.0089000000000026835423 0.029820508075690789485 -0.081700000000001452016" rpy="-1.5707963267949145436 3.3306690738702552507e-16 1.5707963267948892305" />
<geometry>
<mesh filename="package://hephaestus_description/meshes/f684zz.stl"/>
</geometry>
</collision>
<visual>
<origin xyz="0.076099999999998613198 2.4286128663675299322e-15 -0.069049999999997516142" rpy="-3.141592653589793116 2.2204460492487592714e-16 1.5707963267948892305" />
<geometry>
<mesh filename="package://hephaestus_description/meshes/ds5_0390_adhesive.stl"/>
</geometry>
<material name="ds5_0390_adhesive_material">
<color rgba="0.5999999999999999778 0.5999999999999999778 0.5999999999999999778 1.0"/>
</material>
</visual>
<collision>
<origin xyz="0.076099999999998613198 2.4286128663675299322e-15 -0.069049999999997516142" rpy="-3.141592653589793116 2.2204460492487592714e-16 1.5707963267948892305" />
<geometry>
<mesh filename="package://hephaestus_description/meshes/ds5_0390_adhesive.stl"/>
</geometry>
</collision>
<visual>
<origin xyz="-0.007400000000001960565 -0.067107039954211411548 -0.13494203734336090994" rpy="1.5707963267948759079 0.52359877559832046501 1.570796326794891673" />
<geometry>
<mesh filename="package://hephaestus_description/meshes/jaw_2.stl"/>
</geometry>
<material name="jaw_2_material">
<color rgba="0.80000000000000004441 0.80000000000000004441 0.80000000000000004441 1.0"/>
</material>
</visual>
<collision>
<origin xyz="-0.007400000000001960565 -0.067107039954211411548 -0.13494203734336090994" rpy="1.5707963267948759079 0.52359877559832046501 1.570796326794891673" />
<geometry>
<mesh filename="package://hephaestus_description/meshes/jaw_2.stl"/>
</geometry>
</collision>
<visual>
<origin xyz="0.086099999999998733102 0.0072500000000007142065 -0.053709999999999508136" rpy="-1.5707963267950453279 -1.7305836985489805458e-14 1.5707963267948656938" />
<geometry>
<mesh filename="package://hephaestus_description/meshes/pin_steel_zinc_plated.stl"/>
</geometry>
<material name="pin_steel_zinc_plated_material">
<color rgba="0.64705882352941179736 0.64705882352941179736 0.64705882352941179736 1.0"/>
</material>
</visual>
<collision>
<origin xyz="0.086099999999998733102 0.0072500000000007142065 -0.053709999999999508136" rpy="-1.5707963267950453279 -1.7305836985489805458e-14 1.5707963267948656938" />
<geometry>
<mesh filename="package://hephaestus_description/meshes/pin_steel_zinc_plated.stl"/>
</geometry>
</collision>
<visual>
<origin xyz="0.0090999999999964442665 -0.068799837476768543887 -0.082969598141917816347" rpy="-1.5707963267948781283 0.032559551067992506534 -1.5707963267949034414" />
<geometry>
<mesh filename="package://hephaestus_description/meshes/f684zz.stl"/>
</geometry>
<material name="f684zz_material">
<color rgba="0.80000000000000004441 0.80000000000000004441 0.80000000000000004441 1.0"/>
</material>
</visual>
<collision>
<origin xyz="0.0090999999999964442665 -0.068799837476768543887 -0.082969598141917816347" rpy="-1.5707963267948781283 0.032559551067992506534 -1.5707963267949034414" />
<geometry>
<mesh filename="package://hephaestus_description/meshes/f684zz.stl"/>
</geometry>
</collision>
<visual>
<origin xyz="-0.012000000000000010658 0 -0.0070000000000000027478" rpy="-2.1303030973312384195e-25 -3.1252778143198440603e-14 -1.570796326794896558" />
<geometry>
<mesh filename="package://hephaestus_description/meshes/m4_10mm.stl"/>
</geometry>
<material name="m4_10mm_material">
<color rgba="0.90196078431372550543 0.90196078431372550543 0.90196078431372550543 1.0"/>
</material>
</visual>
<collision>
<origin xyz="-0.012000000000000010658 0 -0.0070000000000000027478" rpy="-2.1303030973312384195e-25 -3.1252778143198440603e-14 -1.570796326794896558" />
<geometry>
<mesh filename="package://hephaestus_description/meshes/m4_10mm.stl"/>
</geometry>
</collision>
<visual>
<origin xyz="-0.0089000000000032386538 -0.029820508075686757987 -0.081700000000001424261" rpy="-1.5707963267949145436 3.3306690738709494483e-16 1.5707963267948892305" />
<geometry>
<mesh filename="package://hephaestus_description/meshes/f684zz.stl"/>
</geometry>
<material name="f684zz_material">
<color rgba="0.80000000000000004441 0.80000000000000004441 0.80000000000000004441 1.0"/>
</material>
</visual>
<collision>
<origin xyz="-0.0089000000000032386538 -0.029820508075686757987 -0.081700000000001424261" rpy="-1.5707963267949145436 3.3306690738709494483e-16 1.5707963267948892305" />
<geometry>
<mesh filename="package://hephaestus_description/meshes/f684zz.stl"/>
</geometry>
</collision>
<visual>
<origin xyz="-0.016900000000002912692 0.012500000000002328693 -0.091700000000001752332" rpy="-1.5707963267948785724 -3.3306690738706970128e-16 -1.5707963267949038855" />
<geometry>
<mesh filename="package://hephaestus_description/meshes/f684zz.stl"/>
</geometry>
<material name="f684zz_material">
<color rgba="0.80000000000000004441 0.80000000000000004441 0.80000000000000004441 1.0"/>
</material>
</visual>
<collision>
<origin xyz="-0.016900000000002912692 0.012500000000002328693 -0.091700000000001752332" rpy="-1.5707963267948785724 -3.3306690738706970128e-16 -1.5707963267949038855" />
<geometry>
<mesh filename="package://hephaestus_description/meshes/f684zz.stl"/>
</geometry>
</collision>
<visual>
<origin xyz="9.9999999999544897378e-05 5.1347814888913489995e-16 -0.016999999999999775707" rpy="3.141592653589793116 3.5971225998084718786e-14 8.7090243936399183155e-28" />
<geometry>
<mesh filename="package://hephaestus_description/meshes/m2_5x5_2.stl"/>
</geometry>
<material name="m2_5x5_2_material">
<color rgba="0.5999999999999999778 0.5999999999999999778 0.5999999999999999778 1.0"/>
</material>
</visual>
<collision>
<origin xyz="9.9999999999544897378e-05 5.1347814888913489995e-16 -0.016999999999999775707" rpy="3.141592653589793116 3.5971225998084718786e-14 8.7090243936399183155e-28" />
<geometry>
<mesh filename="package://hephaestus_description/meshes/m2_5x5_2.stl"/>
</geometry>
</collision>
<visual>
<origin xyz="-0.012500000000000066613 0.021650635094611035691 -0.01000000000000001929" rpy="-1.570796326794896558 6.310887241767919281e-30 -2.6179938779914939673" />
<geometry>
<mesh filename="package://hephaestus_description/meshes/m3_6mm.stl"/>
</geometry>
<material name="m3_6mm_material">
<color rgba="0.90196078431372550543 0.90196078431372550543 0.90196078431372550543 1.0"/>
</material>
</visual>
<collision>
<origin xyz="-0.012500000000000066613 0.021650635094611035691 -0.01000000000000001929" rpy="-1.570796326794896558 6.310887241767919281e-30 -2.6179938779914939673" />
<geometry>
<mesh filename="package://hephaestus_description/meshes/m3_6mm.stl"/>
</geometry>
</collision>
<visual>
<origin xyz="0.009099999999999552891 0.067107039954218877797 -0.13494203734335924461" rpy="-1.5707963267948839015 -0.03255955106798789217 -1.5707963267949143216" />
<geometry>
<mesh filename="package://hephaestus_description/meshes/f684zz.stl"/>
</geometry>
<material name="f684zz_material">
<color rgba="0.80000000000000004441 0.80000000000000004441 0.80000000000000004441 1.0"/>
</material>
</visual>
<collision>
<origin xyz="0.009099999999999552891 0.067107039954218877797 -0.13494203734335924461" rpy="-1.5707963267948839015 -0.03255955106798789217 -1.5707963267949143216" />
<geometry>
<mesh filename="package://hephaestus_description/meshes/f684zz.stl"/>
</geometry>
</collision>
<visual>
<origin xyz="0.076099999999998946265 2.4424906541753443889e-15 -0.069249999999997369216" rpy="-3.141592653589793116 2.2204460492487585318e-16 1.5707963267948892305" />
<geometry>
<mesh filename="package://hephaestus_description/meshes/mask_lens_cover_asrc.stl"/>
</geometry>
<material name="mask_lens_cover_asrc_material">
<color rgba="0.5999999999999999778 0.5999999999999999778 0.5999999999999999778 1.0"/>
</material>
</visual>
<collision>
<origin xyz="0.076099999999998946265 2.4424906541753443889e-15 -0.069249999999997369216" rpy="-3.141592653589793116 2.2204460492487585318e-16 1.5707963267948892305" />
<geometry>
<mesh filename="package://hephaestus_description/meshes/mask_lens_cover_asrc.stl"/>
</geometry>
</collision>
<visual>
<origin xyz="9.9999999999544897378e-05 5.1347814888913489995e-16 -0.016999999999999775707" rpy="3.141592653589793116 3.5971225998084718786e-14 8.7090243936399183155e-28" />
<geometry>
<mesh filename="package://hephaestus_description/meshes/m2x5.stl"/>
</geometry>
<material name="m2x5_material">
<color rgba="0.5999999999999999778 0.5999999999999999778 0.5999999999999999778 1.0"/>
</material>
</visual>
<collision>
<origin xyz="9.9999999999544897378e-05 5.1347814888913489995e-16 -0.016999999999999775707" rpy="3.141592653589793116 3.5971225998084718786e-14 8.7090243936399183155e-28" />
<geometry>
<mesh filename="package://hephaestus_description/meshes/m2x5.stl"/>
</geometry>
</collision>
<visual>
<origin xyz="0.076099999999998946265 0.013500000000002225498 -0.063209999999997740217" rpy="-1.5707963267950453279 -1.7305836985489805458e-14 1.5707963267948656938" />
<geometry>
<mesh filename="package://hephaestus_description/meshes/idc-ds-0601_asrc_sw0001_1_1.stl"/>
</geometry>
<material name="idc-ds-0601_asrc_sw0001_1_1_material">
<color rgba="0.5999999999999999778 0.5999999999999999778 0.5999999999999999778 1.0"/>
</material>
</visual>
<collision>
<origin xyz="0.076099999999998946265 0.013500000000002225498 -0.063209999999997740217" rpy="-1.5707963267950453279 -1.7305836985489805458e-14 1.5707963267948656938" />
<geometry>
<mesh filename="package://hephaestus_description/meshes/idc-ds-0601_asrc_sw0001_1_1.stl"/>
</geometry>
</collision>
<visual>
<origin xyz="9.9999999999544897378e-05 5.1347814888913489995e-16 -0.016999999999999775707" rpy="3.141592653589793116 3.5971225998084718786e-14 8.7090243936399183155e-28" />
<geometry>
<mesh filename="package://hephaestus_description/meshes/bottom_cover.stl"/>
</geometry>
<material name="bottom_cover_material">
<color rgba="0.078431372549019606755 0.078431372549019606755 0.078431372549019606755 1.0"/>
</material>
</visual>
<collision>
<origin xyz="9.9999999999544897378e-05 5.1347814888913489995e-16 -0.016999999999999775707" rpy="3.141592653589793116 3.5971225998084718786e-14 8.7090243936399183155e-28" />
<geometry>
<mesh filename="package://hephaestus_description/meshes/bottom_cover.stl"/>
</geometry>
</collision>
<visual>
<origin xyz="0.021099999999997898215 0.0096331210661292354658 -0.093707736331922961148" rpy="-1.5707963267949285324 0.9598547690695656831 1.570796326794826836" />
<geometry>
<mesh filename="package://hephaestus_description/meshes/jaw_6_5.stl"/>
</geometry>
<material name="jaw_6_5_material">
<color rgba="0.80000000000000004441 0.80000000000000004441 0.80000000000000004441 1.0"/>
</material>
</visual>
<collision>
<origin xyz="0.021099999999997898215 0.0096331210661292354658 -0.093707736331922961148" rpy="-1.5707963267949285324 0.9598547690695656831 1.570796326794826836" />
<geometry>
<mesh filename="package://hephaestus_description/meshes/jaw_6_5.stl"/>
</geometry>
</collision>
<visual>
<origin xyz="0.003099999999996994049 -0.015999999999998903988 -0.098865164545075018276" rpy="1.5707963267947915309 -1.3937347351365692028 1.5707963267949327513" />
<geometry>
<mesh filename="package://hephaestus_description/meshes/inner_rod.stl"/>
</geometry>
<material name="inner_rod_material">
<color rgba="0.80000000000000004441 0.80000000000000004441 0.80000000000000004441 1.0"/>
</material>
</visual>
<collision>
<origin xyz="0.003099999999996994049 -0.015999999999998903988 -0.098865164545075018276" rpy="1.5707963267947915309 -1.3937347351365692028 1.5707963267949327513" />
<geometry>
<mesh filename="package://hephaestus_description/meshes/inner_rod.stl"/>
</geometry>
</collision>
<visual>
<origin xyz="0.0075999999999996070699 0.067107039954218891675 -0.13494203734335924461" rpy="1.5707963267949112129 0.52359877559843137629 -1.5707963267949038855" />
<geometry>
<mesh filename="package://hephaestus_description/meshes/jaw_2.stl"/>
</geometry>
<material name="jaw_2_material">
<color rgba="0.80000000000000004441 0.80000000000000004441 0.80000000000000004441 1.0"/>
</material>
</visual>
<collision>
<origin xyz="0.0075999999999996070699 0.067107039954218891675 -0.13494203734335924461" rpy="1.5707963267949112129 0.52359877559843137629 -1.5707963267949038855" />
<geometry>
<mesh filename="package://hephaestus_description/meshes/jaw_2.stl"/>
</geometry>
</collision>
<visual>
<origin xyz="-0.0084000000000006291856 0.04978653187853177009 -0.14494203734336164047" rpy="-1.5707963267948819031 0.52359877559843126527 -1.5707963267949012209" />
<geometry>
<mesh filename="package://hephaestus_description/meshes/f684zz.stl"/>
</geometry>
<material name="f684zz_material">
<color rgba="0.80000000000000004441 0.80000000000000004441 0.80000000000000004441 1.0"/>
</material>
</visual>
<collision>
<origin xyz="-0.0084000000000006291856 0.04978653187853177009 -0.14494203734336164047" rpy="-1.5707963267948819031 0.52359877559843126527 -1.5707963267949012209" />
<geometry>
<mesh filename="package://hephaestus_description/meshes/f684zz.stl"/>
</geometry>
</collision>
<visual>
<origin xyz="0.086099999999998955147 -0.0072499999999970782261 -0.053709999999999549769" rpy="-1.5707963267950453279 -1.7305836985489805458e-14 1.5707963267948656938" />
<geometry>
<mesh filename="package://hephaestus_description/meshes/pin_steel_zinc_plated.stl"/>
</geometry>
<material name="pin_steel_zinc_plated_material">
<color rgba="0.64705882352941179736 0.64705882352941179736 0.64705882352941179736 1.0"/>
</material>
</visual>
<collision>
<origin xyz="0.086099999999998955147 -0.0072499999999970782261 -0.053709999999999549769" rpy="-1.5707963267950453279 -1.7305836985489805458e-14 1.5707963267948656938" />
<geometry>
<mesh filename="package://hephaestus_description/meshes/pin_steel_zinc_plated.stl"/>
</geometry>
</collision>
<visual>
<origin xyz="0.017099999999997672617 -0.012499999999997638001 -0.091700000000002238054" rpy="-1.570796326794896558 2.2204460492488849961e-16 1.5707963267948892305" />
<geometry>
<mesh filename="package://hephaestus_description/meshes/f684zz.stl"/>
</geometry>
<material name="f684zz_material">
<color rgba="0.80000000000000004441 0.80000000000000004441 0.80000000000000004441 1.0"/>
</material>
</visual>
<collision>
<origin xyz="0.017099999999997672617 -0.012499999999997638001 -0.091700000000002238054" rpy="-1.570796326794896558 2.2204460492488849961e-16 1.5707963267948892305" />
<geometry>
<mesh filename="package://hephaestus_description/meshes/f684zz.stl"/>
</geometry>
</collision>
<visual>
<origin xyz="9.9999999998767741261e-05 1.0824674490095276269e-15 -0.051199999999999717959" rpy="-1.5707963267949325292 -2.77555756158314782e-16 -1.5707963267949038855" />
<geometry>
<mesh filename="package://hephaestus_description/meshes/4005_convertor.stl"/>
</geometry>
<material name="4005_convertor_material">
<color rgba="0 0 0 1.0"/>
</material>
</visual>
<collision>
<origin xyz="9.9999999998767741261e-05 1.0824674490095276269e-15 -0.051199999999999717959" rpy="-1.5707963267949325292 -2.77555756158314782e-16 -1.5707963267949038855" />
<geometry>
<mesh filename="package://hephaestus_description/meshes/4005_convertor.stl"/>
</geometry>
</collision>
<visual>
<origin xyz="0.076099999999998169109 -0.036099999999997856026 -0.05337499999999877065" rpy="1.5707963267949227593 -3.6655050507481515617e-14 -3.1415926535897518157" />
<geometry>
<mesh filename="package://hephaestus_description/meshes/boss-extrude3.stl"/>
</geometry>
<material name="boss-extrude3_material">
<color rgba="0.5999999999999999778 0.5999999999999999778 0.5999999999999999778 1.0"/>
</material>
</visual>
<collision>
<origin xyz="0.076099999999998169109 -0.036099999999997856026 -0.05337499999999877065" rpy="1.5707963267949227593 -3.6655050507481515617e-14 -3.1415926535897518157" />
<geometry>
<mesh filename="package://hephaestus_description/meshes/boss-extrude3.stl"/>
</geometry>
</collision>
<visual>
<origin xyz="0.083049999999999069011 0.010725000000002080092 -0.061389999999997890701" rpy="-3.141592653589793116 2.2204460492487592714e-16 1.5707963267948892305" />
<geometry>
<mesh filename="package://hephaestus_description/meshes/screw_torx_m1-6_x_4l.stl"/>
</geometry>
<material name="screw_torx_m1-6_x_4l_material">
<color rgba="0.5999999999999999778 0.5999999999999999778 0.5999999999999999778 1.0"/>
</material>
</visual>
<collision>
<origin xyz="0.083049999999999069011 0.010725000000002080092 -0.061389999999997890701" rpy="-3.141592653589793116 2.2204460492487592714e-16 1.5707963267948892305" />
<geometry>
<mesh filename="package://hephaestus_description/meshes/screw_torx_m1-6_x_4l.stl"/>
</geometry>
</collision>
<visual>
<origin xyz="0.0060000000000000053291 0.010392304845413272152 -0.0070000000000000096867" rpy="-2.1303030973312384195e-25 -3.1252778143198440603e-14 -1.570796326794896558" />
<geometry>
<mesh filename="package://hephaestus_description/meshes/m4_10mm.stl"/>
</geometry>
<material name="m4_10mm_material">
<color rgba="0.90196078431372550543 0.90196078431372550543 0.90196078431372550543 1.0"/>
</material>
</visual>
<collision>
<origin xyz="0.0060000000000000053291 0.010392304845413272152 -0.0070000000000000096867" rpy="-2.1303030973312384195e-25 -3.1252778143198440603e-14 -1.570796326794896558" />
<geometry>
<mesh filename="package://hephaestus_description/meshes/m4_10mm.stl"/>
</geometry>
</collision>
<visual>
<origin xyz="0.076099999999998724221 2.4702462297909733024e-15 -0.069249999999997258193" rpy="-3.141592653589793116 2.2204460492487592714e-16 1.5707963267948892305" />
<geometry>
<mesh filename="package://hephaestus_description/meshes/heatsink_asrc.stl"/>
</geometry>
<material name="heatsink_asrc_material">
<color rgba="0.5999999999999999778 0.5999999999999999778 0.5999999999999999778 1.0"/>
</material>
</visual>
<collision>
<origin xyz="0.076099999999998724221 2.4702462297909733024e-15 -0.069249999999997258193" rpy="-3.141592653589793116 2.2204460492487592714e-16 1.5707963267948892305" />
<geometry>
<mesh filename="package://hephaestus_description/meshes/heatsink_asrc.stl"/>
</geometry>
</collision>
<visual>
<origin xyz="0.076099999999998169109 -0.036099999999997856026 -0.05337499999999877065" rpy="1.5707963267949227593 -3.6655050507481515617e-14 -3.1415926535897518157" />
<geometry>
<mesh filename="package://hephaestus_description/meshes/fillet11.stl"/>
</geometry>
<material name="fillet11_material">
<color rgba="0.5999999999999999778 0.5999999999999999778 0.5999999999999999778 1.0"/>
</material>
</visual>
<collision>
<origin xyz="0.076099999999998169109 -0.036099999999997856026 -0.05337499999999877065" rpy="1.5707963267949227593 -3.6655050507481515617e-14 -3.1415926535897518157" />
<geometry>
<mesh filename="package://hephaestus_description/meshes/fillet11.stl"/>
</geometry>
</collision>
<visual>
<origin xyz="9.9999999999544897378e-05 5.1347814888913489995e-16 -0.016999999999999775707" rpy="3.141592653589793116 3.5971225998084718786e-14 8.7090243936399183155e-28" />
<geometry>
<mesh filename="package://hephaestus_description/meshes/body.stl"/>
</geometry>
<material name="body_material">
<color rgba="0.078431372549019606755 0.078431372549019606755 0.078431372549019606755 1.0"/>
</material>
</visual>
<collision>
<origin xyz="9.9999999999544897378e-05 5.1347814888913489995e-16 -0.016999999999999775707" rpy="3.141592653589793116 3.5971225998084718786e-14 8.7090243936399183155e-28" />
<geometry>
<mesh filename="package://hephaestus_description/meshes/body.stl"/>
</geometry>
</collision>
<visual>
<origin xyz="9.9999999999544897378e-05 5.1347814888913489995e-16 -0.016999999999999775707" rpy="3.141592653589793116 3.5971225998084718786e-14 8.7090243936399183155e-28" />
<geometry>
<mesh filename="package://hephaestus_description/meshes/ttl_plugger.stl"/>
</geometry>
<material name="ttl_plugger_material">
<color rgba="1 1 1 1.0"/>
</material>
</visual>
<collision>
<origin xyz="9.9999999999544897378e-05 5.1347814888913489995e-16 -0.016999999999999775707" rpy="3.141592653589793116 3.5971225998084718786e-14 8.7090243936399183155e-28" />
<geometry>
<mesh filename="package://hephaestus_description/meshes/ttl_plugger.stl"/>
</geometry>
</collision>
<visual>
<origin xyz="0.0090999999999978875564 0.029820508075690824179 -0.08170000000000186835" rpy="-1.570796326794896558 -2.2204460492480458453e-16 -1.5707963267949038855" />
<geometry>
<mesh filename="package://hephaestus_description/meshes/f684zz.stl"/>
</geometry>
<material name="f684zz_material">
<color rgba="0.80000000000000004441 0.80000000000000004441 0.80000000000000004441 1.0"/>
</material>
</visual>
<collision>
<origin xyz="0.0090999999999978875564 0.029820508075690824179 -0.08170000000000186835" rpy="-1.570796326794896558 -2.2204460492480458453e-16 -1.5707963267949038855" />
<geometry>
<mesh filename="package://hephaestus_description/meshes/f684zz.stl"/>
</geometry>
</collision>
<visual>
<origin xyz="9.9999999999544897378e-05 5.1347814888913489995e-16 -0.016999999999999775707" rpy="3.141592653589793116 3.5971225998084718786e-14 8.7090243936399183155e-28" />
<geometry>
<mesh filename="package://hephaestus_description/meshes/can_switcher.stl"/>
</geometry>
<material name="can_switcher_material">
<color rgba="0.078431372549019606755 0.078431372549019606755 0.078431372549019606755 1.0"/>
</material>
</visual>
<collision>
<origin xyz="9.9999999999544897378e-05 5.1347814888913489995e-16 -0.016999999999999775707" rpy="3.141592653589793116 3.5971225998084718786e-14 8.7090243936399183155e-28" />
<geometry>
<mesh filename="package://hephaestus_description/meshes/can_switcher.stl"/>
</geometry>
</collision>
<visual>
<origin xyz="0.084499999999998354205 0.0072500000000017827961 -0.053709999999998578324" rpy="-1.5707963267949276442 -2.2895993991489004143e-15 -1.5707963267949047736" />
<geometry>
<mesh filename="package://hephaestus_description/meshes/magnet.stl"/>
</geometry>
<material name="magnet_material">
<color rgba="0.5999999999999999778 0.5999999999999999778 0.5999999999999999778 1.0"/>
</material>
</visual>
<collision>
<origin xyz="0.084499999999998354205 0.0072500000000017827961 -0.053709999999998578324" rpy="-1.5707963267949276442 -2.2895993991489004143e-15 -1.5707963267949047736" />
<geometry>
<mesh filename="package://hephaestus_description/meshes/magnet.stl"/>
</geometry>
</collision>
<visual>
<origin xyz="9.9999999999544897378e-05 5.1347814888913489995e-16 -0.016999999999999775707" rpy="3.141592653589793116 3.5971225998084718786e-14 8.7090243936399183155e-28" />
<geometry>
<mesh filename="package://hephaestus_description/meshes/m2_5x5_5.stl"/>
</geometry>
<material name="m2_5x5_5_material">
<color rgba="0.5999999999999999778 0.5999999999999999778 0.5999999999999999778 1.0"/>
</material>
</visual>
<collision>
<origin xyz="9.9999999999544897378e-05 5.1347814888913489995e-16 -0.016999999999999775707" rpy="3.141592653589793116 3.5971225998084718786e-14 8.7090243936399183155e-28" />
<geometry>
<mesh filename="package://hephaestus_description/meshes/m2_5x5_5.stl"/>
</geometry>
</collision>
<visual>
<origin xyz="9.9999999997102406724e-05 2.9559688030644792889e-15 -0.11220000000000185381" rpy="3.141592653589793116 -3.3306690738852115604e-16 -1.5707963267949038855" />
<geometry>
<mesh filename="package://hephaestus_description/meshes/f684zz.stl"/>
</geometry>
<material name="f684zz_material">
<color rgba="0.80000000000000004441 0.80000000000000004441 0.80000000000000004441 1.0"/>
</material>
</visual>
<collision>
<origin xyz="9.9999999997102406724e-05 2.9559688030644792889e-15 -0.11220000000000185381" rpy="3.141592653589793116 -3.3306690738852115604e-16 -1.5707963267949038855" />
<geometry>
<mesh filename="package://hephaestus_description/meshes/f684zz.stl"/>
</geometry>
</collision>
<visual>
<origin xyz="0.025000000000000022204 1.3877787807814456755e-17 -0.010000000000000005412" rpy="-1.570796326794896558 5.8721694821357118235e-30 1.570796326794896558" />
<geometry>
<mesh filename="package://hephaestus_description/meshes/m3_6mm.stl"/>
</geometry>
<material name="m3_6mm_material">
<color rgba="0.90196078431372550543 0.90196078431372550543 0.90196078431372550543 1.0"/>
</material>
</visual>
<collision>
<origin xyz="0.025000000000000022204 1.3877787807814456755e-17 -0.010000000000000005412" rpy="-1.570796326794896558 5.8721694821357118235e-30 1.570796326794896558" />
<geometry>
<mesh filename="package://hephaestus_description/meshes/m3_6mm.stl"/>
</geometry>
</collision>
<visual>
<origin xyz="-0.016900000000003134737 -0.012499999999997679634 -0.091700000000001766209" rpy="-1.5707963267948785724 -3.3306690738706970128e-16 -1.5707963267949038855" />
<geometry>
<mesh filename="package://hephaestus_description/meshes/f684zz.stl"/>
</geometry>
<material name="f684zz_material">
<color rgba="0.80000000000000004441 0.80000000000000004441 0.80000000000000004441 1.0"/>
</material>
</visual>
<collision>
<origin xyz="-0.016900000000003134737 -0.012499999999997679634 -0.091700000000001766209" rpy="-1.5707963267948785724 -3.3306690738706970128e-16 -1.5707963267949038855" />
<geometry>
<mesh filename="package://hephaestus_description/meshes/f684zz.stl"/>
</geometry>
</collision>
<visual>
<origin xyz="-0.008900000000001462297 0.067107039954219099842 -0.13494203734336024381" rpy="-1.5707963267949092145 0.032559551067986268469 1.5707963267948790165" />
<geometry>
<mesh filename="package://hephaestus_description/meshes/f684zz.stl"/>
</geometry>
<material name="f684zz_material">
<color rgba="0.80000000000000004441 0.80000000000000004441 0.80000000000000004441 1.0"/>
</material>
</visual>
<collision>
<origin xyz="-0.008900000000001462297 0.067107039954219099842 -0.13494203734336024381" rpy="-1.5707963267949092145 0.032559551067986268469 1.5707963267948790165" />
<geometry>
<mesh filename="package://hephaestus_description/meshes/f684zz.stl"/>
</geometry>
</collision>
<visual>
<origin xyz="-0.0021000000000030993874 0.012829518336757606001 -0.081146585425319689433" rpy="-1.5707963267949092145 0.032559551067982757389 1.5707963267948781283" />
<geometry>
<mesh filename="package://hephaestus_description/meshes/f683zz.stl"/>
</geometry>
<material name="f683zz_material">
<color rgba="0.80000000000000004441 0.80000000000000004441 0.80000000000000004441 1.0"/>
</material>
</visual>
<collision>
<origin xyz="-0.0021000000000030993874 0.012829518336757606001 -0.081146585425319689433" rpy="-1.5707963267949092145 0.032559551067982757389 1.5707963267948781283" />
<geometry>
<mesh filename="package://hephaestus_description/meshes/f683zz.stl"/>
</geometry>
</collision>
<visual>
<origin xyz="9.9999999997213429026e-05 1.0130785099704553431e-15 -0.049200000000000701506" rpy="-1.570796326794851705 -2.2204460492488041378e-16 -1.5707963267949038855" />
<geometry>
<mesh filename="package://hephaestus_description/meshes/gripper_bottom.stl"/>
</geometry>
<material name="gripper_bottom_material">
<color rgba="0.30196078431372547213 0.30196078431372547213 0.30196078431372547213 1.0"/>
</material>
</visual>
<collision>
<origin xyz="9.9999999997213429026e-05 1.0130785099704553431e-15 -0.049200000000000701506" rpy="-1.570796326794851705 -2.2204460492488041378e-16 -1.5707963267949038855" />
<geometry>
<mesh filename="package://hephaestus_description/meshes/gripper_bottom.stl"/>
</geometry>
</collision>
<visual>
<origin xyz="0.076099999999998724221 2.4702462297909733024e-15 -0.069249999999997258193" rpy="-3.141592653589793116 2.2204460492487592714e-16 1.5707963267948892305" />
<geometry>
<mesh filename="package://hephaestus_description/meshes/front_cover_aluminum_asrc.stl"/>
</geometry>
<material name="front_cover_aluminum_asrc_material">
<color rgba="0.5999999999999999778 0.5999999999999999778 0.5999999999999999778 1.0"/>
</material>
</visual>
<collision>
<origin xyz="0.076099999999998724221 2.4702462297909733024e-15 -0.069249999999997258193" rpy="-3.141592653589793116 2.2204460492487592714e-16 1.5707963267948892305" />
<geometry>
<mesh filename="package://hephaestus_description/meshes/front_cover_aluminum_asrc.stl"/>
</geometry>
</collision>
<visual>
<origin xyz="0.076099999999998169109 -0.036149999999997850519 -0.053329999999998600746" rpy="-3.141592653589793116 2.2204460492487592714e-16 1.5707963267948892305" />
<geometry>
<mesh filename="package://hephaestus_description/meshes/locking_c_type_usb.stl"/>
</geometry>
<material name="locking_c_type_usb_material">
<color rgba="0.5999999999999999778 0.5999999999999999778 0.5999999999999999778 1.0"/>
</material>
</visual>
<collision>
<origin xyz="0.076099999999998169109 -0.036149999999997850519 -0.053329999999998600746" rpy="-3.141592653589793116 2.2204460492487592714e-16 1.5707963267948892305" />
<geometry>
<mesh filename="package://hephaestus_description/meshes/locking_c_type_usb.stl"/>
</geometry>
</collision>
<visual>
<origin xyz="9.9999999999544897378e-05 5.1347814888913489995e-16 -0.016999999999999775707" rpy="3.141592653589793116 3.5971225998084718786e-14 8.7090243936399183155e-28" />
<geometry>
<mesh filename="package://hephaestus_description/meshes/pcb.stl"/>
</geometry>
<material name="pcb_material">
<color rgba="0.30196078431372547213 0.30196078431372547213 0.30196078431372547213 1.0"/>
</material>
</visual>
<collision>
<origin xyz="9.9999999999544897378e-05 5.1347814888913489995e-16 -0.016999999999999775707" rpy="3.141592653589793116 3.5971225998084718786e-14 8.7090243936399183155e-28" />
<geometry>
<mesh filename="package://hephaestus_description/meshes/pcb.stl"/>
</geometry>
</collision>
<visual>
<origin xyz="0.0030999999999968830267 0.012829518336757564367 -0.081146585425319620044" rpy="1.5707963267948246155 1.3937347351366016213 1.5707963267948072961" />
<geometry>
<mesh filename="package://hephaestus_description/meshes/inner_rod.stl"/>
</geometry>
<material name="inner_rod_material">
<color rgba="0.80000000000000004441 0.80000000000000004441 0.80000000000000004441 1.0"/>
</material>
</visual>
<collision>
<origin xyz="0.0030999999999968830267 0.012829518336757564367 -0.081146585425319620044" rpy="1.5707963267948246155 1.3937347351366016213 1.5707963267948072961" />
<geometry>
<mesh filename="package://hephaestus_description/meshes/inner_rod.stl"/>
</geometry>
</collision>
<visual>
<origin xyz="9.9999999999433875075e-05 1.9428902930940239457e-16 -0.017000000000000129591" rpy="-1.570796326794896558 6.0809677133655900537e-29 -1.5707963267949038855" />
<geometry>
<mesh filename="package://hephaestus_description/meshes/gripper_connector.stl"/>
</geometry>
<material name="gripper_connector_material">
<color rgba="0.80000000000000004441 0.80000000000000004441 0.80000000000000004441 1.0"/>
</material>
</visual>
<collision>
<origin xyz="9.9999999999433875075e-05 1.9428902930940239457e-16 -0.017000000000000129591" rpy="-1.570796326794896558 6.0809677133655900537e-29 -1.5707963267949038855" />
<geometry>
<mesh filename="package://hephaestus_description/meshes/gripper_connector.stl"/>
</geometry>
</collision>
<visual>
<origin xyz="0.0090999999999978875564 0.068799837476772485179 -0.082969598141917594303" rpy="-1.5707963267948839015 -0.032559551067984422723 -1.5707963267949136554" />
<geometry>
<mesh filename="package://hephaestus_description/meshes/f684zz.stl"/>
</geometry>
<material name="f684zz_material">
<color rgba="0.80000000000000004441 0.80000000000000004441 0.80000000000000004441 1.0"/>
</material>
</visual>
<collision>
<origin xyz="0.0090999999999978875564 0.068799837476772485179 -0.082969598141917594303" rpy="-1.5707963267948839015 -0.032559551067984422723 -1.5707963267949136554" />
<geometry>
<mesh filename="package://hephaestus_description/meshes/f684zz.stl"/>
</geometry>
</collision>
<visual>
<origin xyz="9.9999999999544897378e-05 5.1347814888913489995e-16 -0.016999999999999775707" rpy="3.141592653589793116 3.5971225998084718786e-14 8.7090243936399183155e-28" />
<geometry>
<mesh filename="package://hephaestus_description/meshes/m2_5x5_3.stl"/>
</geometry>
<material name="m2_5x5_3_material">
<color rgba="0.5999999999999999778 0.5999999999999999778 0.5999999999999999778 1.0"/>
</material>
</visual>
<collision>
<origin xyz="9.9999999999544897378e-05 5.1347814888913489995e-16 -0.016999999999999775707" rpy="3.141592653589793116 3.5971225998084718786e-14 8.7090243936399183155e-28" />
<geometry>
<mesh filename="package://hephaestus_description/meshes/m2_5x5_3.stl"/>
</geometry>
</collision>
<visual>
<origin xyz="0.076094999999998025331 -0.0294999999999979029 -0.053324999999998873301" rpy="-1.5707963267948703567 -3.6738317234328389736e-14 -3.1415926535897522598" />
<geometry>
<mesh filename="package://hephaestus_description/meshes/boss-extrude4.stl"/>
</geometry>
<material name="boss-extrude4_material">
<color rgba="0.5999999999999999778 0.5999999999999999778 0.5999999999999999778 1.0"/>
</material>
</visual>
<collision>
<origin xyz="0.076094999999998025331 -0.0294999999999979029 -0.053324999999998873301" rpy="-1.5707963267948703567 -3.6738317234328389736e-14 -3.1415926535897522598" />
<geometry>
<mesh filename="package://hephaestus_description/meshes/boss-extrude4.stl"/>
</geometry>
</collision>
<visual>
<origin xyz="0.010099999999996667199 -0.067107039954211439303 -0.13494203734336057687" rpy="1.5707963267948785724 -0.032559551067991451823 1.5707963267948883423" />
<geometry>
<mesh filename="package://hephaestus_description/meshes/jaw_5_2_right.stl"/>
</geometry>
<material name="jaw_5_2_right_material">
<color rgba="0.80000000000000004441 0.80000000000000004441 0.80000000000000004441 1.0"/>
</material>
</visual>
<collision>
<origin xyz="0.010099999999996667199 -0.067107039954211439303 -0.13494203734336057687" rpy="1.5707963267948785724 -0.032559551067991451823 1.5707963267948883423" />
<geometry>
<mesh filename="package://hephaestus_description/meshes/jaw_5_2_right.stl"/>
</geometry>
</collision>
<visual>
<origin xyz="0.076099999999998724221 2.4702462297909733024e-15 -0.069249999999997258193" rpy="-3.141592653589793116 2.2204460492487592714e-16 1.5707963267948892305" />
<geometry>
<mesh filename="package://hephaestus_description/meshes/ds5_0390_label_front_adhesive.stl"/>
</geometry>
<material name="ds5_0390_label_front_adhesive_material">
<color rgba="0.5999999999999999778 0.5999999999999999778 0.5999999999999999778 1.0"/>
</material>
</visual>
<collision>
<origin xyz="0.076099999999998724221 2.4702462297909733024e-15 -0.069249999999997258193" rpy="-3.141592653589793116 2.2204460492487592714e-16 1.5707963267948892305" />
<geometry>
<mesh filename="package://hephaestus_description/meshes/ds5_0390_label_front_adhesive.stl"/>
</geometry>
</collision>
<visual>
<origin xyz="0.076099999999998724221 2.4702462297909733024e-15 -0.069249999999997258193" rpy="-3.141592653589793116 2.2204460492487592714e-16 1.5707963267948892305" />
<geometry>
<mesh filename="package://hephaestus_description/meshes/rear_cover_aluminum_asrc.stl"/>
</geometry>
<material name="rear_cover_aluminum_asrc_material">
<color rgba="0.5999999999999999778 0.5999999999999999778 0.5999999999999999778 1.0"/>
</material>
</visual>
<collision>
<origin xyz="0.076099999999998724221 2.4702462297909733024e-15 -0.069249999999997258193" rpy="-3.141592653589793116 2.2204460492487592714e-16 1.5707963267948892305" />
<geometry>
<mesh filename="package://hephaestus_description/meshes/rear_cover_aluminum_asrc.stl"/>
</geometry>
</collision>
<visual>
<origin xyz="-0.0059000000000035690562 -0.015999999999998862354 -0.098865164545075406854" rpy="1.5707963267947915309 -1.3937347351365689807 1.570796326794946518" />
<geometry>
<mesh filename="package://hephaestus_description/meshes/inner_rod.stl"/>
</geometry>
<material name="inner_rod_material">
<color rgba="0.80000000000000004441 0.80000000000000004441 0.80000000000000004441 1.0"/>
</material>
</visual>
<collision>
<origin xyz="-0.0059000000000035690562 -0.015999999999998862354 -0.098865164545075406854" rpy="1.5707963267947915309 -1.3937347351365689807 1.570796326794946518" />
<geometry>
<mesh filename="package://hephaestus_description/meshes/inner_rod.stl"/>
</geometry>
</collision>
<visual>
<origin xyz="0.01709999999999778364 0.012500000000002342571 -0.091700000000002224176" rpy="-1.570796326794896558 2.2204460492488849961e-16 1.5707963267948892305" />
<geometry>
<mesh filename="package://hephaestus_description/meshes/f684zz.stl"/>
</geometry>
<material name="f684zz_material">
<color rgba="0.80000000000000004441 0.80000000000000004441 0.80000000000000004441 1.0"/>
</material>
</visual>
<collision>
<origin xyz="0.01709999999999778364 0.012500000000002342571 -0.091700000000002224176" rpy="-1.570796326794896558 2.2204460492488849961e-16 1.5707963267948892305" />
<geometry>
<mesh filename="package://hephaestus_description/meshes/f684zz.stl"/>
</geometry>
</collision>
<visual>
<origin xyz="9.9999999999544897378e-05 5.1347814888913489995e-16 -0.016999999999999775707" rpy="3.141592653589793116 3.5971225998084718786e-14 8.7090243936399183155e-28" />
<geometry>
<mesh filename="package://hephaestus_description/meshes/top_cover.stl"/>
</geometry>
<material name="top_cover_material">
<color rgba="0.078431372549019606755 0.078431372549019606755 0.078431372549019606755 1.0"/>
</material>
</visual>
<collision>
<origin xyz="9.9999999999544897378e-05 5.1347814888913489995e-16 -0.016999999999999775707" rpy="3.141592653589793116 3.5971225998084718786e-14 8.7090243936399183155e-28" />
<geometry>
<mesh filename="package://hephaestus_description/meshes/top_cover.stl"/>
</geometry>
</collision>
<visual>
<origin xyz="-0.0084000000000019614532 -0.049786531878522471972 -0.14494203734336150169" rpy="-1.5707963267948830133 -0.52359877559832046501 -1.570796326794901665" />
<geometry>
<mesh filename="package://hephaestus_description/meshes/f684zz.stl"/>
</geometry>
<material name="f684zz_material">
<color rgba="0.80000000000000004441 0.80000000000000004441 0.80000000000000004441 1.0"/>
</material>
</visual>
<collision>
<origin xyz="-0.0084000000000019614532 -0.049786531878522471972 -0.14494203734336150169" rpy="-1.5707963267948830133 -0.52359877559832046501 -1.570796326794901665" />
<geometry>
<mesh filename="package://hephaestus_description/meshes/f684zz.stl"/>
</geometry>
</collision>
<visual>
<origin xyz="0.0085999999999994969357 0.049786531878531617434 -0.14494203734336144618" rpy="-1.5707963267949174302 -0.52359877559843137629 1.5707963267948894526" />
<geometry>
<mesh filename="package://hephaestus_description/meshes/f684zz.stl"/>
</geometry>
<material name="f684zz_material">
<color rgba="0.80000000000000004441 0.80000000000000004441 0.80000000000000004441 1.0"/>
</material>
</visual>
<collision>
<origin xyz="0.0085999999999994969357 0.049786531878531617434 -0.14494203734336144618" rpy="-1.5707963267949174302 -0.52359877559843137629 1.5707963267948894526" />
<geometry>
<mesh filename="package://hephaestus_description/meshes/f684zz.stl"/>
</geometry>
</collision>
<visual>
<origin xyz="-0.025000000000000022204 -1.3877787807814456755e-17 -0.010000000000000005412" rpy="-1.570796326794896558 2.9255240924857837217e-29 -1.5707963267949038855" />
<geometry>
<mesh filename="package://hephaestus_description/meshes/m3_6mm.stl"/>
</geometry>
<material name="m3_6mm_material">
<color rgba="0.90196078431372550543 0.90196078431372550543 0.90196078431372550543 1.0"/>
</material>
</visual>
<collision>
<origin xyz="-0.025000000000000022204 -1.3877787807814456755e-17 -0.010000000000000005412" rpy="-1.570796326794896558 2.9255240924857837217e-29 -1.5707963267949038855" />
<geometry>
<mesh filename="package://hephaestus_description/meshes/m3_6mm.stl"/>
</geometry>
</collision>
<visual>
<origin xyz="9.9999999999544897378e-05 5.1347814888913489995e-16 -0.016999999999999775707" rpy="3.141592653589793116 3.5971225998084718786e-14 8.7090243936399183155e-28" />
<geometry>
<mesh filename="package://hephaestus_description/meshes/m2_5x5_1.stl"/>
</geometry>
<material name="m2_5x5_1_material">
<color rgba="0.5999999999999999778 0.5999999999999999778 0.5999999999999999778 1.0"/>
</material>
</visual>
<collision>
<origin xyz="9.9999999999544897378e-05 5.1347814888913489995e-16 -0.016999999999999775707" rpy="3.141592653589793116 3.5971225998084718786e-14 8.7090243936399183155e-28" />
<geometry>
<mesh filename="package://hephaestus_description/meshes/m2_5x5_1.stl"/>
</geometry>
</collision>
<visual>
<origin xyz="0.070999999999998841815 0.0052000000000024526603 -0.06837999999999755385" rpy="-3.141592653589793116 2.2204460492487592714e-16 1.5707963267948892305" />
<geometry>
<mesh filename="package://hephaestus_description/meshes/bracket_b2b_conn_support_asrc.stl"/>
</geometry>
<material name="bracket_b2b_conn_support_asrc_material">
<color rgba="0.5999999999999999778 0.5999999999999999778 0.5999999999999999778 1.0"/>
</material>
</visual>
<collision>
<origin xyz="0.070999999999998841815 0.0052000000000024526603 -0.06837999999999755385" rpy="-3.141592653589793116 2.2204460492487592714e-16 1.5707963267948892305" />
<geometry>
<mesh filename="package://hephaestus_description/meshes/bracket_b2b_conn_support_asrc.stl"/>
</geometry>
</collision>
<visual>
<origin xyz="9.9999999999544897378e-05 5.1347814888913489995e-16 -0.016999999999999775707" rpy="3.141592653589793116 3.5971225998084718786e-14 8.7090243936399183155e-28" />
<geometry>
<mesh filename="package://hephaestus_description/meshes/m2_5x5_4.stl"/>
</geometry>
<material name="m2_5x5_4_material">
<color rgba="0.5999999999999999778 0.5999999999999999778 0.5999999999999999778 1.0"/>
</material>
</visual>
<collision>
<origin xyz="9.9999999999544897378e-05 5.1347814888913489995e-16 -0.016999999999999775707" rpy="3.141592653589793116 3.5971225998084718786e-14 8.7090243936399183155e-28" />
<geometry>
<mesh filename="package://hephaestus_description/meshes/m2_5x5_4.stl"/>
</geometry>
</collision>
<visual>
<origin xyz="-0.020900000000003027267 0.015366878933875456614 -0.089692263668080945971" rpy="1.5707963267948652497 0.95985476906956557208 1.5707963267948950037" />
<geometry>
<mesh filename="package://hephaestus_description/meshes/jaw_6_5.stl"/>
</geometry>
<material name="jaw_6_5_material">
<color rgba="0.80000000000000004441 0.80000000000000004441 0.80000000000000004441 1.0"/>
</material>
</visual>
<collision>
<origin xyz="-0.020900000000003027267 0.015366878933875456614 -0.089692263668080945971" rpy="1.5707963267948652497 0.95985476906956557208 1.5707963267948950037" />
<geometry>
<mesh filename="package://hephaestus_description/meshes/jaw_6_5.stl"/>
</geometry>
</collision>
<visual>
<origin xyz="0.076099999999998946265 2.4424906541753443889e-15 -0.069249999999997369216" rpy="-3.141592653589793116 2.2204460492487585318e-16 1.5707963267948892305" />
<geometry>
<mesh filename="package://hephaestus_description/meshes/adhesive_lens_cover_asrc.stl"/>
</geometry>
<material name="adhesive_lens_cover_asrc_material">
<color rgba="0.5999999999999999778 0.5999999999999999778 0.5999999999999999778 1.0"/>
</material>
</visual>
<collision>
<origin xyz="0.076099999999998946265 2.4424906541753443889e-15 -0.069249999999997369216" rpy="-3.141592653589793116 2.2204460492487585318e-16 1.5707963267948892305" />
<geometry>
<mesh filename="package://hephaestus_description/meshes/adhesive_lens_cover_asrc.stl"/>
</geometry>
</collision>
<visual>
<origin xyz="-0.00890000000000257252 -0.067107039954211328281 -0.13494203734336035483" rpy="-1.5707963267949145436 -0.032559551067993158791 1.5707963267948896746" />
<geometry>
<mesh filename="package://hephaestus_description/meshes/f684zz.stl"/>
</geometry>
<material name="f684zz_material">
<color rgba="0.80000000000000004441 0.80000000000000004441 0.80000000000000004441 1.0"/>
</material>
</visual>
<collision>
<origin xyz="-0.00890000000000257252 -0.067107039954211328281 -0.13494203734336035483" rpy="-1.5707963267949145436 -0.032559551067993158791 1.5707963267948896746" />
<geometry>
<mesh filename="package://hephaestus_description/meshes/f684zz.stl"/>
</geometry>
</collision>
<visual>
<origin xyz="-0.0021000000000030993874 0.016000000000002283229 -0.098865164545075295832" rpy="-1.5707963267949596187 2.220446049243268553e-16 1.5707963267948832353" />
<geometry>
<mesh filename="package://hephaestus_description/meshes/f683zz.stl"/>
</geometry>
<material name="f683zz_material">
<color rgba="0.80000000000000004441 0.80000000000000004441 0.80000000000000004441 1.0"/>
</material>
</visual>
<collision>
<origin xyz="-0.0021000000000030993874 0.016000000000002283229 -0.098865164545075295832" rpy="-1.5707963267949596187 2.220446049243268553e-16 1.5707963267948832353" />
<geometry>
<mesh filename="package://hephaestus_description/meshes/f683zz.stl"/>
</geometry>
</collision>
<visual>
<origin xyz="0.0060000000000000053291 -0.010392304845413244396 -0.0070000000000000027478" rpy="-2.1303030973312384195e-25 -3.1252778143198440603e-14 -1.570796326794896558" />
<geometry>
<mesh filename="package://hephaestus_description/meshes/m4_10mm.stl"/>
</geometry>
<material name="m4_10mm_material">
<color rgba="0.90196078431372550543 0.90196078431372550543 0.90196078431372550543 1.0"/>
</material>
</visual>
<collision>
<origin xyz="0.0060000000000000053291 -0.010392304845413244396 -0.0070000000000000027478" rpy="-2.1303030973312384195e-25 -3.1252778143198440603e-14 -1.570796326794896558" />
<geometry>
<mesh filename="package://hephaestus_description/meshes/m4_10mm.stl"/>
</geometry>
</collision>
<visual>
<origin xyz="0.012499999999999955591 -0.021650635094610931608 -0.010000000000000005412" rpy="-1.570796326794896558 -0 0.52359877559830236837" />
<geometry>
<mesh filename="package://hephaestus_description/meshes/m3_6mm.stl"/>
</geometry>
<material name="m3_6mm_material">
<color rgba="0.90196078431372550543 0.90196078431372550543 0.90196078431372550543 1.0"/>
</material>
</visual>
<collision>
<origin xyz="0.012499999999999955591 -0.021650635094610931608 -0.010000000000000005412" rpy="-1.570796326794896558 -0 0.52359877559830236837" />
<geometry>
<mesh filename="package://hephaestus_description/meshes/m3_6mm.stl"/>
</geometry>
</collision>
<visual>
<origin xyz="-0.020900000000003249312 -0.0096331210661245308957 -0.093707736331922475426" rpy="-1.5707963267948752417 0.95985476906962063914 -1.5707963267949047736" />
<geometry>
<mesh filename="package://hephaestus_description/meshes/jaw_6_5.stl"/>
</geometry>
<material name="jaw_6_5_material">
<color rgba="0.80000000000000004441 0.80000000000000004441 0.80000000000000004441 1.0"/>
</material>
</visual>
<collision>
<origin xyz="-0.020900000000003249312 -0.0096331210661245308957 -0.093707736331922475426" rpy="-1.5707963267948752417 0.95985476906962063914 -1.5707963267949047736" />
<geometry>
<mesh filename="package://hephaestus_description/meshes/jaw_6_5.stl"/>
</geometry>
</collision>
<visual>
<origin xyz="0.0022999999999968601117 -0.012829518336753650831 -0.081146585425319439633" rpy="-1.5707963267948781283 0.032559551067992506534 -1.5707963267949034414" />
<geometry>
<mesh filename="package://hephaestus_description/meshes/f683zz.stl"/>
</geometry>
<material name="f683zz_material">
<color rgba="0.80000000000000004441 0.80000000000000004441 0.80000000000000004441 1.0"/>
</material>
</visual>
<collision>
<origin xyz="0.0022999999999968601117 -0.012829518336753650831 -0.081146585425319439633" rpy="-1.5707963267948781283 0.032559551067992506534 -1.5707963267949034414" />
<geometry>
<mesh filename="package://hephaestus_description/meshes/f683zz.stl"/>
</geometry>
</collision>
<visual>
<origin xyz="0.010099999999997888445 0.068799837476772485179 -0.082969598141917580425" rpy="-1.5707963267948839015 -0.03255955106798789217 -1.5707963267949147657" />
<geometry>
<mesh filename="package://hephaestus_description/meshes/jaw_5_2_left.stl"/>
</geometry>
<material name="jaw_5_2_left_material">
<color rgba="0.80000000000000004441 0.80000000000000004441 0.80000000000000004441 1.0"/>
</material>
</visual>
<collision>
<origin xyz="0.010099999999997888445 0.068799837476772485179 -0.082969598141917580425" rpy="-1.5707963267948839015 -0.03255955106798789217 -1.5707963267949147657" />
<geometry>
<mesh filename="package://hephaestus_description/meshes/jaw_5_2_left.stl"/>
</geometry>
</collision>
<visual>
<origin xyz="0.076099999999998946265 2.4424906541753443889e-15 -0.069249999999997369216" rpy="-3.141592653589793116 2.2204460492487585318e-16 1.5707963267948892305" />
<geometry>
<mesh filename="package://hephaestus_description/meshes/lens_cover_asrc.stl"/>
</geometry>
<material name="lens_cover_asrc_material">
<color rgba="0.90196078431372550543 0.90196078431372550543 0.90196078431372550543 1.0"/>
</material>
</visual>
<collision>
<origin xyz="0.076099999999998946265 2.4424906541753443889e-15 -0.069249999999997369216" rpy="-3.141592653589793116 2.2204460492487585318e-16 1.5707963267948892305" />
<geometry>
<mesh filename="package://hephaestus_description/meshes/lens_cover_asrc.stl"/>
</geometry>
</collision>
<visual>
<origin xyz="0.083049999999998846967 -0.00037499999999787703153 -0.061389999999997835189" rpy="-3.141592653589793116 2.2204460492487592714e-16 1.5707963267948892305" />
<geometry>
<mesh filename="package://hephaestus_description/meshes/screw_torx_m1-6_x_4l.stl"/>
</geometry>
<material name="screw_torx_m1-6_x_4l_material">
<color rgba="0.5999999999999999778 0.5999999999999999778 0.5999999999999999778 1.0"/>
</material>
</visual>
<collision>
<origin xyz="0.083049999999998846967 -0.00037499999999787703153 -0.061389999999997835189" rpy="-3.141592653589793116 2.2204460492487592714e-16 1.5707963267948892305" />
<geometry>
<mesh filename="package://hephaestus_description/meshes/screw_torx_m1-6_x_4l.stl"/>
</geometry>
</collision>
<visual>
<origin xyz="0.012499999999999955591 0.021650635094610973241 -0.010000000000000005412" rpy="-1.570796326794896558 -1.2621774483536233728e-29 2.6179938779914939673" />
<geometry>
<mesh filename="package://hephaestus_description/meshes/m3_6mm.stl"/>
</geometry>
<material name="m3_6mm_material">
<color rgba="0.90196078431372550543 0.90196078431372550543 0.90196078431372550543 1.0"/>
</material>
</visual>
<collision>
<origin xyz="0.012499999999999955591 0.021650635094610973241 -0.010000000000000005412" rpy="-1.570796326794896558 -1.2621774483536233728e-29 2.6179938779914939673" />
<geometry>
<mesh filename="package://hephaestus_description/meshes/m3_6mm.stl"/>
</geometry>
</collision>
<visual>
<origin xyz="0.076099999999997947064 -0.039799999999997642819 -0.057209999999998373266" rpy="-6.8379577260681902416e-17 -2.2204460492489476119e-16 -1.5707963267949038855" />
<geometry>
<mesh filename="package://hephaestus_description/meshes/screw_torx_m2_x_5l.stl"/>
</geometry>
<material name="screw_torx_m2_x_5l_material">
<color rgba="0.5999999999999999778 0.5999999999999999778 0.5999999999999999778 1.0"/>
</material>
</visual>
<collision>
<origin xyz="0.076099999999997947064 -0.039799999999997642819 -0.057209999999998373266" rpy="-6.8379577260681902416e-17 -2.2204460492489476119e-16 -1.5707963267949038855" />
<geometry>
<mesh filename="package://hephaestus_description/meshes/screw_torx_m2_x_5l.stl"/>
</geometry>
</collision>
<visual>
<origin xyz="0.0085999999999983867127 -0.049786531878522499728 -0.14494203734336122413" rpy="-1.5707963267949105468 0.52359877559832046501 1.570796326794891673" />
<geometry>
<mesh filename="package://hephaestus_description/meshes/f684zz.stl"/>
</geometry>
<material name="f684zz_material">
<color rgba="0.80000000000000004441 0.80000000000000004441 0.80000000000000004441 1.0"/>
</material>
</visual>
<collision>
<origin xyz="0.0085999999999983867127 -0.049786531878522499728 -0.14494203734336122413" rpy="-1.5707963267949105468 0.52359877559832046501 1.570796326794891673" />
<geometry>
<mesh filename="package://hephaestus_description/meshes/f684zz.stl"/>
</geometry>
</collision>
<visual>
<origin xyz="-0.0099000000000014631851 0.067107039954219099842 -0.13494203734336027156" rpy="1.5707963267949092145 -0.032559551067984346395 -1.5707963267949136554" />
<geometry>
<mesh filename="package://hephaestus_description/meshes/jaw_5_2_right.stl"/>
</geometry>
<material name="jaw_5_2_right_material">
<color rgba="0.80000000000000004441 0.80000000000000004441 0.80000000000000004441 1.0"/>
</material>
</visual>
<collision>
<origin xyz="-0.0099000000000014631851 0.067107039954219099842 -0.13494203734336027156" rpy="1.5707963267949092145 -0.032559551067984346395 -1.5707963267949136554" />
<geometry>
<mesh filename="package://hephaestus_description/meshes/jaw_5_2_right.stl"/>
</geometry>
</collision>
<visual>
<origin xyz="0.016099999999997893774 2.3592239273284576484e-15 -0.091700000000002238054" rpy="-1.570796326794896558 2.2204460492488849961e-16 1.5707963267948892305" />
<geometry>
<mesh filename="package://hephaestus_description/meshes/gripper_base.stl"/>
</geometry>
<material name="gripper_base_material">
<color rgba="0.30196078431372547213 0.30196078431372547213 0.30196078431372547213 1.0"/>
</material>
</visual>
<collision>
<origin xyz="0.016099999999997893774 2.3592239273284576484e-15 -0.091700000000002238054" rpy="-1.570796326794896558 2.2204460492488849961e-16 1.5707963267948892305" />
<geometry>
<mesh filename="package://hephaestus_description/meshes/gripper_base.stl"/>
</geometry>
</collision>
<visual>
<origin xyz="9.9999999999544897378e-05 5.1347814888913489995e-16 -0.016999999999999775707" rpy="3.141592653589793116 3.5971225998084718786e-14 8.7090243936399183155e-28" />
<geometry>
<mesh filename="package://hephaestus_description/meshes/output_plate.stl"/>
</geometry>
<material name="output_plate_material">
<color rgba="0.80000000000000004441 0.80000000000000004441 0.80000000000000004441 1.0"/>
</material>
</visual>
<collision>
<origin xyz="9.9999999999544897378e-05 5.1347814888913489995e-16 -0.016999999999999775707" rpy="3.141592653589793116 3.5971225998084718786e-14 8.7090243936399183155e-28" />
<geometry>
<mesh filename="package://hephaestus_description/meshes/output_plate.stl"/>
</geometry>
</collision>
<visual>
<origin xyz="-0.012499999999999955591 -0.021650635094610945486 -0.010000000000000005412" rpy="-1.570796326794896558 1.8932661725304513143e-29 -0.52359877559829548499" />
<geometry>
<mesh filename="package://hephaestus_description/meshes/m3_6mm.stl"/>
</geometry>
<material name="m3_6mm_material">
<color rgba="0.90196078431372550543 0.90196078431372550543 0.90196078431372550543 1.0"/>
</material>
</visual>
<collision>
<origin xyz="-0.012499999999999955591 -0.021650635094610945486 -0.010000000000000005412" rpy="-1.570796326794896558 1.8932661725304513143e-29 -0.52359877559829548499" />
<geometry>
<mesh filename="package://hephaestus_description/meshes/m3_6mm.stl"/>
</geometry>
</collision>
<visual>
<origin xyz="0.02109999999999767617 -0.015366878933870828372 -0.089692263668081528838" rpy="1.5707963267949180963 0.95985476906962019505 -1.5707963267948779063" />
<geometry>
<mesh filename="package://hephaestus_description/meshes/jaw_6_5.stl"/>
</geometry>
<material name="jaw_6_5_material">
<color rgba="0.80000000000000004441 0.80000000000000004441 0.80000000000000004441 1.0"/>
</material>
</visual>
<collision>
<origin xyz="0.02109999999999767617 -0.015366878933870828372 -0.089692263668081528838" rpy="1.5707963267949180963 0.95985476906962019505 -1.5707963267948779063" />
<geometry>
<mesh filename="package://hephaestus_description/meshes/jaw_6_5.stl"/>
</geometry>
</collision>
<visual>
<origin xyz="-0.0089000000000035717207 -0.068799837476768543887 -0.082969598141918135537" rpy="-1.5707963267949145436 -0.032559551067992541229 1.5707963267948898967" />
<geometry>
<mesh filename="package://hephaestus_description/meshes/f684zz.stl"/>
</geometry>
<material name="f684zz_material">
<color rgba="0.80000000000000004441 0.80000000000000004441 0.80000000000000004441 1.0"/>
</material>
</visual>
<collision>
<origin xyz="-0.0089000000000035717207 -0.068799837476768543887 -0.082969598141918135537" rpy="-1.5707963267949145436 -0.032559551067992541229 1.5707963267948898967" />
<geometry>
<mesh filename="package://hephaestus_description/meshes/f684zz.stl"/>
</geometry>
</collision>
<visual>
<origin xyz="9.9999999999544897378e-05 5.1347814888913489995e-16 -0.016999999999999775707" rpy="3.141592653589793116 3.5971225998084718786e-14 8.7090243936399183155e-28" />
<geometry>
<mesh filename="package://hephaestus_description/meshes/m2_5x5.stl"/>
</geometry>
<material name="m2_5x5_material">
<color rgba="0.5999999999999999778 0.5999999999999999778 0.5999999999999999778 1.0"/>
</material>
</visual>
<collision>
<origin xyz="9.9999999999544897378e-05 5.1347814888913489995e-16 -0.016999999999999775707" rpy="3.141592653589793116 3.5971225998084718786e-14 8.7090243936399183155e-28" />
<geometry>
<mesh filename="package://hephaestus_description/meshes/m2_5x5.stl"/>
</geometry>
</collision>
<visual>
<origin xyz="-0.0099000000000035726089 -0.068799837476768571642 -0.082969598141918149414" rpy="-1.5707963267949145436 -0.032559551067993151852 1.5707963267948896746" />
<geometry>
<mesh filename="package://hephaestus_description/meshes/jaw_5_2_left.stl"/>
</geometry>
<material name="jaw_5_2_left_material">
<color rgba="0.80000000000000004441 0.80000000000000004441 0.80000000000000004441 1.0"/>
</material>
</visual>
<collision>
<origin xyz="-0.0099000000000035726089 -0.068799837476768571642 -0.082969598141918149414" rpy="-1.5707963267949145436 -0.032559551067993151852 1.5707963267948896746" />
<geometry>
<mesh filename="package://hephaestus_description/meshes/jaw_5_2_left.stl"/>
</geometry>
</collision>
<visual>
<origin xyz="9.9999999996880362119e-05 1.984523656517467316e-15 -0.10961516454507530538" rpy="5.55111512314360307e-16 1.7985612998700855196e-14 -3.141592653589793116" />
<geometry>
<mesh filename="package://hephaestus_description/meshes/part_1.stl"/>
</geometry>
<material name="part_1_material">
<color rgba="0.80000000000000004441 0.80000000000000004441 0.80000000000000004441 1.0"/>
</material>
</visual>
<collision>
<origin xyz="9.9999999996880362119e-05 1.984523656517467316e-15 -0.10961516454507530538" rpy="5.55111512314360307e-16 1.7985612998700855196e-14 -3.141592653589793116" />
<geometry>
<mesh filename="package://hephaestus_description/meshes/part_1.stl"/>
</geometry>
</collision>
<visual>
<origin xyz="-0.0021000000000034324543 -0.01599999999999889011 -0.098865164545075323588" rpy="-1.5707963267949596187 2.220446049243268553e-16 1.5707963267948832353" />
<geometry>
<mesh filename="package://hephaestus_description/meshes/f683zz.stl"/>
</geometry>
<material name="f683zz_material">
<color rgba="0.80000000000000004441 0.80000000000000004441 0.80000000000000004441 1.0"/>
</material>
</visual>
<collision>
<origin xyz="-0.0021000000000034324543 -0.01599999999999889011 -0.098865164545075323588" rpy="-1.5707963267949596187 2.220446049243268553e-16 1.5707963267948832353" />
<geometry>
<mesh filename="package://hephaestus_description/meshes/f683zz.stl"/>
</geometry>
</collision>
<visual>
<origin xyz="0.076449999999998685674 0.0051750000000022472468 -0.063239999999997797975" rpy="-1.5707963267949276442 -2.2895993991489004143e-15 -1.5707963267949047736" />
<geometry>
<mesh filename="package://hephaestus_description/meshes/bracket_camera_module_asrc.stl"/>
</geometry>
<material name="bracket_camera_module_asrc_material">
<color rgba="0.5999999999999999778 0.5999999999999999778 0.5999999999999999778 1.0"/>
</material>
</visual>
<collision>
<origin xyz="0.076449999999998685674 0.0051750000000022472468 -0.063239999999997797975" rpy="-1.5707963267949276442 -2.2895993991489004143e-15 -1.5707963267949047736" />
<geometry>
<mesh filename="package://hephaestus_description/meshes/bracket_camera_module_asrc.stl"/>
</geometry>
</collision>
<visual>
<origin xyz="0.076099999999998724221 2.4702462297909733024e-15 -0.069249999999997258193" rpy="-3.141592653589793116 2.2204460492487592714e-16 1.5707963267948892305" />
<geometry>
<mesh filename="package://hephaestus_description/meshes/ds5_0390_foam_front.stl"/>
</geometry>
<material name="ds5_0390_foam_front_material">
<color rgba="0.5999999999999999778 0.5999999999999999778 0.5999999999999999778 1.0"/>
</material>
</visual>
<collision>
<origin xyz="0.076099999999998724221 2.4702462297909733024e-15 -0.069249999999997258193" rpy="-3.141592653589793116 2.2204460492487592714e-16 1.5707963267948892305" />
<geometry>
<mesh filename="package://hephaestus_description/meshes/ds5_0390_foam_front.stl"/>
</geometry>
</collision>
<visual>
<origin xyz="0.0022999999999968601117 0.012829518336757564367 -0.081146585425319633922" rpy="-1.5707963267948839015 -0.032559551067984422723 -1.5707963267949136554" />
<geometry>
<mesh filename="package://hephaestus_description/meshes/f683zz.stl"/>
</geometry>
<material name="f683zz_material">
<color rgba="0.80000000000000004441 0.80000000000000004441 0.80000000000000004441 1.0"/>
</material>
</visual>
<collision>
<origin xyz="0.0022999999999968601117 0.012829518336757564367 -0.081146585425319633922" rpy="-1.5707963267948839015 -0.032559551067984422723 -1.5707963267949136554" />
<geometry>
<mesh filename="package://hephaestus_description/meshes/f683zz.stl"/>
</geometry>
</collision>
<visual>
<origin xyz="0.002299999999996638067 -0.015999999999998903988 -0.098865164545075073788" rpy="-1.5707963267948337194 -1.6653345369383917839e-16 -1.5707963267949098807" />
<geometry>
<mesh filename="package://hephaestus_description/meshes/f683zz.stl"/>
</geometry>
<material name="f683zz_material">
<color rgba="0.80000000000000004441 0.80000000000000004441 0.80000000000000004441 1.0"/>
</material>
</visual>
<collision>
<origin xyz="0.002299999999996638067 -0.015999999999998903988 -0.098865164545075073788" rpy="-1.5707963267948337194 -1.6653345369383917839e-16 -1.5707963267949098807" />
<geometry>
<mesh filename="package://hephaestus_description/meshes/f683zz.stl"/>
</geometry>
</collision>
<visual>
<origin xyz="0.076099999999998724221 2.4702462297909733024e-15 -0.069249999999997258193" rpy="-3.141592653589793116 2.2204460492487592714e-16 1.5707963267948892305" />
<geometry>
<mesh filename="package://hephaestus_description/meshes/aux_cover_aluminum_asrc.stl"/>
</geometry>
<material name="aux_cover_aluminum_asrc_material">
<color rgba="0.5999999999999999778 0.5999999999999999778 0.5999999999999999778 1.0"/>
</material>
</visual>
<collision>
<origin xyz="0.076099999999998724221 2.4702462297909733024e-15 -0.069249999999997258193" rpy="-3.141592653589793116 2.2204460492487592714e-16 1.5707963267948892305" />
<geometry>
<mesh filename="package://hephaestus_description/meshes/aux_cover_aluminum_asrc.stl"/>
</geometry>
</collision>
<visual>
<origin xyz="-0.0089000000000021284308 0.068799837476772651712 -0.082969598141917816347" rpy="-1.5707963267949092145 0.032559551067984429662 1.5707963267948790165" />
<geometry>
<mesh filename="package://hephaestus_description/meshes/f684zz.stl"/>
</geometry>
<material name="f684zz_material">
<color rgba="0.80000000000000004441 0.80000000000000004441 0.80000000000000004441 1.0"/>
</material>
</visual>
<collision>
<origin xyz="-0.0089000000000021284308 0.068799837476772651712 -0.082969598141917816347" rpy="-1.5707963267949092145 0.032559551067984429662 1.5707963267948790165" />
<geometry>
<mesh filename="package://hephaestus_description/meshes/f684zz.stl"/>
</geometry>
</collision>
<visual>
<origin xyz="-0.0021000000000032104097 -0.012829518336753664709 -0.0811465854253195229" rpy="-1.5707963267949145436 -0.032559551067992541229 1.5707963267948898967" />
<geometry>
<mesh filename="package://hephaestus_description/meshes/f683zz.stl"/>
</geometry>
<material name="f683zz_material">
<color rgba="0.80000000000000004441 0.80000000000000004441 0.80000000000000004441 1.0"/>
</material>
</visual>
<collision>
<origin xyz="-0.0021000000000032104097 -0.012829518336753664709 -0.0811465854253195229" rpy="-1.5707963267949145436 -0.032559551067992541229 1.5707963267948898967" />
<geometry>
<mesh filename="package://hephaestus_description/meshes/f683zz.stl"/>
</geometry>
</collision>
<visual>
<origin xyz="-0.005900000000003124967 0.016000000000002310985 -0.098865164545075379099" rpy="-1.5707963267948246155 -1.3937347351366011772 -1.5707963267949169861" />
<geometry>
<mesh filename="package://hephaestus_description/meshes/inner_rod.stl"/>
</geometry>
<material name="inner_rod_material">
<color rgba="0.80000000000000004441 0.80000000000000004441 0.80000000000000004441 1.0"/>
</material>
</visual>
<collision>
<origin xyz="-0.005900000000003124967 0.016000000000002310985 -0.098865164545075379099" rpy="-1.5707963267948246155 -1.3937347351366011772 -1.5707963267949169861" />
<geometry>
<mesh filename="package://hephaestus_description/meshes/inner_rod.stl"/>
</geometry>
</collision>
<visual>
<origin xyz="-0.0079000000000026826541 0.029820508075690775607 -0.081700000000001438138" rpy="-1.5707963267948839015 -0.032559551067984422723 -1.5707963267949136554" />
<geometry>
<mesh filename="package://hephaestus_description/meshes/jaw_3_9.stl"/>
</geometry>
<material name="jaw_3_9_material">
<color rgba="0.80000000000000004441 0.80000000000000004441 0.80000000000000004441 1.0"/>
</material>
</visual>
<collision>
<origin xyz="-0.0079000000000026826541 0.029820508075690775607 -0.081700000000001438138" rpy="-1.5707963267948839015 -0.032559551067984422723 -1.5707963267949136554" />
<geometry>
<mesh filename="package://hephaestus_description/meshes/jaw_3_9.stl"/>
</geometry>
</collision>
<visual>
<origin xyz="0 0 -0.0030000000000000026645" rpy="-3.141592653589793116 -0 0" />
<geometry>
<mesh filename="package://hephaestus_description/meshes/4036_out_type_b.stl"/>
</geometry>
<material name="4036_out_type_b_material">
<color rgba="0.90196078431372550543 0.90196078431372550543 0.90196078431372550543 1.0"/>
</material>
</visual>
<collision>
<origin xyz="0 0 -0.0030000000000000026645" rpy="-3.141592653589793116 -0 0" />
<geometry>
<mesh filename="package://hephaestus_description/meshes/4036_out_type_b.stl"/>
</geometry>
</collision>
<visual>
<origin xyz="9.9999999997102406724e-05 1.4571677198205179593e-15 -0.064200000000001852807" rpy="1.570796326794896558 -1.1102230246082669052e-16 -1.5707963267949038855" />
<geometry>
<mesh filename="package://hephaestus_description/meshes/sfk601_shaft.stl"/>
</geometry>
<material name="sfk601_shaft_material">
<color rgba="0.80000000000000004441 0.80000000000000004441 0.80000000000000004441 1.0"/>
</material>
</visual>
<collision>
<origin xyz="9.9999999997102406724e-05 1.4571677198205179593e-15 -0.064200000000001852807" rpy="1.570796326794896558 -1.1102230246082669052e-16 -1.5707963267949038855" />
<geometry>
<mesh filename="package://hephaestus_description/meshes/sfk601_shaft.stl"/>
</geometry>
</collision>
<visual>
<origin xyz="0.084499999999998354205 -0.0072499999999981329379 -0.053709999999998495057" rpy="-1.5707963267949276442 -2.2895993991489004143e-15 -1.5707963267949047736" />
<geometry>
<mesh filename="package://hephaestus_description/meshes/magnet.stl"/>
</geometry>
<material name="magnet_material">
<color rgba="0.5999999999999999778 0.5999999999999999778 0.5999999999999999778 1.0"/>
</material>
</visual>
<collision>
<origin xyz="0.084499999999998354205 -0.0072499999999981329379 -0.053709999999998495057" rpy="-1.5707963267949276442 -2.2895993991489004143e-15 -1.5707963267949047736" />
<geometry>
<mesh filename="package://hephaestus_description/meshes/magnet.stl"/>
</geometry>
</collision>
<visual>
<origin xyz="-0.015900000000003022826 2.3037127760971998214e-15 -0.091700000000001738454" rpy="-1.5707963267948785724 -3.3306690738703183596e-16 -1.5707963267949038855" />
<geometry>
<mesh filename="package://hephaestus_description/meshes/gripper_base.stl"/>
</geometry>
<material name="gripper_base_material">
<color rgba="0.30196078431372547213 0.30196078431372547213 0.30196078431372547213 1.0"/>
</material>
</visual>
<collision>
<origin xyz="-0.015900000000003022826 2.3037127760971998214e-15 -0.091700000000001738454" rpy="-1.5707963267948785724 -3.3306690738703183596e-16 -1.5707963267949038855" />
<geometry>
<mesh filename="package://hephaestus_description/meshes/gripper_base.stl"/>
</geometry>
</collision>
<visual>
<origin xyz="-0.0099000000000029064751 0.015000000000003191336 -0.12020000000000216622" rpy="-1.5707963267948785724 -3.3306690738706970128e-16 -1.5707963267949038855" />
<geometry>
<mesh filename="package://hephaestus_description/meshes/shaft_top.stl"/>
</geometry>
<material name="shaft_top_material">
<color rgba="0.80000000000000004441 0.80000000000000004441 0.80000000000000004441 1.0"/>
</material>
</visual>
<collision>
<origin xyz="-0.0099000000000029064751 0.015000000000003191336 -0.12020000000000216622" rpy="-1.5707963267948785724 -3.3306690738706970128e-16 -1.5707963267949038855" />
<geometry>
<mesh filename="package://hephaestus_description/meshes/shaft_top.stl"/>
</geometry>
</collision>
<visual>
<origin xyz="0.002299999999996971134 0.016000000000002262412 -0.098865164545075046032" rpy="-1.5707963267948337194 -1.6653345369383917839e-16 -1.5707963267949098807" />
<geometry>
<mesh filename="package://hephaestus_description/meshes/f683zz.stl"/>
</geometry>
<material name="f683zz_material">
<color rgba="0.80000000000000004441 0.80000000000000004441 0.80000000000000004441 1.0"/>
</material>
</visual>
<collision>
<origin xyz="0.002299999999996971134 0.016000000000002262412 -0.098865164545075046032" rpy="-1.5707963267948337194 -1.6653345369383917839e-16 -1.5707963267949098807" />
<geometry>
<mesh filename="package://hephaestus_description/meshes/f683zz.stl"/>
</geometry>
</collision>
<visual>
<origin xyz="0.066371974754654949891 2.4841240175987877592e-15 -0.06745167244902977588" rpy="1.8226139886420693603 -3.3312877535070816752e-15 -1.5707963267949038855" />
<geometry>
<mesh filename="package://hephaestus_description/meshes/barcode.stl"/>
</geometry>
<material name="barcode_material">
<color rgba="0.5999999999999999778 0.5999999999999999778 0.5999999999999999778 1.0"/>
</material>
</visual>
<collision>
<origin xyz="0.066371974754654949891 2.4841240175987877592e-15 -0.06745167244902977588" rpy="1.8226139886420693603 -3.3312877535070816752e-15 -1.5707963267949038855" />
<geometry>
<mesh filename="package://hephaestus_description/meshes/barcode.stl"/>
</geometry>
</collision>
<visual>
<origin xyz="0.0090999999999973324449 -0.029820508075686716354 -0.08170000000000186835" rpy="-1.570796326794896558 -2.2204460492480458453e-16 -1.5707963267949038855" />
<geometry>
<mesh filename="package://hephaestus_description/meshes/f684zz.stl"/>
</geometry>
<material name="f684zz_material">
<color rgba="0.80000000000000004441 0.80000000000000004441 0.80000000000000004441 1.0"/>
</material>
</visual>
<collision>
<origin xyz="0.0090999999999973324449 -0.029820508075686716354 -0.08170000000000186835" rpy="-1.570796326794896558 -2.2204460492480458453e-16 -1.5707963267949038855" />
<geometry>
<mesh filename="package://hephaestus_description/meshes/f684zz.stl"/>
</geometry>
</collision>
<visual>
<origin xyz="0.0090999999999966663111 -0.067107039954211439303 -0.13494203734336063238" rpy="-1.5707963267948785724 0.032559551067991444884 -1.5707963267949036634" />
<geometry>
<mesh filename="package://hephaestus_description/meshes/f684zz.stl"/>
</geometry>
<material name="f684zz_material">
<color rgba="0.80000000000000004441 0.80000000000000004441 0.80000000000000004441 1.0"/>
</material>
</visual>
<collision>
<origin xyz="0.0090999999999966663111 -0.067107039954211439303 -0.13494203734336063238" rpy="-1.5707963267948785724 0.032559551067991444884 -1.5707963267949036634" />
<geometry>
<mesh filename="package://hephaestus_description/meshes/f684zz.stl"/>
</geometry>
</collision>
<visual>
<origin xyz="9.9999999999544897378e-05 5.1347814888913489995e-16 -0.016999999999999775707" rpy="3.141592653589793116 3.5971225998084718786e-14 8.7090243936399183155e-28" />
<geometry>
<mesh filename="package://hephaestus_description/meshes/can_plugger.stl"/>
</geometry>
<material name="can_plugger_material">
<color rgba="1 1 1 1.0"/>
</material>
</visual>
<collision>
<origin xyz="9.9999999999544897378e-05 5.1347814888913489995e-16 -0.016999999999999775707" rpy="3.141592653589793116 3.5971225998084718786e-14 8.7090243936399183155e-28" />
<geometry>
<mesh filename="package://hephaestus_description/meshes/can_plugger.stl"/>
</geometry>
</collision>
<visual>
<origin xyz="0.076099999999998169109 -0.036099999999997856026 -0.05337499999999877065" rpy="1.5707963267949227593 -3.6655050507481515617e-14 -3.1415926535897518157" />
<geometry>
<mesh filename="package://hephaestus_description/meshes/boss-extrude4.stl"/>
</geometry>
<material name="boss-extrude4_material">
<color rgba="0.5999999999999999778 0.5999999999999999778 0.5999999999999999778 1.0"/>
</material>
</visual>
<collision>
<origin xyz="0.076099999999998169109 -0.036099999999997856026 -0.05337499999999877065" rpy="1.5707963267949227593 -3.6655050507481515617e-14 -3.1415926535897518157" />
<geometry>
<mesh filename="package://hephaestus_description/meshes/boss-extrude4.stl"/>
</geometry>
</collision>
<visual>
<origin xyz="0.076099999999998724221 2.4702462297909733024e-15 -0.069249999999997258193" rpy="-3.141592653589793116 2.2204460492487592714e-16 1.5707963267948892305" />
<geometry>
<mesh filename="package://hephaestus_description/meshes/ds5_0390_label_front_module.stl"/>
</geometry>
<material name="ds5_0390_label_front_module_material">
<color rgba="0.5999999999999999778 0.5999999999999999778 0.5999999999999999778 1.0"/>
</material>
</visual>
<collision>
<origin xyz="0.076099999999998724221 2.4702462297909733024e-15 -0.069249999999997258193" rpy="-3.141592653589793116 2.2204460492487592714e-16 1.5707963267948892305" />
<geometry>
<mesh filename="package://hephaestus_description/meshes/ds5_0390_label_front_module.stl"/>
</geometry>
</collision>
<inertial>
<origin xyz="0.01050234323219068934 -0.00055620392690092549347 -0.061517850063038802266" rpy="0 0 0"/>
<mass value="0.9115946721229465366" />
<inertia ixx="0.0021290616099294799868" ixy="3.3276059801469031743e-05"  ixz="-5.573906629881878697e-05" iyy="0.0021942735178800713489" iyz="4.0743276561670701047e-06" izz="0.0015463931344147530556" />
</inertial>
</link>

<joint name="j6" type="revolute">
<origin xyz="-4.1633363423443370266e-17 0.027499999999999531763 -0.040499999999995317523" rpy="1.5707963267949276442 1.5707963267948825692 0" />
<parent link="link6" />
<child link="gripper" />
<axis xyz="0 0 -1"/>
<limit effort="1" velocity="20" lower="-3.141592653589793116" upper="3.141592653589793116"/>
<joint_properties friction="0.0"/>
</joint>

<joint name="j5" type="revolute">
<origin xyz="-0.027499999999995528022 8.9672221510033413429e-16 -0.040500000000003207046" rpy="3.1415926535897913396 -1.5707963267948412689 0" />
<parent link="link5" />
<child link="link6" />
<axis xyz="0 0 -1"/>
<limit effort="1" velocity="20" lower="-3.141592653589793116" upper="3.141592653589793116"/>
<joint_properties friction="0.0"/>
</joint>

<joint name="j4" type="revolute">
<origin xyz="-8.3315527688767367743e-15 0.27900000000001856648 -0.014500000000024985958" rpy="-3.1415926535897913396 -1.0262745653896959069e-13 -1.5707963267948636954" />
<parent link="link4" />
<child link="link5" />
<axis xyz="0 0 -1"/>
<limit effort="1" velocity="20" lower="-3.141592653589793116" upper="3.141592653589793116"/>
<joint_properties friction="0.0"/>
</joint>

<joint name="j3" type="revolute">
<origin xyz="4.2971980656064264533e-14 0.27900000000004948619 6.3837823915946501074e-15" rpy="-3.1415926535896732119 -2.2411157873958029012e-15 3.1415926535896590011" />
<parent link="link3" />
<child link="link4" />
<axis xyz="0 0 -1"/>
<limit effort="1" velocity="20" lower="-3.141592653589793116" upper="3.141592653589793116"/>
<joint_properties friction="0.0"/>
</joint>

<joint name="j2" type="revolute">
<origin xyz="6.5317576732167981012e-18 -0.049999999999999746036 -0.061000000000001497469" rpy="-1.5707963267948974462 1.1149798816950092785e-13 2.7183456743031896713e-16" />
<parent link="link2" />
<child link="link3" />
<axis xyz="0 0 1"/>
<limit effort="1" velocity="20" lower="-3.141592653589793116" upper="3.141592653589793116"/>
<joint_properties friction="0.0"/>
</joint>

<joint name="j1" type="revolute">
<origin xyz="1.2094840050751841157e-30 -3.330669073883665004e-19 0.0030000000000000000625" rpy="-3.1415926535897922278 -2.0432878948499990369e-16 1.5707963267949001107" />
<parent link="link1" />
<child link="link2" />
<axis xyz="0 0 1"/>
<limit effort="1" velocity="20" lower="-3.141592653589793116" upper="3.141592653589793116"/>
<joint_properties friction="0.0"/>
</joint>


</robot>
